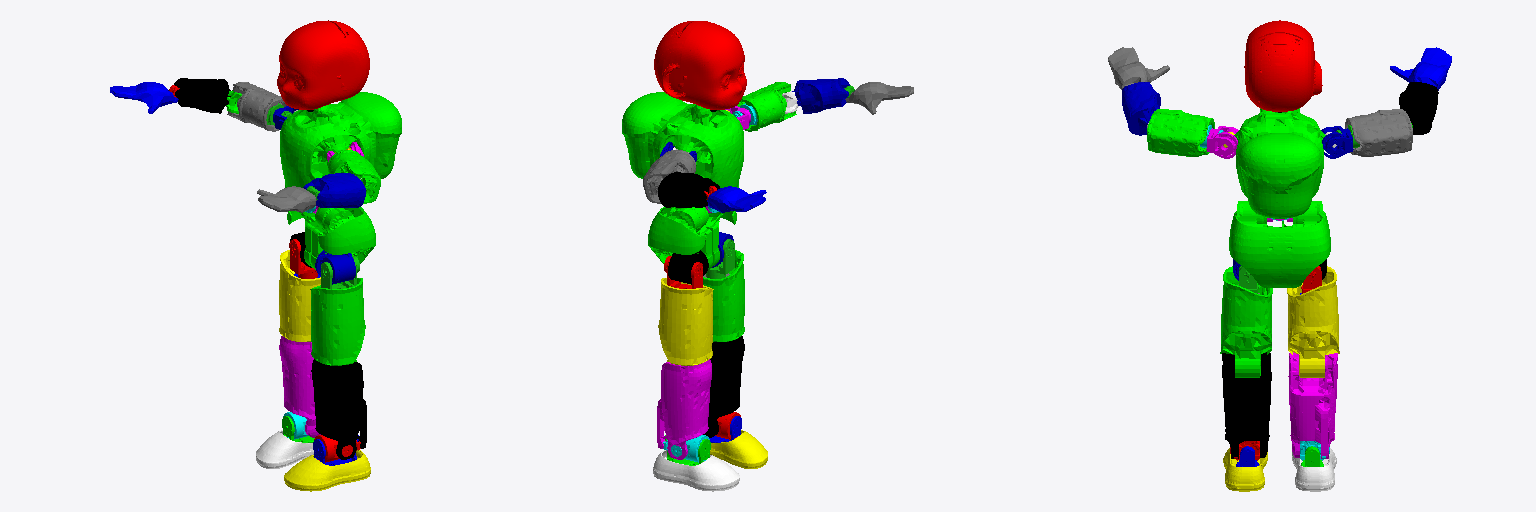
--- What the picture shows (computed from the rendered views, not written in the file) ---
The picture shows the robot from 3 angles, left to right: view 1: azimuth 30°, elevation 25°; view 2: azimuth 150°, elevation 25°; view 3: azimuth 270°, elevation 25°; orthographic projection.
Model iCub with 204 links and 203 joints (32 revolute, 171 fixed), rooted at base_link, posed joints at zero except 4 at the middle of their limits (r_shoulder_roll = 1.58, r_elbow = 1.06, l_shoulder_roll = 1.58, l_elbow = 1.06).
Links seen in each view (by area): view 1: chest, head, l_lower_leg, l_upper_leg, root_link, r_lower_leg, r_upper_leg, l_foot, l_forearm, r_forearm, r_upper_arm, r_foot (+5 smaller); view 2: chest, head, r_lower_leg, r_upper_leg, root_link, l_lower_leg, l_upper_leg, r_foot, r_forearm, l_forearm, l_upper_arm, l_foot (+5 smaller); view 3: chest, root_link, head, l_upper_leg, r_upper_leg, l_lower_leg, r_lower_leg, r_upper_arm, l_upper_arm, r_forearm, l_forearm, l_hand (+5 smaller).
Link boxes in pixels (left/top/right/bottom): chest: left=280, top=92, right=401, bottom=187; head: left=277, top=20, right=369, bottom=109; l_lower_leg: left=311, top=359, right=366, bottom=459; l_upper_leg: left=310, top=278, right=365, bottom=365; root_link: left=287, top=207, right=375, bottom=269; r_lower_leg: left=279, top=336, right=320, bottom=437; r_upper_leg: left=279, top=250, right=320, bottom=341; l_foot: left=284, top=450, right=370, bottom=491; l_forearm: left=303, top=173, right=365, bottom=207; r_forearm: left=174, top=78, right=230, bottom=113; r_upper_arm: left=227, top=82, right=286, bottom=131; r_foot: left=256, top=430, right=313, bottom=468; chest: left=622, top=92, right=743, bottom=187; head: left=654, top=21, right=746, bottom=109; r_lower_leg: left=657, top=359, right=711, bottom=459; r_upper_leg: left=658, top=278, right=713, bottom=365; root_link: left=648, top=207, right=736, bottom=269; l_lower_leg: left=703, top=336, right=744, bottom=437; l_upper_leg: left=703, top=250, right=744, bottom=341; r_foot: left=653, top=450, right=739, bottom=491; r_forearm: left=658, top=172, right=719, bottom=207; l_forearm: left=792, top=78, right=849, bottom=113; l_upper_arm: left=737, top=82, right=796, bottom=131; l_foot: left=710, top=430, right=767, bottom=468; chest: left=1234, top=108, right=1325, bottom=218; root_link: left=1229, top=201, right=1330, bottom=287; head: left=1244, top=20, right=1322, bottom=111; l_upper_leg: left=1220, top=266, right=1272, bottom=377; r_upper_leg: left=1287, top=266, right=1339, bottom=377; l_lower_leg: left=1222, top=352, right=1271, bottom=458; r_lower_leg: left=1288, top=352, right=1337, bottom=458; r_upper_arm: left=1345, top=109, right=1412, bottom=156; l_upper_arm: left=1147, top=109, right=1214, bottom=156; r_forearm: left=1399, top=82, right=1438, bottom=134; l_forearm: left=1122, top=82, right=1160, bottom=135; l_hand: left=1108, top=47, right=1169, bottom=89.
Size in the robot's own frame: 0.5414 by 0.749 by 1.08 metres.
Meshes: 39 distinct files referenced, 38 mesh visuals loaded (38 binary STL); not drawn: 1 (reference not matched to a file when rendering).

robot.urdf — iCub:
<robot name="iCub">
  <link name="root_link">
    <inertial>
      <origin xyz="0.0248821 0.000103947 -0.0440806" rpy="1.57079632679 0 -1.57079632679"/>
      <mass value="5.09143"/>
      <inertia ixx="0.0139679" ixy="-5.93488e-06" ixz="-1.55458e-05" iyy="0.0202112" iyz="-0.00170968" izz="0.0249124"/>
    </inertial>
    <visual>
      <origin xyz="-0.0364 0 0.032" rpy="1.57079632679 0 -1.57079632679"/>
      <geometry>
        <mesh filename="package://iCub/meshes/simmechanics/sim_sea_2-5_root_link_prt-binary.stl" scale="0.001 0.001 0.001"/>
      </geometry>
      <material name="green">
        <color rgba="0 1 0 1"/>
      </material>
    </visual>
    <collision>
      <origin xyz="-0.0364 0 0.032" rpy="1.57079632679 0 -1.57079632679"/>
      <geometry>
        <mesh filename="package://iCub/meshes/simmechanics/sim_sea_2-5_root_link_prt-binary.stl" scale="0.001 0.001 0.001"/>
      </geometry>
    </collision>
  </link>
  <link name="r_hip_1">
    <inertial>
      <origin xyz="-0.0005145 -0.0380753 -7.1e-05" rpy="1.57079632679 0 1.57079632679"/>
      <mass value="0.919978"/>
      <inertia ixx="0.000404268" ixy="-1.26852e-06" ixz="1.11055e-06" iyy="0.000574741" iyz="-7.69474e-07" izz="0.000580025"/>
    </inertial>
    <visual>
      <origin xyz="0.0428515000001 0.026 0.151913" rpy="1.57079632679 0 1.57079632679"/>
      <geometry>
        <mesh filename="package://iCub/meshes/simmechanics/sim_sea_2-5_r_hip_1_prt-binary.stl" scale="0.001 0.001 0.001"/>
      </geometry>
      <material name="black">
        <color rgba="0 0 0 1"/>
      </material>
    </visual>
    <collision>
      <origin xyz="0.0428515000001 0.026 0.151913" rpy="1.57079632679 0 1.57079632679"/>
      <geometry>
        <mesh filename="package://iCub/meshes/simmechanics/sim_sea_2-5_r_hip_1_prt-binary.stl" scale="0.001 0.001 0.001"/>
      </geometry>
    </collision>
  </link>
  <joint name="r_hip_pitch" type="revolute">
    <origin xyz="0.0064515 0.026 -0.119913" rpy="0 0 -3.14159265359"/>
    <axis xyz="-2.22044604925e-16 -1.0 0.0"/>
    <parent link="root_link"/>
    <child link="r_hip_1"/>
    <limit effort="55.5" lower="-0.785398163397" upper="2.33874119767" velocity="5.1"/>
    <dynamics damping="1.0" friction="0.0"/>
  </joint>
  <link name="r_hip_2">
    <inertial>
      <origin xyz="-0.0013754 3.49999999998e-06 -0.044282" rpy="1.57079632679 0 1.57079632679"/>
      <mass value="0.418361"/>
      <inertia ixx="0.000487866" ixy="-2.70231e-07" ixz="1.85338e-07" iyy="0.000286099" iyz="1.22793e-05" izz="0.000315174"/>
    </inertial>
    <visual>
      <origin xyz="0.0428514998094 0.0701 0.151913" rpy="1.57079632679 0 1.57079632679"/>
      <geometry>
        <mesh filename="package://iCub/meshes/simmechanics/sim_sea_2-5_r_hip_2_prt-binary.stl" scale="0.001 0.001 0.001"/>
      </geometry>
      <material name="red">
        <color rgba="1 0 0 1"/>
      </material>
    </visual>
    <collision>
      <origin xyz="0.0428514998094 0.0701 0.151913" rpy="1.57079632679 0 1.57079632679"/>
      <geometry>
        <mesh filename="package://iCub/meshes/simmechanics/sim_sea_2-5_r_hip_2_prt-binary.stl" scale="0.001 0.001 0.001"/>
      </geometry>
    </collision>
  </link>

  <joint name="r_hip_roll" type="revolute">
    <origin xyz="0 -0.0441 0" rpy="0 0 0"/>
    <axis xyz="-1.0 0.0 -2.22044604925e-16"/>
    <parent link="r_hip_1"/>
    <child link="r_hip_2"/>
    <!-- When using the real robot on pole, use the following value for lower limit: lower="0.261799000003794" -->
    <limit effort="37.0" lower="-0.349065850399" upper="2.09439510239" velocity="7.64"/>
    <dynamics damping="1.0" friction="0.0"/>
  </joint>
  <link name="r_hip_3">
    <inertial>
      <origin xyz="-0.000123 -0.0002823 0.008718" rpy="-1.57079632679 0 -1.57079632679"/>
      <mass value="0.126212"/>
      <inertia ixx="0.01" ixy="2.67901e-07" ixz="-4.41463e-09" iyy="0.01" iyz="3.32338e-08" izz="0.01"/>
    </inertial>
    <visual>
      <origin xyz="0.0437089998094 -0.0701 -0.226213" rpy="-1.57079632679 0 -1.57079632679"/>
      <geometry>
        <mesh filename="package://iCub/meshes/simmechanics/sim_sea_2-5_r_upper_thigh_prt-binary.stl" scale="0.001 0.001 0.001"/>
      </geometry>
      <material name="blue">
        <color rgba="0 0 1 1"/>
      </material>
    </visual>
    <collision>
      <origin xyz="0.0437089998094 -0.0701 -0.226213" rpy="-1.57079632679 0 -1.57079632679"/>
      <geometry>
        <mesh filename="package://iCub/meshes/simmechanics/sim_sea_2-5_r_upper_thigh_prt-binary.stl" scale="0.001 0.001 0.001"/>
      </geometry>
    </collision>
  </link>
  <joint name="r_leg_ft_sensor" type="fixed">
    <origin xyz="-0.0008575 0 -0.0743" rpy="3.14159265359 0 0"/>
    <parent link="r_hip_2"/>
    <child link="r_hip_3"/>
    <dynamics damping="0.1"/>
  </joint>
  <link name="r_upper_leg">
    <inertial>
      <origin xyz="0.0033999 -2.91e-05 -0.078954" rpy="1.57079632679 0 1.57079632679"/>
      <mass value="1.8035"/>
      <inertia ixx="0.00647751422999" ixy="0.000129579429588" ixz="5.48205094739e-06" iyy="0.0014593786411" iyz="-0.000136613086875" izz="0.00646720823813"/>
    </inertial>
    <visual>
      <origin xyz="0.0437089998094 0.0701 0.240813" rpy="1.57079632679 0 1.57079632679"/>
      <geometry>
        <mesh filename="package://iCub/meshes/simmechanics/sim_sea_2-5_r_thigh_prt-binary.stl" scale="0.001 0.001 0.001"/>
      </geometry>
      <material name="yellow">
        <color rgba="1 1 0 1"/>
      </material>
    </visual>
    <collision>
      <origin xyz="0.0437089998094 0.0701 0.240813" rpy="1.57079632679 0 1.57079632679"/>
      <geometry>
        <mesh filename="package://iCub/meshes/simmechanics/sim_sea_2-5_r_thigh_prt-binary.stl" scale="0.001 0.001 0.001"/>
      </geometry>
    </collision>
  </link>
  <joint name="r_hip_yaw" type="revolute">
    <origin xyz="0 0 0.0144" rpy="-3.14159265359 0 0"/>
    <axis xyz="0.0 -2.22044604925e-16 -1.0"/>
    <parent link="r_hip_3"/>
    <child link="r_upper_leg"/>
    <limit effort="37.0" lower="-1.3962634016" upper="1.3962634016" velocity="7.64"/>
    <dynamics damping="1.0" friction="0.0"/>
  </joint>
  <link name="r_upper_leg_back_contact"/>
  <joint name="r_upper_leg_back_contact_fixed_joint" type="fixed">
    <origin xyz="-0.0511999 0 0.0146" rpy="0 1.57079632679 0"/>
    <parent link="r_upper_leg"/>
    <child link="r_upper_leg_back_contact"/>
    <dynamics damping="0.1"/>
  </joint>
  <link name="r_upper_leg_dh_frame"/>
  <joint name="r_upper_leg_dh_frame_fixed_joint" type="fixed">
    <origin xyz="0 0 -0.145825" rpy="1.57079632679 0 0"/>
    <parent link="r_upper_leg"/>
    <child link="r_upper_leg_dh_frame"/>
    <dynamics damping="0.1"/>
  </joint>
  <link name="r_lower_leg">
    <inertial>
      <origin xyz="0.0012363 -0.0035131 -0.088794" rpy="1.57079632679 0 1.57079632679"/>
      <mass value="1.472"/>
      <inertia ixx="0.00423993167478" ixy="0.000228814548854" ixz="-5.55646459453e-05" iyy="0.00152095043447" iyz="-0.000264132979243" izz="0.00457358584206"/>
    </inertial>
    <visual>
      <origin xyz="0.0437089998094 0.0701000001907 0.386638" rpy="1.57079632679 0 1.57079632679"/>
      <geometry>
        <mesh filename="package://iCub/meshes/simmechanics/sim_sea_2-5_r_shank_prt-binary.stl" scale="0.001 0.001 0.001"/>
      </geometry>
      <material name="pink">
        <color rgba="1 0 1 1"/>
      </material>
    </visual>
    <collision>
      <origin xyz="0.0437089998094 0.0701000001907 0.386638" rpy="1.57079632679 0 1.57079632679"/>
      <geometry>
        <mesh filename="package://iCub/meshes/simmechanics/sim_sea_2-5_r_shank_prt-binary.stl" scale="0.001 0.001 0.001"/>
      </geometry>
    </collision>
  </link>
  <joint name="r_knee" type="revolute">
    <origin xyz="0 0 -0.145825" rpy="0 0 0"/>
    <axis xyz="-2.22044604925e-16 -1.0 0.0"/>
    <parent link="r_upper_leg"/>
    <child link="r_lower_leg"/>
    <limit effort="37.0" lower="-2.16420827247" upper="0.0698131700798" velocity="7.64"/>
    <dynamics damping="1.0" friction="0.0"/>
  </joint>
  <link name="r_lower_leg_skin_0"/>
  <joint name="r_lower_leg_skin_0_fixed_joint" type="fixed">
    <origin xyz="0.0544117 -0.031214 -0.002634" rpy="2.09173809157e-06 -1.41530676247 2.48648458622"/>
    <parent link="r_lower_leg"/>
    <child link="r_lower_leg_skin_0"/>
    <dynamics damping="0.1"/>
  </joint>
  <link name="r_lower_leg_skin_3"/>
  <joint name="r_lower_leg_skin_3_fixed_joint" type="fixed">
    <origin xyz="0.05157878 0.0304205 -0.002843" rpy="0 -1.42951054083 -2.30391484186"/>
    <parent link="r_lower_leg"/>
    <child link="r_lower_leg_skin_3"/>
    <dynamics damping="0.1"/>
  </joint>
  <link name="r_lower_leg_skin_4"/>
  <joint name="r_lower_leg_skin_4_fixed_joint" type="fixed">
    <origin xyz="0.0583103 0.0167836 0.007272" rpy="-2.98636361519e-07 -1.25636748876 -2.75892380087"/>
    <parent link="r_lower_leg"/>
    <child link="r_lower_leg_skin_4"/>
    <dynamics damping="0.1"/>
  </joint>
  <link name="r_lower_leg_skin_5"/>
  <joint name="r_lower_leg_skin_5_fixed_joint" type="fixed">
    <origin xyz="0.0636503 0.0003094 -0.001972" rpy="0 -1.38652215068 -3.14147169807"/>
    <parent link="r_lower_leg"/>
    <child link="r_lower_leg_skin_5"/>
    <dynamics damping="0.1"/>
  </joint>
  <link name="r_lower_leg_skin_6"/>
  <joint name="r_lower_leg_skin_6_fixed_joint" type="fixed">
    <origin xyz="0.05208552 0.0304434 -0.022149" rpy="-3.14158927953 -1.46785123411 0.837492889077"/>
    <parent link="r_lower_leg"/>
    <child link="r_lower_leg_skin_6"/>
    <dynamics damping="0.1"/>
  </joint>
  <link name="r_lower_leg_skin_9"/>
  <joint name="r_lower_leg_skin_9_fixed_joint" type="fixed">
    <origin xyz="0.0598214 0.0167973 -0.030962" rpy="-3.14159202356 -1.34224755325 0.379294477718"/>
    <parent link="r_lower_leg"/>
    <child link="r_lower_leg_skin_9"/>
    <dynamics damping="0.1"/>
  </joint>
  <link name="r_lower_leg_skin_10"/>
  <joint name="r_lower_leg_skin_10_fixed_joint" type="fixed">
    <origin xyz="0.0644607 0.0003424 -0.021205" rpy="3.14159265355 -1.47095803541 0.000430021675261"/>
    <parent link="r_lower_leg"/>
    <child link="r_lower_leg_skin_10"/>
    <dynamics damping="0.1"/>
  </joint>
  <link name="r_lower_leg_skin_11"/>
  <joint name="r_lower_leg_skin_11_fixed_joint" type="fixed">
    <origin xyz="0.0607108 -0.0160916 -0.030885" rpy="-3.14159218252 -1.3281180406 -0.27213836788"/>
    <parent link="r_lower_leg"/>
    <child link="r_lower_leg_skin_11"/>
    <dynamics damping="0.1"/>
  </joint>
  <link name="r_lower_leg_skin_14"/>
  <joint name="r_lower_leg_skin_14_fixed_joint" type="fixed">
    <origin xyz="0.0550477 -0.031176 -0.0219" rpy="-3.14159181885 -1.46502735635 -0.654033407167"/>
    <parent link="r_lower_leg"/>
    <child link="r_lower_leg_skin_14"/>
    <dynamics damping="0.1"/>
  </joint>
  <link name="r_lower_leg_skin_15"/>
  <joint name="r_lower_leg_skin_15_fixed_joint" type="fixed">
    <origin xyz="0.0591708 -0.0161788 0.007243" rpy="4.27484256729e-07 -1.25203633076 2.86798859471"/>
    <parent link="r_lower_leg"/>
    <child link="r_lower_leg_skin_15"/>
    <dynamics damping="0.1"/>
  </joint>
  <link name="r_lower_leg_skin_16"/>
  <joint name="r_lower_leg_skin_16_fixed_joint" type="fixed">
    <origin xyz="0.0272875 -0.050287 -0.004549" rpy="1.33075915123e-05 -1.53260853515 1.96280242835"/>
    <parent link="r_lower_leg"/>
    <child link="r_lower_leg_skin_16"/>
    <dynamics damping="0.1"/>
  </joint>
  <link name="r_lower_leg_skin_17"/>
  <joint name="r_lower_leg_skin_17_fixed_joint" type="fixed">
    <origin xyz="0.027875 -0.050312 -0.023882" rpy="-3.1415645262 -1.56366240237 -1.18022508756"/>
    <parent link="r_lower_leg"/>
    <child link="r_lower_leg_skin_17"/>
    <dynamics damping="0.1"/>
  </joint>
  <link name="r_lower_leg_skin_19"/>
  <joint name="r_lower_leg_skin_19_fixed_joint" type="fixed">
    <origin xyz="0.0357534 0.0410628 0.006065" rpy="-8.90877717426e-07 -1.43498696978 -2.15863618017"/>
    <parent link="r_lower_leg"/>
    <child link="r_lower_leg_skin_19"/>
    <dynamics damping="0.1"/>
  </joint>
  <link name="r_lower_leg_skin_20"/>
  <joint name="r_lower_leg_skin_20_fixed_joint" type="fixed">
    <origin xyz="0.0234419 0.0479908 -0.004952" rpy="-3.20556549428e-06 -1.50015513031 -1.86755092413"/>
    <parent link="r_lower_leg"/>
    <child link="r_lower_leg_skin_20"/>
    <dynamics damping="0.1"/>
  </joint>
  <link name="r_lower_leg_skin_21"/>
  <joint name="r_lower_leg_skin_21_fixed_joint" type="fixed">
    <origin xyz="0.0242704 0.0485378 -0.024277" rpy="2.29671149558e-05 -1.55545513881 -1.87411972316"/>
    <parent link="r_lower_leg"/>
    <child link="r_lower_leg_skin_21"/>
    <dynamics damping="0.1"/>
  </joint>
  <link name="r_lower_leg_skin_28"/>
  <joint name="r_lower_leg_skin_28_fixed_joint" type="fixed">
    <origin xyz="0.04087215 -0.04244 -0.032756" rpy="3.14158088865 -1.52252462169 -0.929681029763"/>
    <parent link="r_lower_leg"/>
    <child link="r_lower_leg_skin_28"/>
    <dynamics damping="0.1"/>
  </joint>
  <link name="r_lower_leg_skin_29"/>
  <joint name="r_lower_leg_skin_29_fixed_joint" type="fixed">
    <origin xyz="0.03846637 -0.043516 -0.05242" rpy="3.14158017044 -1.53429841563 -0.915436346631"/>
    <parent link="r_lower_leg"/>
    <child link="r_lower_leg_skin_29"/>
    <dynamics damping="0.1"/>
  </joint>
  <link name="r_lower_leg_skin_31"/>
  <joint name="r_lower_leg_skin_31_fixed_joint" type="fixed">
    <origin xyz="0.03914638 -0.042271 0.006327" rpy="-6.58381747139e-07 -1.4186494462 2.20853032986"/>
    <parent link="r_lower_leg"/>
    <child link="r_lower_leg_skin_31"/>
    <dynamics damping="0.1"/>
  </joint>
  <link name="r_lower_leg_skin_32"/>
  <joint name="r_lower_leg_skin_32_fixed_joint" type="fixed">
    <origin xyz="0.04598301 0.0325847 -0.080733" rpy="-3.14159014988 -1.52238289798 0.645940380887"/>
    <parent link="r_lower_leg"/>
    <child link="r_lower_leg_skin_32"/>
    <dynamics damping="0.1"/>
  </joint>
  <link name="r_lower_leg_skin_35"/>
  <joint name="r_lower_leg_skin_35_fixed_joint" type="fixed">
    <origin xyz="0.04774866 -0.031232 -0.080113" rpy="-3.14158668275 -1.51758467332 -0.541532486468"/>
    <parent link="r_lower_leg"/>
    <child link="r_lower_leg_skin_35"/>
    <dynamics damping="0.1"/>
  </joint>
  <link name="r_lower_leg_skin_36"/>
  <joint name="r_lower_leg_skin_36_fixed_joint" type="fixed">
    <origin xyz="0.05322409 -0.0156018 -0.088362" rpy="-3.14159034144 -1.51587265281 -0.20740733566"/>
    <parent link="r_lower_leg"/>
    <child link="r_lower_leg_skin_36"/>
    <dynamics damping="0.1"/>
  </joint>
  <link name="r_lower_leg_skin_37"/>
  <joint name="r_lower_leg_skin_37_fixed_joint" type="fixed">
    <origin xyz="0.0552572 0.0009644 -0.078318" rpy="-3.14158180452 -1.52318336898 0.00752450583063"/>
    <parent link="r_lower_leg"/>
    <child link="r_lower_leg_skin_37"/>
    <dynamics damping="0.1"/>
  </joint>
  <link name="r_lower_leg_skin_38"/>
  <joint name="r_lower_leg_skin_38_fixed_joint" type="fixed">
    <origin xyz="0.04880467 -0.031263 -0.060757" rpy="3.14158665199 -1.5157299554 -0.54215359959"/>
    <parent link="r_lower_leg"/>
    <child link="r_lower_leg_skin_38"/>
    <dynamics damping="0.1"/>
  </joint>
  <link name="r_lower_leg_skin_41"/>
  <joint name="r_lower_leg_skin_41_fixed_joint" type="fixed">
    <origin xyz="0.0566009 -0.0159129 -0.049854" rpy="-3.14159198825 -1.40681343597 -0.248233089413"/>
    <parent link="r_lower_leg"/>
    <child link="r_lower_leg_skin_41"/>
    <dynamics damping="0.1"/>
  </joint>
  <link name="r_lower_leg_skin_42"/>
  <joint name="r_lower_leg_skin_42_fixed_joint" type="fixed">
    <origin xyz="0.0570106 0.0007962 -0.05908" rpy="3.14158970239 -1.43524750416 0.00687943651504"/>
    <parent link="r_lower_leg"/>
    <child link="r_lower_leg_skin_42"/>
    <dynamics damping="0.1"/>
  </joint>
  <link name="r_lower_leg_skin_43"/>
  <joint name="r_lower_leg_skin_43_fixed_joint" type="fixed">
    <origin xyz="0.04712542 0.0323653 -0.061362" rpy="-3.14159136621 -1.53843038237 0.624217523667"/>
    <parent link="r_lower_leg"/>
    <child link="r_lower_leg_skin_43"/>
    <dynamics damping="0.1"/>
  </joint>
  <link name="r_lower_leg_skin_46"/>
  <joint name="r_lower_leg_skin_46_fixed_joint" type="fixed">
    <origin xyz="0.0558156 0.0172164 -0.05018" rpy="-3.14158987809 -1.42759881603 0.325607710876"/>
    <parent link="r_lower_leg"/>
    <child link="r_lower_leg_skin_46"/>
    <dynamics damping="0.1"/>
  </joint>
  <link name="r_lower_leg_skin_47"/>
  <joint name="r_lower_leg_skin_47_fixed_joint" type="fixed">
    <origin xyz="0.05264163 0.0176389 -0.08886" rpy="3.14158963519 -1.51690559406 0.262640425058"/>
    <parent link="r_lower_leg"/>
    <child link="r_lower_leg_skin_47"/>
    <dynamics damping="0.1"/>
  </joint>
  <link name="r_lower_leg_skin_49"/>
  <joint name="r_lower_leg_skin_49_fixed_joint" type="fixed">
    <origin xyz="0.04113137 0.0324385 -0.138859" rpy="-3.14158934751 -1.48996135695 0.729763592113"/>
    <parent link="r_lower_leg"/>
    <child link="r_lower_leg_skin_49"/>
    <dynamics damping="0.1"/>
  </joint>
  <link name="r_lower_leg_skin_50"/>
  <joint name="r_lower_leg_skin_50_fixed_joint" type="fixed">
    <origin xyz="0.043016947 0.0325273 -0.119469" rpy="3.14159069596 -1.49900732636 0.695784020081"/>
    <parent link="r_lower_leg"/>
    <child link="r_lower_leg_skin_50"/>
    <dynamics damping="0.1"/>
  </joint>
  <link name="r_lower_leg_skin_51"/>
  <joint name="r_lower_leg_skin_51_fixed_joint" type="fixed">
    <origin xyz="0.05141583 0.017759 -0.108206" rpy="-3.14158890179 -1.50628475717 0.272079935713"/>
    <parent link="r_lower_leg"/>
    <child link="r_lower_leg_skin_51"/>
    <dynamics damping="0.1"/>
  </joint>
  <link name="r_lower_leg_skin_52"/>
  <joint name="r_lower_leg_skin_52_fixed_joint" type="fixed">
    <origin xyz="0.05299832 0.0012664 -0.116895" rpy="-3.14159164042 -1.50318674421 0.0108717260994"/>
    <parent link="r_lower_leg"/>
    <child link="r_lower_leg_skin_52"/>
    <dynamics damping="0.1"/>
  </joint>
  <link name="r_lower_leg_skin_53"/>
  <joint name="r_lower_leg_skin_53_fixed_joint" type="fixed">
    <origin xyz="0.05207312 -0.0154339 -0.107654" rpy="3.14159063987 -1.50595307447 -0.211407322892"/>
    <parent link="r_lower_leg"/>
    <child link="r_lower_leg_skin_53"/>
    <dynamics damping="0.1"/>
  </joint>
  <link name="r_lower_leg_skin_54"/>
  <joint name="r_lower_leg_skin_54_fixed_joint" type="fixed">
    <origin xyz="0.04512708 -0.030749 -0.118787" rpy="3.14158825193 -1.49745145571 -0.575115374473"/>
    <parent link="r_lower_leg"/>
    <child link="r_lower_leg_skin_54"/>
    <dynamics damping="0.1"/>
  </joint>
  <link name="r_lower_leg_skin_55"/>
  <joint name="r_lower_leg_skin_55_fixed_joint" type="fixed">
    <origin xyz="0.043502663 -0.030489 -0.138143" rpy="3.14158906486 -1.48995787038 -0.597219943789"/>
    <parent link="r_lower_leg"/>
    <child link="r_lower_leg_skin_55"/>
    <dynamics damping="0.1"/>
  </joint>
  <link name="r_lower_leg_skin_56"/>
  <joint name="r_lower_leg_skin_56_fixed_joint" type="fixed">
    <origin xyz="0.04926839 -0.015121 -0.146218" rpy="-3.14158920404 -1.49124819828 -0.2234844764"/>
    <parent link="r_lower_leg"/>
    <child link="r_lower_leg_skin_56"/>
    <dynamics damping="0.1"/>
  </joint>
  <link name="r_lower_leg_skin_60"/>
  <joint name="r_lower_leg_skin_60_fixed_joint" type="fixed">
    <origin xyz="0.04836967 0.018056 -0.146938" rpy="-3.14159173337 -1.48985968527 0.302951871954"/>
    <parent link="r_lower_leg"/>
    <child link="r_lower_leg_skin_60"/>
    <dynamics damping="0.1"/>
  </joint>
  <link name="r_lower_leg_skin_61"/>
  <joint name="r_lower_leg_skin_61_fixed_joint" type="fixed">
    <origin xyz="0.05161952 0.0014266 -0.136169" rpy="-3.14159100925 -1.49602097086 0.0132014275205"/>
    <parent link="r_lower_leg"/>
    <child link="r_lower_leg_skin_61"/>
    <dynamics damping="0.1"/>
  </joint>
  <link name="r_ankle_1">
    <inertial>
      <origin xyz="0.0151436 -0.0008686 4.2e-05" rpy="1.57079632679 0 1.57079632679"/>
      <mass value="0.6803"/>
      <inertia ixx="0.000404618848932" ixy="7.49819286945e-07" ixz="-3.01349467691e-05" iyy="0.000448633654664" iyz="2.5726697409e-06" izz="0.000308235939139"/>
    </inertial>
    <visual>
      <origin xyz="0.0437089998094 0.0701000001907 0.587138" rpy="1.57079632679 0 1.57079632679"/>
      <geometry>
        <mesh filename="package://iCub/meshes/simmechanics/sim_sea_2-5_r_ankle_prt-binary.stl" scale="0.001 0.001 0.001"/>
      </geometry>
      <material name="cyan">
        <color rgba="0 1 1 1"/>
      </material>
    </visual>
    <collision>
      <origin xyz="0.0437089998094 0.0701000001907 0.587138" rpy="1.57079632679 0 1.57079632679"/>
      <geometry>
        <mesh filename="package://iCub/meshes/simmechanics/sim_sea_2-5_r_ankle_prt-binary.stl" scale="0.001 0.001 0.001"/>
      </geometry>
    </collision>
  </link>
  <joint name="r_ankle_pitch" type="revolute">
    <origin xyz="0 0 -0.2005" rpy="0 0 0"/>
    <axis xyz="2.22044604925e-16 1.0 0.0"/>
    <parent link="r_lower_leg"/>
    <child link="r_ankle_1"/>
    <limit effort="37.0" lower="-0.610865238198" upper="0.610865238198" velocity="7.64"/>
    <dynamics damping="1.0" friction="0.0"/>
  </joint>
  <link name="r_ankle_2">
    <inertial>
      <origin xyz="0.0007673 -8.20000000001e-06 -0.038202" rpy="1.57079632679 0 1.57079632679"/>
      <mass value="0.267485"/>
      <inertia ixx="0.01" ixy="-7.53335e-08" ixz="2.93681e-08" iyy="0.01" iyz="-4.26218e-07" izz="0.01"/>
    </inertial>
    <visual>
      <origin xyz="0.0437089996186 0.0701000001907 0.587138" rpy="1.57079632679 0 1.57079632679"/>
      <geometry>
        <mesh filename="package://iCub/meshes/simmechanics/sim_sea_2-5_r_foot_prt-binary.stl" scale="0.001 0.001 0.001"/>
      </geometry>
      <material name="green">
        <color rgba="0 1 0 1"/>
      </material>
    </visual>
    <collision>
      <origin xyz="0.0437089996186 0.0701000001907 0.587138" rpy="1.57079632679 0 1.57079632679"/>
      <geometry>
        <mesh filename="package://iCub/meshes/simmechanics/sim_sea_2-5_r_foot_prt-binary.stl" scale="0.001 0.001 0.001"/>
      </geometry>
    </collision>
  </link>
  <joint name="r_ankle_roll" type="revolute">
    <origin xyz="0 0 0" rpy="0 0 0"/>
    <axis xyz="-1.0 0.0 -2.22044604925e-16"/>
    <parent link="r_ankle_1"/>
    <child link="r_ankle_2"/>
    <limit effort="37.0" lower="-0.436332312999" upper="0.436332312999" velocity="7.64"/>
    <dynamics damping="1.0" friction="0.0"/>
  </joint>
  <link name="r_foot">
    <inertial>
      <origin xyz="0.0336001 0.0053719 -0.001147" rpy="-1.57079632679 0 -1.57079632679"/>
      <mass value="0.382866"/>
      <inertia ixx="0.00120946" ixy="3.74585e-07" ixz="-5.78759e-05" iyy="0.00141439" iyz="-7.80325e-06" izz="0.000273599"/>
    </inertial>
    <visual>
      <origin xyz="0.0472089996187 -0.0701000001907 -0.647438000286" rpy="-1.57079632679 0 -1.57079632679"/>
      <geometry>
        <mesh filename="package://iCub/meshes/simmechanics/sim_sea_2-5_r_sole_prt-binary.stl" scale="0.001 0.001 0.001"/>
      </geometry>
      <material name="white">
        <color rgba="1 1 1 1"/>
      </material>
    </visual>
    <collision>
      <origin xyz="0.03 0.005 0.014" rpy="0.0 0.0 0.0"/>
      <geometry>
        <box size="0.16 0.072 0.001"/>
      </geometry>
    </collision>
  </link>
  <joint name="r_foot_ft_sensor" type="fixed">
    <origin xyz="-0.0035 0 -0.0605" rpy="3.14159265359 0 0"/>
    <parent link="r_ankle_2"/>
    <child link="r_foot"/>
    <dynamics damping="0.1"/>
  </joint>
  <link name="r_sole"/>
  <joint name="r_sole_fixed_joint" type="fixed">
    <origin xyz="0.0035 0 0.004" rpy="-3.14159265359 0 0"/>
    <parent link="r_foot"/>
    <child link="r_sole"/>
    <dynamics damping="0.1"/>
  </joint>
  <link name="r_sole_skin_0"/>
  <joint name="r_sole_skin_0_fixed_joint" type="fixed">
    <origin xyz="0.0604767 -0.0254106 0.0075" rpy="0 0 0"/>
    <parent link="r_foot"/>
    <child link="r_sole_skin_0"/>
    <dynamics damping="0.1"/>
  </joint>
  <link name="r_sole_skin_1"/>
  <joint name="r_sole_skin_1_fixed_joint" type="fixed">
    <origin xyz="0.0788511 -0.0194404 0.0075" rpy="0 0 0"/>
    <parent link="r_foot"/>
    <child link="r_sole_skin_1"/>
    <dynamics damping="0.1"/>
  </joint>
  <link name="r_sole_skin_2"/>
  <joint name="r_sole_skin_2_fixed_joint" type="fixed">
    <origin xyz="0.0932087 -0.032368 0.0075" rpy="0 0 0"/>
    <parent link="r_foot"/>
    <child link="r_sole_skin_2"/>
    <dynamics damping="0.1"/>
  </joint>
  <link name="r_sole_skin_3"/>
  <joint name="r_sole_skin_3_fixed_joint" type="fixed">
    <origin xyz="0.1115831 -0.0263978 0.0075" rpy="0 0 0"/>
    <parent link="r_foot"/>
    <child link="r_sole_skin_3"/>
    <dynamics damping="0.1"/>
  </joint>
  <link name="r_sole_skin_4"/>
  <joint name="r_sole_skin_4_fixed_joint" type="fixed">
    <origin xyz="0.1156 -0.0075 0.0075" rpy="0 0 0"/>
    <parent link="r_foot"/>
    <child link="r_sole_skin_4"/>
    <dynamics damping="0.1"/>
  </joint>
  <link name="r_sole_skin_8"/>
  <joint name="r_sole_skin_8_fixed_joint" type="fixed">
    <origin xyz="0.1052593 0.0243254 0.0075" rpy="0 0 0"/>
    <parent link="r_foot"/>
    <child link="r_sole_skin_8"/>
    <dynamics damping="0.1"/>
  </joint>
  <link name="r_sole_skin_9"/>
  <joint name="r_sole_skin_9_fixed_joint" type="fixed">
    <origin xyz="0.0909017 0.037253 0.0075" rpy="0 0 0"/>
    <parent link="r_foot"/>
    <child link="r_sole_skin_9"/>
    <dynamics damping="0.1"/>
  </joint>
  <link name="r_sole_skin_10"/>
  <joint name="r_sole_skin_10_fixed_joint" type="fixed">
    <origin xyz="0.0725273 0.031283 0.0075" rpy="0 0 0"/>
    <parent link="r_foot"/>
    <child link="r_sole_skin_10"/>
    <dynamics damping="0.1"/>
  </joint>
  <link name="r_sole_skin_11"/>
  <joint name="r_sole_skin_11_fixed_joint" type="fixed">
    <origin xyz="0.0685104 0.012385 0.0075" rpy="0 0 0"/>
    <parent link="r_foot"/>
    <child link="r_sole_skin_11"/>
    <dynamics damping="0.1"/>
  </joint>
  <link name="r_sole_skin_12"/>
  <joint name="r_sole_skin_12_fixed_joint" type="fixed">
    <origin xyz="0.082868 -0.0005426 0.0075" rpy="0 0 0"/>
    <parent link="r_foot"/>
    <child link="r_sole_skin_12"/>
    <dynamics damping="0.1"/>
  </joint>
  <link name="r_sole_skin_13"/>
  <joint name="r_sole_skin_13_fixed_joint" type="fixed">
    <origin xyz="0.1012424 0.0054276 0.0075" rpy="0 0 0"/>
    <parent link="r_foot"/>
    <child link="r_sole_skin_13"/>
    <dynamics damping="0.1"/>
  </joint>
  <link name="r_sole_skin_14"/>
  <joint name="r_sole_skin_14_fixed_joint" type="fixed">
    <origin xyz="0.05013603 0.0064148 0.0075" rpy="0 0 0"/>
    <parent link="r_foot"/>
    <child link="r_sole_skin_14"/>
    <dynamics damping="0.1"/>
  </joint>
  <link name="r_sole_skin_15"/>
  <joint name="r_sole_skin_15_fixed_joint" type="fixed">
    <origin xyz="0.04611917 -0.012483 0.0075" rpy="0 0 0"/>
    <parent link="r_foot"/>
    <child link="r_sole_skin_15"/>
    <dynamics damping="0.1"/>
  </joint>
  <link name="r_sole_skin_17"/>
  <joint name="r_sole_skin_17_fixed_joint" type="fixed">
    <origin xyz="-0.0296855 0.033257 0.0075" rpy="0 0 0"/>
    <parent link="r_foot"/>
    <child link="r_sole_skin_17"/>
    <dynamics damping="0.1"/>
  </joint>
  <link name="r_sole_skin_18"/>
  <joint name="r_sole_skin_18_fixed_joint" type="fixed">
    <origin xyz="-0.0480599 0.027287 0.0075" rpy="0 0 0"/>
    <parent link="r_foot"/>
    <child link="r_sole_skin_18"/>
    <dynamics damping="0.1"/>
  </joint>
  <link name="r_sole_skin_19"/>
  <joint name="r_sole_skin_19_fixed_joint" type="fixed">
    <origin xyz="-0.0520767 0.0083892 0.0075" rpy="0 0 0"/>
    <parent link="r_foot"/>
    <child link="r_sole_skin_19"/>
    <dynamics damping="0.1"/>
  </joint>
  <link name="r_sole_skin_20"/>
  <joint name="r_sole_skin_20_fixed_joint" type="fixed">
    <origin xyz="-0.0377192 -0.0045384 0.0075" rpy="0 0 0"/>
    <parent link="r_foot"/>
    <child link="r_sole_skin_20"/>
    <dynamics damping="0.1"/>
  </joint>
  <link name="r_sole_skin_21"/>
  <joint name="r_sole_skin_21_fixed_joint" type="fixed">
    <origin xyz="0.0357785 0.0193424 0.0075" rpy="0 0 0"/>
    <parent link="r_foot"/>
    <child link="r_sole_skin_21"/>
    <dynamics damping="0.1"/>
  </joint>
  <link name="r_sole_skin_22"/>
  <joint name="r_sole_skin_22_fixed_joint" type="fixed">
    <origin xyz="0.0277448 -0.0184532 0.0075" rpy="0 0 0"/>
    <parent link="r_foot"/>
    <child link="r_sole_skin_22"/>
    <dynamics damping="0.1"/>
  </joint>
  <link name="r_sole_skin_24"/>
  <joint name="r_sole_skin_24_fixed_joint" type="fixed">
    <origin xyz="-0.0049872 -0.0114958 0.0075" rpy="0 0 0"/>
    <parent link="r_foot"/>
    <child link="r_sole_skin_24"/>
    <dynamics damping="0.1"/>
  </joint>
  <link name="r_sole_skin_25"/>
  <joint name="r_sole_skin_25_fixed_joint" type="fixed">
    <origin xyz="0.0133872 -0.0055256 0.0075" rpy="0 0 0"/>
    <parent link="r_foot"/>
    <child link="r_sole_skin_25"/>
    <dynamics damping="0.1"/>
  </joint>
  <link name="r_sole_skin_26"/>
  <joint name="r_sole_skin_26_fixed_joint" type="fixed">
    <origin xyz="0.0174041 0.0133722 0.0075" rpy="0 0 0"/>
    <parent link="r_foot"/>
    <child link="r_sole_skin_26"/>
    <dynamics damping="0.1"/>
  </joint>
  <link name="r_sole_skin_27"/>
  <joint name="r_sole_skin_27_fixed_joint" type="fixed">
    <origin xyz="0.0030465 0.0262998 0.0075" rpy="0 0 0"/>
    <parent link="r_foot"/>
    <child link="r_sole_skin_27"/>
    <dynamics damping="0.1"/>
  </joint>
  <link name="r_sole_skin_28"/>
  <joint name="r_sole_skin_28_fixed_joint" type="fixed">
    <origin xyz="-0.0153279 0.0203296 0.0075" rpy="0 0 0"/>
    <parent link="r_foot"/>
    <child link="r_sole_skin_28"/>
    <dynamics damping="0.1"/>
  </joint>
  <link name="r_sole_skin_29"/>
  <joint name="r_sole_skin_29_fixed_joint" type="fixed">
    <origin xyz="-0.0193448 0.0014318 0.0075" rpy="0 0 0"/>
    <parent link="r_foot"/>
    <child link="r_sole_skin_29"/>
    <dynamics damping="0.1"/>
  </joint>
  <link name="l_hip_1">
    <inertial>
      <origin xyz="-0.0005108 0.0380923 -8.3e-05" rpy="1.57079632679 0 1.57079632679"/>
      <mass value="0.919725"/>
      <inertia ixx="0.000404539" ixy="1.18502e-06" ixz="-9.64514e-07" iyy="0.000573315" iyz="-1.06028e-06" izz="0.000578982"/>
    </inertial>
    <visual>
      <origin xyz="0.0428515000001 -0.026 0.151913" rpy="1.57079632679 0 1.57079632679"/>
      <geometry>
        <mesh filename="package://iCub/meshes/simmechanics/sim_sea_2-5_l_hip_1_prt-binary.stl" scale="0.001 0.001 0.001"/>
      </geometry>
      <material name="dblue">
        <color rgba="0 0 0.8 1"/>
      </material>
    </visual>
    <collision>
      <origin xyz="0.0428515000001 -0.026 0.151913" rpy="1.57079632679 0 1.57079632679"/>
      <geometry>
        <mesh filename="package://iCub/meshes/simmechanics/sim_sea_2-5_l_hip_1_prt-binary.stl" scale="0.001 0.001 0.001"/>
      </geometry>
    </collision>
  </link>
  <joint name="l_hip_pitch" type="revolute">
    <origin xyz="0.0064515 -0.026 -0.119913" rpy="0 0 -3.14159265359"/>
    <axis xyz="-2.22044604925e-16 -1.0 0.0"/>
    <parent link="root_link"/>
    <child link="l_hip_1"/>
    <limit effort="55.5" lower="-0.785398163397" upper="2.33874119767" velocity="5.1"/>
    <dynamics damping="1.0" friction="0.0"/>
  </joint>
  <link name="l_hip_2">
    <inertial>
      <origin xyz="-0.0015762 -1.94e-05 -0.044053" rpy="1.57079632679 0 1.57079632679"/>
      <mass value="0.421106"/>
      <inertia ixx="0.000494284" ixy="1.5483e-07" ixz="-1.86308e-07" iyy="0.000288736" iyz="1.52962e-05" izz="0.000319008"/>
    </inertial>
    <visual>
      <origin xyz="0.0428514998093 -0.0701 0.151913" rpy="1.57079632679 0 1.57079632679"/>
      <geometry>
        <mesh filename="package://iCub/meshes/simmechanics/sim_sea_2-5_l_hip_2_prt-binary.stl" scale="0.001 0.001 0.001"/>
      </geometry>
      <material name="dgreen">
        <color rgba="0.1 0.8 0.1 1"/>
      </material>
    </visual>
    <collision>
      <origin xyz="0.0428514998093 -0.0701 0.151913" rpy="1.57079632679 0 1.57079632679"/>
      <geometry>
        <mesh filename="package://iCub/meshes/simmechanics/sim_sea_2-5_l_hip_2_prt-binary.stl" scale="0.001 0.001 0.001"/>
      </geometry>
    </collision>
  </link>
  <joint name="l_hip_roll" type="revolute">
    <origin xyz="0 0.0441 0" rpy="0 0 0"/>
    <axis xyz="1.0 0.0 2.22044604925e-16"/>
    <parent link="l_hip_1"/>
    <child link="l_hip_2"/>
    <!-- When using the real robot on pole, use the following value for lower limit: lower="0.261799000003794" -->
    <limit effort="37.0" lower="-0.349065850399" upper="2.09439510239" velocity="7.64"/>
    <dynamics damping="1.0" friction="0.0"/>
  </joint>
  <link name="l_hip_3">
    <inertial>
      <origin xyz="-0.000123 -0.0002823 0.008718" rpy="-1.57079632679 0 -1.57079632679"/>
      <mass value="0.126212"/>
      <inertia ixx="0.01" ixy="2.67901e-07" ixz="-4.41463e-09" iyy="0.01" iyz="3.32338e-08" izz="0.01"/>
    </inertial>
    <visual>
      <origin xyz="0.0437089998093 0.0701 -0.226213" rpy="-1.57079632679 0 -1.57079632679"/>
      <geometry>
        <mesh filename="package://iCub/meshes/simmechanics/sim_sea_2-5_l_upper_thigh_prt-binary.stl" scale="0.001 0.001 0.001"/>
      </geometry>
      <material name="gray">
        <color rgba="0.5 0.5 0.5 1"/>
      </material>
    </visual>
    <collision>
      <origin xyz="0.0437089998093 0.0701 -0.226213" rpy="-1.57079632679 0 -1.57079632679"/>
      <geometry>
        <mesh filename="package://iCub/meshes/simmechanics/sim_sea_2-5_l_upper_thigh_prt-binary.stl" scale="0.001 0.001 0.001"/>
      </geometry>
    </collision>
  </link>
  <joint name="l_leg_ft_sensor" type="fixed">
    <origin xyz="-0.0008575 0 -0.0743" rpy="3.14159265359 0 0"/>
    <parent link="l_hip_2"/>
    <child link="l_hip_3"/>
    <dynamics damping="0.1"/>
  </joint>
  <link name="l_upper_leg">
    <inertial>
      <origin xyz="0.0033868 0.0001018 -0.078916" rpy="1.57079632679 0 1.57079632679"/>
      <mass value="1.8084"/>
      <inertia ixx="0.00648512673084" ixy="-0.00012421121424" ixz="-3.97399421479e-06" iyy="0.00146250529833" iyz="-0.00013681806888" izz="0.00647619242046"/>
    </inertial>
    <visual>
      <origin xyz="0.0437089998093 -0.0701 0.240813" rpy="1.57079632679 0 1.57079632679"/>
      <geometry>
        <mesh filename="package://iCub/meshes/simmechanics/sim_sea_2-5_l_thigh_prt-binary.stl" scale="0.001 0.001 0.001"/>
      </geometry>
      <material name="green">
        <color rgba="0 1 0 1"/>
      </material>
    </visual>
    <collision>
      <origin xyz="0.0437089998093 -0.0701 0.240813" rpy="1.57079632679 0 1.57079632679"/>
      <geometry>
        <mesh filename="package://iCub/meshes/simmechanics/sim_sea_2-5_l_thigh_prt-binary.stl" scale="0.001 0.001 0.001"/>
      </geometry>
    </collision>
  </link>
  <joint name="l_hip_yaw" type="revolute">
    <origin xyz="0 0 0.0144" rpy="-3.14159265359 0 0"/>
    <axis xyz="0.0 2.22044604925e-16 1.0"/>
    <parent link="l_hip_3"/>
    <child link="l_upper_leg"/>
    <limit effort="37.0" lower="-1.3962634016" upper="1.3962634016" velocity="7.64"/>
    <dynamics damping="1.0" friction="0.0"/>
  </joint>
  <link name="l_upper_leg_back_contact"/>
  <joint name="l_upper_leg_back_contact_fixed_joint" type="fixed">
    <origin xyz="-0.0512567 0 0.0146" rpy="0 1.57079632679 0"/>
    <parent link="l_upper_leg"/>
    <child link="l_upper_leg_back_contact"/>
    <dynamics damping="0.1"/>
  </joint>
  <link name="l_upper_leg_dh_frame"/>
  <joint name="l_upper_leg_dh_frame_fixed_joint" type="fixed">
    <origin xyz="0 0 -0.145825" rpy="1.57079632679 0 0"/>
    <parent link="l_upper_leg"/>
    <child link="l_upper_leg_dh_frame"/>
    <dynamics damping="0.1"/>
  </joint>
  <link name="l_lower_leg">
    <inertial>
      <origin xyz="0.0009997 0.0034969 -0.088567" rpy="1.57079632679 0 1.57079632679"/>
      <mass value="1.4724"/>
      <inertia ixx="0.00423698606499" ixy="-0.000239615181423" ixz="6.76166218238e-05" iyy="0.00152221313636" iyz="-0.00023314283575" izz="0.00457007183207"/>
    </inertial>
    <visual>
      <origin xyz="0.0437089998093 -0.0701000001908 0.386638" rpy="1.57079632679 0 1.57079632679"/>
      <geometry>
        <mesh filename="package://iCub/meshes/simmechanics/sim_sea_2-5_l_shank_prt-binary.stl" scale="0.001 0.001 0.001"/>
      </geometry>
      <material name="black">
        <color rgba="0 0 0 1"/>
      </material>
    </visual>
    <collision>
      <origin xyz="0.0437089998093 -0.0701000001908 0.386638" rpy="1.57079632679 0 1.57079632679"/>
      <geometry>
        <mesh filename="package://iCub/meshes/simmechanics/sim_sea_2-5_l_shank_prt-binary.stl" scale="0.001 0.001 0.001"/>
      </geometry>
    </collision>
  </link>
  <joint name="l_knee" type="revolute">
    <origin xyz="0 0 -0.145825" rpy="0 0 0"/>
    <axis xyz="-2.22044604925e-16 -1.0 0.0"/>
    <parent link="l_upper_leg"/>
    <child link="l_lower_leg"/>
    <limit effort="37.0" lower="-2.16420827247" upper="0.0698131700798" velocity="7.64"/>
    <dynamics damping="1.0" friction="0.0"/>
  </joint>
  <link name="l_ankle_1">
    <inertial>
      <origin xyz="0.015153 0.0009021 4.2e-05" rpy="1.57079632679 0 1.57079632679"/>
      <mass value="0.6798"/>
      <inertia ixx="0.000404474297345" ixy="-1.13226038781e-06" ixz="3.04665105776e-05" iyy="0.00044788735407" iyz="2.57265834141e-06" izz="0.000307603045377"/>
    </inertial>
    <visual>
      <origin xyz="0.0437089998093 -0.0701000001908 0.587138" rpy="1.57079632679 0 1.57079632679"/>
      <geometry>
        <mesh filename="package://iCub/meshes/simmechanics/sim_sea_2-5_l_ankle_prt-binary.stl" scale="0.001 0.001 0.001"/>
      </geometry>
      <material name="red">
        <color rgba="1 0 0 1"/>
      </material>
    </visual>
    <collision>
      <origin xyz="0.0437089998093 -0.0701000001908 0.587138" rpy="1.57079632679 0 1.57079632679"/>
      <geometry>
        <mesh filename="package://iCub/meshes/simmechanics/sim_sea_2-5_l_ankle_prt-binary.stl" scale="0.001 0.001 0.001"/>
      </geometry>
    </collision>
  </link>
  <joint name="l_ankle_pitch" type="revolute">
    <origin xyz="0 0 -0.2005" rpy="0 0 0"/>
    <axis xyz="2.22044604925e-16 1.0 0.0"/>
    <parent link="l_lower_leg"/>
    <child link="l_ankle_1"/>
    <limit effort="37.0" lower="-0.610865238198" upper="0.610865238198" velocity="7.64"/>
    <dynamics damping="1.0" friction="0.0"/>
  </joint>
  <link name="l_ankle_2">
    <inertial>
      <origin xyz="0.0007673 -8.2e-06 -0.038202" rpy="1.57079632679 0 1.57079632679"/>
      <mass value="0.267485"/>
      <inertia ixx="0.01" ixy="-7.53335e-08" ixz="2.93681e-08" iyy="0.01" iyz="-4.26218e-07" izz="0.01"/>
    </inertial>
    <visual>
      <origin xyz="0.0437089996186 -0.0701000001908 0.587138" rpy="1.57079632679 0 1.57079632679"/>
      <geometry>
        <mesh filename="package://iCub/meshes/simmechanics/sim_sea_2-5_l_foot_prt-binary.stl" scale="0.001 0.001 0.001"/>
      </geometry>
      <material name="blue">
        <color rgba="0 0 1 1"/>
      </material>
    </visual>
    <collision>
      <origin xyz="0.0437089996186 -0.0701000001908 0.587138" rpy="1.57079632679 0 1.57079632679"/>
      <geometry>
        <mesh filename="package://iCub/meshes/simmechanics/sim_sea_2-5_l_foot_prt-binary.stl" scale="0.001 0.001 0.001"/>
      </geometry>
    </collision>
  </link>
  <joint name="l_ankle_roll" type="revolute">
    <origin xyz="0 0 0" rpy="0 0 0"/>
    <axis xyz="1.0 0.0 2.22044604925e-16"/>
    <parent link="l_ankle_1"/>
    <child link="l_ankle_2"/>
    <limit effort="37.0" lower="-0.436332312999" upper="0.436332312999" velocity="7.64"/>
    <dynamics damping="1.0" friction="0.0"/>
  </joint>
  <link name="l_foot">
    <inertial>
      <origin xyz="0.0336668 -0.0053736 -0.001164" rpy="-1.57079632679 0 -1.57079632679"/>
      <mass value="0.382968"/>
      <inertia ixx="0.00121242" ixy="-3.69533e-07" ixz="5.79273e-05" iyy="0.00141712" iyz="-7.64972e-06" izz="0.000273846"/>
    </inertial>
    <visual>
      <origin xyz="0.0472089996186 0.0701000001908 -0.647438000286" rpy="-1.57079632679 0 -1.57079632679"/>
      <geometry>
        <mesh filename="package://iCub/meshes/simmechanics/sim_sea_2-5_l_sole_prt-binary.stl" scale="0.001 0.001 0.001"/>
      </geometry>
      <material name="yellow">
        <color rgba="1 1 0 1"/>
      </material>
    </visual>
    <collision>
      <origin xyz="0.03 -0.005 0.014" rpy="0.0 0.0 0.0"/>
      <geometry>
        <box size="0.16 0.072 0.001"/>
      </geometry>
    </collision>
  </link>
  <joint name="l_foot_ft_sensor" type="fixed">
    <origin xyz="-0.0035 0 -0.0605" rpy="3.14159265359 0 0"/>
    <parent link="l_ankle_2"/>
    <child link="l_foot"/>
    <dynamics damping="0.1"/>
  </joint>
  <link name="l_sole"/>
  <joint name="l_sole_fixed_joint" type="fixed">
    <origin xyz="0.0035 0 0.004" rpy="-3.14159265359 0 0"/>
    <parent link="l_foot"/>
    <child link="l_sole"/>
    <dynamics damping="0.1"/>
  </joint>
  <link name="l_sole_skin_0"/>
  <joint name="l_sole_skin_0_fixed_joint" type="fixed">
    <origin xyz="0.0932087 0.032368 0.0075" rpy="0 0 0"/>
    <parent link="l_foot"/>
    <child link="l_sole_skin_0"/>
    <dynamics damping="0.1"/>
  </joint>
  <link name="l_sole_skin_1"/>
  <joint name="l_sole_skin_1_fixed_joint" type="fixed">
    <origin xyz="0.0788511 0.0194399 0.0075" rpy="0 0 0"/>
    <parent link="l_foot"/>
    <child link="l_sole_skin_1"/>
    <dynamics damping="0.1"/>
  </joint>
  <link name="l_sole_skin_2"/>
  <joint name="l_sole_skin_2_fixed_joint" type="fixed">
    <origin xyz="0.0604767 0.0254106 0.0075" rpy="0 0 0"/>
    <parent link="l_foot"/>
    <child link="l_sole_skin_2"/>
    <dynamics damping="0.1"/>
  </joint>
  <link name="l_sole_skin_3"/>
  <joint name="l_sole_skin_3_fixed_joint" type="fixed">
    <origin xyz="0.04611917 0.0124825 0.0075" rpy="0 0 0"/>
    <parent link="l_foot"/>
    <child link="l_sole_skin_3"/>
    <dynamics damping="0.1"/>
  </joint>
  <link name="l_sole_skin_4"/>
  <joint name="l_sole_skin_4_fixed_joint" type="fixed">
    <origin xyz="0.05013603 -0.0064148 0.0075" rpy="0 0 0"/>
    <parent link="l_foot"/>
    <child link="l_sole_skin_4"/>
    <dynamics damping="0.1"/>
  </joint>
  <link name="l_sole_skin_8"/>
  <joint name="l_sole_skin_8_fixed_joint" type="fixed">
    <origin xyz="0.0725273 -0.031283 0.0075" rpy="0 0 0"/>
    <parent link="l_foot"/>
    <child link="l_sole_skin_8"/>
    <dynamics damping="0.1"/>
  </joint>
  <link name="l_sole_skin_9"/>
  <joint name="l_sole_skin_9_fixed_joint" type="fixed">
    <origin xyz="0.0909017 -0.037254 0.0075" rpy="0 0 0"/>
    <parent link="l_foot"/>
    <child link="l_sole_skin_9"/>
    <dynamics damping="0.1"/>
  </joint>
  <link name="l_sole_skin_10"/>
  <joint name="l_sole_skin_10_fixed_joint" type="fixed">
    <origin xyz="0.1052593 -0.0243254 0.0075" rpy="0 0 0"/>
    <parent link="l_foot"/>
    <child link="l_sole_skin_10"/>
    <dynamics damping="0.1"/>
  </joint>
  <link name="l_sole_skin_11"/>
  <joint name="l_sole_skin_11_fixed_joint" type="fixed">
    <origin xyz="0.1012424 -0.0054281 0.0075" rpy="0 0 0"/>
    <parent link="l_foot"/>
    <child link="l_sole_skin_11"/>
    <dynamics damping="0.1"/>
  </joint>
  <link name="l_sole_skin_12"/>
  <joint name="l_sole_skin_12_fixed_joint" type="fixed">
    <origin xyz="0.082868 0.0005426 0.0075" rpy="0 0 0"/>
    <parent link="l_foot"/>
    <child link="l_sole_skin_12"/>
    <dynamics damping="0.1"/>
  </joint>
  <link name="l_sole_skin_13"/>
  <joint name="l_sole_skin_13_fixed_joint" type="fixed">
    <origin xyz="0.0685104 -0.0123855 0.0075" rpy="0 0 0"/>
    <parent link="l_foot"/>
    <child link="l_sole_skin_13"/>
    <dynamics damping="0.1"/>
  </joint>
  <link name="l_sole_skin_14"/>
  <joint name="l_sole_skin_14_fixed_joint" type="fixed">
    <origin xyz="0.1156 0.0074995 0.0075" rpy="0 0 0"/>
    <parent link="l_foot"/>
    <child link="l_sole_skin_14"/>
    <dynamics damping="0.1"/>
  </joint>
  <link name="l_sole_skin_15"/>
  <joint name="l_sole_skin_15_fixed_joint" type="fixed">
    <origin xyz="0.1115831 0.0263973 0.0075" rpy="0 0 0"/>
    <parent link="l_foot"/>
    <child link="l_sole_skin_15"/>
    <dynamics damping="0.1"/>
  </joint>
  <link name="l_sole_skin_17"/>
  <joint name="l_sole_skin_17_fixed_joint" type="fixed">
    <origin xyz="-0.0377192 0.0045384 0.0075" rpy="0 0 0"/>
    <parent link="l_foot"/>
    <child link="l_sole_skin_17"/>
    <dynamics damping="0.1"/>
  </joint>
  <link name="l_sole_skin_18"/>
  <joint name="l_sole_skin_18_fixed_joint" type="fixed">
    <origin xyz="-0.0520767 -0.0083897 0.0075" rpy="0 0 0"/>
    <parent link="l_foot"/>
    <child link="l_sole_skin_18"/>
    <dynamics damping="0.1"/>
  </joint>
  <link name="l_sole_skin_19"/>
  <joint name="l_sole_skin_19_fixed_joint" type="fixed">
    <origin xyz="-0.0480599 -0.027287 0.0075" rpy="0 0 0"/>
    <parent link="l_foot"/>
    <child link="l_sole_skin_19"/>
    <dynamics damping="0.1"/>
  </joint>
  <link name="l_sole_skin_20"/>
  <joint name="l_sole_skin_20_fixed_joint" type="fixed">
    <origin xyz="-0.0296855 -0.033258 0.0075" rpy="0 0 0"/>
    <parent link="l_foot"/>
    <child link="l_sole_skin_20"/>
    <dynamics damping="0.1"/>
  </joint>
  <link name="l_sole_skin_21"/>
  <joint name="l_sole_skin_21_fixed_joint" type="fixed">
    <origin xyz="0.0277448 0.0184532 0.0075" rpy="0 0 0"/>
    <parent link="l_foot"/>
    <child link="l_sole_skin_21"/>
    <dynamics damping="0.1"/>
  </joint>
  <link name="l_sole_skin_22"/>
  <joint name="l_sole_skin_22_fixed_joint" type="fixed">
    <origin xyz="0.0357785 -0.0193429 0.0075" rpy="0 0 0"/>
    <parent link="l_foot"/>
    <child link="l_sole_skin_22"/>
    <dynamics damping="0.1"/>
  </joint>
  <link name="l_sole_skin_24"/>
  <joint name="l_sole_skin_24_fixed_joint" type="fixed">
    <origin xyz="0.0030465 -0.0263003 0.0075" rpy="0 0 0"/>
    <parent link="l_foot"/>
    <child link="l_sole_skin_24"/>
    <dynamics damping="0.1"/>
  </joint>
  <link name="l_sole_skin_25"/>
  <joint name="l_sole_skin_25_fixed_joint" type="fixed">
    <origin xyz="0.0174041 -0.0133722 0.0075" rpy="0 0 0"/>
    <parent link="l_foot"/>
    <child link="l_sole_skin_25"/>
    <dynamics damping="0.1"/>
  </joint>
  <link name="l_sole_skin_26"/>
  <joint name="l_sole_skin_26_fixed_joint" type="fixed">
    <origin xyz="0.0133872 0.0055251 0.0075" rpy="0 0 0"/>
    <parent link="l_foot"/>
    <child link="l_sole_skin_26"/>
    <dynamics damping="0.1"/>
  </joint>
  <link name="l_sole_skin_27"/>
  <joint name="l_sole_skin_27_fixed_joint" type="fixed">
    <origin xyz="-0.0049872 0.0114958 0.0075" rpy="0 0 0"/>
    <parent link="l_foot"/>
    <child link="l_sole_skin_27"/>
    <dynamics damping="0.1"/>
  </joint>
  <link name="l_sole_skin_28"/>
  <joint name="l_sole_skin_28_fixed_joint" type="fixed">
    <origin xyz="-0.0193448 -0.0014323 0.0075" rpy="0 0 0"/>
    <parent link="l_foot"/>
    <child link="l_sole_skin_28"/>
    <dynamics damping="0.1"/>
  </joint>
  <link name="l_sole_skin_29"/>
  <joint name="l_sole_skin_29_fixed_joint" type="fixed">
    <origin xyz="-0.0153279 -0.0203296 0.0075" rpy="0 0 0"/>
    <parent link="l_foot"/>
    <child link="l_sole_skin_29"/>
    <dynamics damping="0.1"/>
  </joint>
  <link name="torso_1">
    <inertial>
      <origin xyz="0.0270921359 0.02914798 -0.0004398" rpy="0 0 0"/>
      <mass value="0.67144"/>
      <inertia ixx="0.00040911" ixy="-1.04522e-06" ixz="-1.02516e-06" iyy="0.000384141" iyz="6.50708e-06" izz="0.000299445"/>
    </inertial>
    <visual>
      <origin xyz="0.0270462998093 0.032 0.0364" rpy="0 0 0"/>
      <geometry>
        <mesh filename="package://iCub/meshes/simmechanics/sim_sea_2-5_lap_belt_1_prt-binary.stl" scale="0.001 0.001 0.001"/>
      </geometry>
      <material name="pink">
        <color rgba="1 0 1 1"/>
      </material>
    </visual>
    <collision>
      <origin xyz="0.0270462998093 0.032 0.0364" rpy="0 0 0"/>
      <geometry>
        <mesh filename="package://iCub/meshes/simmechanics/sim_sea_2-5_lap_belt_1_prt-binary.stl" scale="0.001 0.001 0.001"/>
      </geometry>
    </collision>
  </link>
  <joint name="torso_pitch" type="revolute">
    <origin xyz="0 0.0270463 0" rpy="1.57079632679 0 -1.57079632679"/>
    <axis xyz="1.0 0.0 0.0"/>
    <parent link="root_link"/>
    <child link="torso_1"/>
    <limit effort="50000" lower="-0.349065850399" upper="1.2217304764" velocity="50000"/>
    <dynamics damping="1.0" friction="0.0"/>
  </joint>
  <link name="torso_2">
    <inertial>
      <origin xyz="-0.000113507809265 0.0361525 0.0570963" rpy="0 0 0"/>
      <mass value="0.425685"/>
      <inertia ixx="0.000829234" ixy="2.37006e-08" ixz="9.25231e-08" iyy="0.000436517" iyz="-1.74814e-07" izz="0.000604802"/>
    </inertial>
    <visual>
      <origin xyz="0 0.1433 0.0386531" rpy="0 0 0"/>
      <geometry>
        <mesh filename="package://iCub/meshes/simmechanics/sim_sea_2-5_lap_belt_2_prt-binary.stl" scale="0.001 0.001 0.001"/>
      </geometry>
      <material name="cyan">
        <color rgba="0 1 1 1"/>
      </material>
    </visual>
    <collision>
      <origin xyz="0 0.1433 0.0386531" rpy="0 0 0"/>
      <geometry>
        <mesh filename="package://iCub/meshes/simmechanics/sim_sea_2-5_lap_belt_2_prt-binary.stl" scale="0.001 0.001 0.001"/>
      </geometry>
    </collision>
  </link>
  <joint name="torso_roll" type="revolute">
    <origin xyz="0.0270462998093 0.032 -0.0573446" rpy="0 0 0"/>
    <axis xyz="0.0 0.0 -1.0"/>
    <parent link="torso_1"/>
    <child link="torso_2"/>
    <limit effort="50000" lower="-0.523598775598" upper="0.523598775598" velocity="50000"/>
    <dynamics damping="1.0" friction="0.0"/>
  </joint>
  <link name="chest">
    <inertial>
      <origin xyz="0.000188619190735 0.073091 -0.0472381" rpy="0 0 0"/>
      <mass value="7.638"/>
      <inertia ixx="0.0430324878618" ixy="2.91075388804e-05" ixz="0.000181985229949" iyy="0.0440835725548" iyz="-0.000429106409108" izz="0.0260563249911"/>
    </inertial>
    <visual>
      <origin xyz="0 0.0928 -0.024189" rpy="0 0 0"/>
      <geometry>
        <mesh filename="package://iCub/meshes/simmechanics/sim_sea_2-5_chest_bb_prt-binary.stl" scale="0.001 0.001 0.001"/>
      </geometry>
      <material name="green">
        <color rgba="0 1 0 1"/>
      </material>
    </visual>
    <collision>
      <origin xyz="0 0.0928 -0.024189" rpy="0 0 0"/>
      <geometry>
        <mesh filename="package://iCub/meshes/simmechanics/sim_sea_2-5_chest_bb_prt-binary.stl" scale="0.001 0.001 0.001"/>
      </geometry>
    </collision>
  </link>
  <joint name="torso_yaw" type="revolute">
    <origin xyz="0 0.05 0.0628421" rpy="0 0 0"/>
    <axis xyz="0.0 -1.0 0.0"/>
    <parent link="torso_2"/>
    <child link="chest"/>
    <limit effort="50000" lower="-0.872664625997" upper="0.872664625997" velocity="50000"/>
    <dynamics damping="1.0" friction="0.0"/>
  </joint>
  <link name="r_shoulder_1">
    <inertial>
      <origin xyz="-0.0122656014133 3.2e-05 -0.00321064290449" rpy="0 0 0"/>
      <mass value="0.114862"/>
      <inertia ixx="0.01" ixy="-1.65173e-08" ixz="-3.55626e-06" iyy="0.01" iyz="-6.13337e-08" izz="0.01"/>
    </inertial>
    <visual>
      <origin xyz="0.0990079253076 0 -0.0265292487558" rpy="0 0 0"/>
      <geometry>
        <mesh filename="package://iCub/meshes/simmechanics/sim_sea_2-5_r_shoulder_1_prt-binary.stl" scale="0.001 0.001 0.001"/>
      </geometry>
      <material name="white">
        <color rgba="1 1 1 1"/>
      </material>
    </visual>
    <collision>
      <origin xyz="0.0990079253076 0 -0.0265292487558" rpy="0 0 0"/>
      <geometry>
        <mesh filename="package://iCub/meshes/simmechanics/sim_sea_2-5_r_shoulder_1_prt-binary.stl" scale="0.001 0.001 0.001"/>
      </geometry>
    </collision>
  </link>
  <joint name="r_shoulder_pitch" type="revolute">
    <origin xyz="-0.120015999809 0.0928 0.0079693" rpy="0 -0.523598883792 3.14159265359"/>
    <axis xyz="-0.965925926173 0.0 0.258819275525"/>
    <parent link="chest"/>
    <child link="r_shoulder_1"/>
    <limit effort="50000" lower="-1.66678943565" upper="0.174532925199" velocity="50000"/>
    <dynamics damping="1.0" friction="0.0"/>
  </joint>
  <link name="r_shoulder_2">
    <inertial>
      <origin xyz="-0.0214141709438 0.000271725272551 -0.0194402344535" rpy="0 0 0"/>
      <mass value="0.238162"/>
      <inertia ixx="0.01" ixy="-1.12091e-07" ixz="1.02574e-05" iyy="0.01" iyz="1.19785e-06" izz="0.01"/>
    </inertial>
    <visual>
      <origin xyz="0.106587808568 2.31914715418e-07 -0.0407392121175" rpy="0 0 0"/>
      <geometry>
        <mesh filename="package://iCub/meshes/simmechanics/sim_sea_2-5_r_shoulder_2_prt-binary.stl" scale="0.001 0.001 0.001"/>
      </geometry>
      <material name="dblue">
        <color rgba="0 0 0.8 1"/>
      </material>
    </visual>
    <collision>
      <origin xyz="0.106587808568 2.31914715418e-07 -0.0407392121175" rpy="0 0 0"/>
      <geometry>
        <mesh filename="package://iCub/meshes/simmechanics/sim_sea_2-5_r_shoulder_2_prt-binary.stl" scale="0.001 0.001 0.001"/>
      </geometry>
    </collision>
  </link>
  <joint name="r_shoulder_roll" type="revolute">
    <origin xyz="-0.00758046573227 0 0.0142102463639" rpy="-0.270597611583 -0.252680154648 -1.50155680035"/>
    <axis xyz="-0.258819 -2.77555756156e-17 -0.965926"/>
    <parent link="r_shoulder_1"/>
    <child link="r_shoulder_2"/>
    <limit effort="50000" lower="0.35" upper="2.80648943721" velocity="50000"/>
    <dynamics damping="1.0" friction="0.0"/>
  </joint>
  <link name="r_shoulder_3">
    <inertial>
      <origin xyz="-0.0267620766871 -6.99999999998e-06 0.0146999207713" rpy="0 0 0"/>
      <mass value="0.35913"/>
      <inertia ixx="0.01" ixy="3.60361e-07" ixz="4.94445e-05" iyy="0.01" iyz="2.65919e-07" izz="0.01"/>
    </inertial>
    <visual>
      <origin xyz="0.131933879164 0 -0.0353515667647" rpy="0 0 0"/>
      <geometry>
        <mesh filename="package://iCub/meshes/simmechanics/sim_sea_2-5_r_upper_arm_prt-binary.stl" scale="0.001 0.001 0.001"/>
      </geometry>
      <material name="dgreen">
        <color rgba="0.1 0.8 0.1 1"/>
      </material>
    </visual>
    <collision>
      <origin xyz="0.131933879164 0 -0.0353515667647" rpy="0 0 0"/>
      <geometry>
        <mesh filename="package://iCub/meshes/simmechanics/sim_sea_2-5_r_upper_arm_prt-binary.stl" scale="0.001 0.001 0.001"/>
      </geometry>
    </collision>
  </link>
  <joint name="r_shoulder_yaw" type="revolute">
    <origin xyz="-0.0253460713232 2.32750427306e-07 -0.00538764806457" rpy="-0.252689546175 0.0085186183214 0.067039889142"/>
    <axis xyz="0.965925843882 -2.22044604925e-16 -0.258818979447"/>
    <parent link="r_shoulder_2"/>
    <child link="r_shoulder_3"/>
    <limit effort="50000" lower="-0.645771823238" upper="1.3962634016" velocity="50000"/>
    <dynamics damping="1.0" friction="0.0"/>
  </joint>
  <link name="r_upper_arm">
    <inertial>
      <origin xyz="-0.006087 0.000126 0.0293121" rpy="0 1.30899700697 0"/>
      <mass value="0.745104"/>
      <inertia ixx="0.000509527" ixy="1.19292e-06" ixz="-1.17426e-05" iyy="0.000668487" iyz="1.13363e-06" izz="0.000599254"/>
    </inertial>
    <visual>
      <origin xyz="-0.015 0 -0.1933" rpy="0 1.30899700697 0"/>
      <geometry>
        <mesh filename="package://iCub/meshes/simmechanics/sim_sea_2-5_r_elbow_prt-binary.stl" scale="0.001 0.001 0.001"/>
      </geometry>
      <material name="gray">
        <color rgba="0.5 0.5 0.5 1"/>
      </material>
    </visual>
    <collision>
      <origin xyz="-0.015 0 -0.1933" rpy="0 1.30899700697 0"/>
      <geometry>
        <mesh filename="package://iCub/meshes/simmechanics/sim_sea_2-5_r_elbow_prt-binary.stl" scale="0.001 0.001 0.001"/>
      </geometry>
    </collision>
  </link>
  <joint name="r_arm_ft_sensor" type="fixed">
    <origin xyz="-0.0508973017665 0 0.0291670296206" rpy="0 -1.30899700697 0"/>
    <parent link="r_shoulder_3"/>
    <child link="r_upper_arm"/>
    <dynamics damping="0.1"/>
  </joint>
  <link name="r_elbow_1">
    <inertial>
      <origin xyz="-0.00673912932843 0.0188019 -0.00465769236154" rpy="0 0 0"/>
      <mass value="0.267903"/>
      <inertia ixx="0.01" ixy="7.36974e-06" ixz="-1.04536e-05" iyy="0.01" iyz="3.92498e-06" izz="0.01"/>
    </inertial>
    <visual>
      <origin xyz="0.259390463317 0.0224999 -0.0850325886962" rpy="0 0 0"/>
      <geometry>
        <mesh filename="package://iCub/meshes/simmechanics/sim_sea_2-5_r_elbow_prosup_prt-binary.stl" scale="0.001 0.001 0.001"/>
      </geometry>
      <material name="green">
        <color rgba="0 1 0 1"/>
      </material>
    </visual>
    <collision>
      <origin xyz="0.259390463317 0.0224999 -0.0850325886962" rpy="0 0 0"/>
      <geometry>
        <mesh filename="package://iCub/meshes/simmechanics/sim_sea_2-5_r_elbow_prosup_prt-binary.stl" scale="0.001 0.001 0.001"/>
      </geometry>
    </collision>
  </link>
  <joint name="r_elbow" type="revolute">
    <origin xyz="0 -0.0224999 0.07926" rpy="0 1.30899700697 0"/>
    <axis xyz="2.22044604925e-16 1.0 0.0"/>
    <parent link="r_upper_arm"/>
    <child link="r_elbow_1"/>
    <limit effort="50000" lower="0.261799387799" upper="1.85004900711" velocity="50000"/>
    <dynamics damping="1.0" friction="0.0"/>
  </joint>
  <link name="r_forearm">
    <inertial>
      <origin xyz="-0.0404391133886 -0.000328 0.00532733448387" rpy="0 0 0"/>
      <mass value="0.6347"/>
      <inertia ixx="0.000370044" ixy="-1.65419e-06" ixz="0.00010538" iyy="0.000672279" iyz="1.1456e-06" izz="0.000553637"/>
    </inertial>
    <visual>
      <origin xyz="0.296886967375 0 -0.0795506015227" rpy="0 0 0"/>
      <geometry>
        <mesh filename="package://iCub/meshes/simmechanics/sim_sea_2-5_r_forearm_prt-binary.stl" scale="0.001 0.001 0.001"/>
      </geometry>
      <material name="black">
        <color rgba="0 0 0 1"/>
      </material>
    </visual>
    <collision>
      <origin xyz="0.296886967375 0 -0.0795506015227" rpy="0 0 0"/>
      <geometry>
        <mesh filename="package://iCub/meshes/simmechanics/sim_sea_2-5_r_forearm_prt-binary.stl" scale="0.001 0.001 0.001"/>
      </geometry>
    </collision>
  </link>
  <joint name="r_wrist_prosup" type="revolute">
    <origin xyz="-0.0384624299027 0.0224999 -0.00522316819403" rpy="0 0 0"/>
    <axis xyz="0.965925843882 -2.22044604925e-16 -0.258818979447"/>
    <parent link="r_elbow_1"/>
    <child link="r_forearm"/>
    <limit effort="50000" lower="-1.0471975512" upper="1.0471975512" velocity="50000"/>
    <dynamics damping="1.0" friction="0.0"/>
  </joint>
  <link name="r_forearm_skin_0"/>
  <joint name="r_forearm_skin_0_fixed_joint" type="fixed">
    <origin xyz="-0.0454493286618 0.030077 -0.00628656037901" rpy="1.69181522292 -0.271026744341 -3.06880438227"/>
    <parent link="r_forearm"/>
    <child link="r_forearm_skin_0"/>
    <dynamics damping="0.1"/>
  </joint>
  <link name="r_forearm_skin_1"/>
  <joint name="r_forearm_skin_1_fixed_joint" type="fixed">
    <origin xyz="-0.0333728935826 0.028826 -0.0198456867711" rpy="1.86694023278 -0.274442533764 -3.09946977984"/>
    <parent link="r_forearm"/>
    <child link="r_forearm_skin_1"/>
    <dynamics damping="0.1"/>
  </joint>
  <link name="r_forearm_skin_2"/>
  <joint name="r_forearm_skin_2_fixed_joint" type="fixed">
    <origin xyz="-0.0146988929852 0.031279 -0.0160117338371" rpy="1.72847287019 -0.264015219116 -3.12733260687"/>
    <parent link="r_forearm"/>
    <child link="r_forearm_skin_2"/>
    <dynamics damping="0.1"/>
  </joint>
  <link name="r_forearm_skin_3"/>
  <joint name="r_forearm_skin_3_fixed_joint" type="fixed">
    <origin xyz="-0.045567293622 -0.030891 -0.00633000929351" rpy="-1.69487280859 -0.269757727104 3.07959743574"/>
    <parent link="r_forearm"/>
    <child link="r_forearm_skin_3"/>
    <dynamics damping="0.1"/>
  </joint>
  <link name="r_forearm_skin_4"/>
  <joint name="r_forearm_skin_4_fixed_joint" type="fixed">
    <origin xyz="-0.0635326332996 -0.0281163 -0.00899784258066" rpy="-1.80734960194 -0.0393131796327 2.97997643632"/>
    <parent link="r_forearm"/>
    <child link="r_forearm_skin_4"/>
    <dynamics damping="0.1"/>
  </joint>
  <link name="r_forearm_skin_5"/>
  <joint name="r_forearm_skin_5_fixed_joint" type="fixed">
    <origin xyz="-0.0688211941968 -0.0179483 -0.0231133361791" rpy="-2.5410475806 -0.385627260642 3.05486989667"/>
    <parent link="r_forearm"/>
    <child link="r_forearm_skin_5"/>
    <dynamics damping="0.1"/>
  </joint>
  <link name="r_forearm_skin_6"/>
  <joint name="r_forearm_skin_6_fixed_joint" type="fixed">
    <origin xyz="-0.0333948436255 -0.0295479 -0.0198325583433" rpy="-1.86628164653 -0.272886336181 3.10448585021"/>
    <parent link="r_forearm"/>
    <child link="r_forearm_skin_6"/>
    <dynamics damping="0.1"/>
  </joint>
  <link name="r_forearm_skin_7"/>
  <joint name="r_forearm_skin_7_fixed_joint" type="fixed">
    <origin xyz="-0.0147224260074 -0.0319422 -0.0159326482703" rpy="-1.72564640857 -0.263992900722 3.12721254266"/>
    <parent link="r_forearm"/>
    <child link="r_forearm_skin_7"/>
    <dynamics damping="0.1"/>
  </joint>
  <link name="r_forearm_skin_8"/>
  <joint name="r_forearm_skin_8_fixed_joint" type="fixed">
    <origin xyz="-0.0228528628554 -0.0097862 -0.041885146375" rpy="-2.94801979137 -0.270605090512 3.13980557285"/>
    <parent link="r_forearm"/>
    <child link="r_forearm_skin_8"/>
    <dynamics damping="0.1"/>
  </joint>
  <link name="r_forearm_skin_9"/>
  <joint name="r_forearm_skin_9_fixed_joint" type="fixed">
    <origin xyz="-0.0376032734683 -0.018955 -0.0340163371186" rpy="-2.58406517708 -0.2933217196 3.12128407396"/>
    <parent link="r_forearm"/>
    <child link="r_forearm_skin_9"/>
    <dynamics damping="0.1"/>
  </joint>
  <link name="r_forearm_skin_10"/>
  <joint name="r_forearm_skin_10_fixed_joint" type="fixed">
    <origin xyz="-0.0542285210888 -0.0097861 -0.0321469082866" rpy="-2.94123313406 -0.328304471922 3.1276263754"/>
    <parent link="r_forearm"/>
    <child link="r_forearm_skin_10"/>
    <dynamics damping="0.1"/>
  </joint>
  <link name="r_forearm_skin_11"/>
  <joint name="r_forearm_skin_11_fixed_joint" type="fixed">
    <origin xyz="-0.0542240912024 0.009043 -0.0321431259452" rpy="2.93929835957 -0.329101389745 -3.12731916446"/>
    <parent link="r_forearm"/>
    <child link="r_forearm_skin_11"/>
    <dynamics damping="0.1"/>
  </joint>
  <link name="r_forearm_skin_12"/>
  <joint name="r_forearm_skin_12_fixed_joint" type="fixed">
    <origin xyz="-0.0375994633868 0.018216 -0.0340191179961" rpy="2.58303505964 -0.29483050207 -3.12026580314"/>
    <parent link="r_forearm"/>
    <child link="r_forearm_skin_12"/>
    <dynamics damping="0.1"/>
  </joint>
  <link name="r_forearm_skin_13"/>
  <joint name="r_forearm_skin_13_fixed_joint" type="fixed">
    <origin xyz="-0.0228550868405 0.009048 -0.0418919009209" rpy="2.94896679198 -0.270583947189 -3.13981880352"/>
    <parent link="r_forearm"/>
    <child link="r_forearm_skin_13"/>
    <dynamics damping="0.1"/>
  </joint>
  <link name="r_forearm_skin_14"/>
  <joint name="r_forearm_skin_14_fixed_joint" type="fixed">
    <origin xyz="-0.0687703276364 0.01716 -0.0230239558511" rpy="2.48044991868 -0.295542566281 -2.91877349139"/>
    <parent link="r_forearm"/>
    <child link="r_forearm_skin_14"/>
    <dynamics damping="0.1"/>
  </joint>
  <link name="r_forearm_skin_15"/>
  <joint name="r_forearm_skin_15_fixed_joint" type="fixed">
    <origin xyz="-0.0633786419662 0.027145 -0.00879405455544" rpy="1.80492769741 -0.289783281916 -3.02765891428"/>
    <parent link="r_forearm"/>
    <child link="r_forearm_skin_15"/>
    <dynamics damping="0.1"/>
  </joint>
  <link name="r_forearm_skin_16"/>
  <joint name="r_forearm_skin_16_fixed_joint" type="fixed">
    <origin xyz="-0.03792482187 0.030487 0.0206369503605" rpy="1.41280007026 -0.25082462139 -3.06572742343"/>
    <parent link="r_forearm"/>
    <child link="r_forearm_skin_16"/>
    <dynamics damping="0.1"/>
  </joint>
  <link name="r_forearm_skin_17"/>
  <joint name="r_forearm_skin_17_fixed_joint" type="fixed">
    <origin xyz="-0.0543170548821 0.027725 0.0303291240179" rpy="1.27223716205 -0.23059304703 -3.03195542837"/>
    <parent link="r_forearm"/>
    <child link="r_forearm_skin_17"/>
    <dynamics damping="0.1"/>
  </joint>
  <link name="r_forearm_skin_19"/>
  <joint name="r_forearm_skin_19_fixed_joint" type="fixed">
    <origin xyz="-0.0381266107138 -0.0312941 0.020690605393" rpy="-1.41560888703 -0.252569290226 3.07715217889"/>
    <parent link="r_forearm"/>
    <child link="r_forearm_skin_19"/>
    <dynamics damping="0.1"/>
  </joint>
  <link name="r_forearm_skin_22"/>
  <joint name="r_forearm_skin_22_fixed_joint" type="fixed">
    <origin xyz="-0.0544173950421 -0.0287223 0.0306037516609" rpy="-1.2658242728 -0.234328151379 3.04788317971"/>
    <parent link="r_forearm"/>
    <child link="r_forearm_skin_22"/>
    <dynamics damping="0.1"/>
  </joint>
  <link name="r_forearm_skin_24"/>
  <joint name="r_forearm_skin_24_fixed_joint" type="fixed">
    <origin xyz="-0.0700345319564 -0.0097164 0.050069108714" rpy="-0.23489327644 -0.0388172993982 3.08676345459"/>
    <parent link="r_forearm"/>
    <child link="r_forearm_skin_24"/>
    <dynamics damping="0.1"/>
  </joint>
  <link name="r_forearm_skin_25"/>
  <joint name="r_forearm_skin_25_fixed_joint" type="fixed">
    <origin xyz="-0.0535999216295 -0.0182238 0.0454698125045" rpy="-0.564295527715 -0.136980272197 3.05963182792"/>
    <parent link="r_forearm"/>
    <child link="r_forearm_skin_25"/>
    <dynamics damping="0.1"/>
  </joint>
  <link name="r_forearm_skin_28"/>
  <joint name="r_forearm_skin_28_fixed_joint" type="fixed">
    <origin xyz="-0.0535859272148 0.017412 0.045352037397" rpy="0.59077064408 -0.0531607226063 3.10597081167"/>
    <parent link="r_forearm"/>
    <child link="r_forearm_skin_28"/>
    <dynamics damping="0.1"/>
  </joint>
  <link name="r_forearm_skin_29"/>
  <joint name="r_forearm_skin_29_fixed_joint" type="fixed">
    <origin xyz="-0.0700355805031 0.008954 0.0500111036233" rpy="0.248630982209 -0.0383136556786 -3.08328999116"/>
    <parent link="r_forearm"/>
    <child link="r_forearm_skin_29"/>
    <dynamics damping="0.1"/>
  </joint>
  <link name="r_forearm_dh_frame"/>
  <joint name="r_forearm_dh_frame_fixed_joint" type="fixed">
    <origin xyz="-0.102871102373 7.00000000002e-06 0.0275642213111" rpy="-0.261799319827 0 -1.57079632679"/>
    <parent link="r_forearm"/>
    <child link="r_forearm_dh_frame"/>
    <dynamics damping="0.1"/>
  </joint>
  <link name="r_wrist_1">
    <inertial>
      <origin xyz="0.000986101955547 -0.001176 0.00410132736724" rpy="0 0 0"/>
      <mass value="0.0362615"/>
      <inertia ixx="0.01" ixy="-3.10462e-08" ixz="-9.44554e-07" iyy="0.01" iyz="-1.59685e-07" izz="0.01"/>
    </inertial>
    <visual>
      <origin xyz="0.400392176248 -7.00000000009e-06 -0.104748304516" rpy="0 0 0"/>
      <geometry>
        <mesh filename="package://iCub/meshes/simmechanics/sim_sea_2-5_r_wrist_pitch_prt-binary.stl" scale="0.001 0.001 0.001"/>
      </geometry>
      <material name="red">
        <color rgba="1 0 0 1"/>
      </material>
    </visual>
    <collision>
      <origin xyz="0.400392176248 -7.00000000009e-06 -0.104748304516" rpy="0 0 0"/>
      <geometry>
        <mesh filename="package://iCub/meshes/simmechanics/sim_sea_2-5_r_wrist_pitch_prt-binary.stl" scale="0.001 0.001 0.001"/>
      </geometry>
    </collision>
  </link>
  <joint name="r_wrist_pitch" type="revolute">
    <origin xyz="-0.103505208873 7.00000000002e-06 0.0251977029936" rpy="0 0 0"/>
    <axis xyz="0.258818979447 0.0 0.965925843882"/>
    <parent link="r_forearm"/>
    <child link="r_wrist_1"/>
    <limit effort="50000" lower="-1.3962634016" upper="0.436332312999" velocity="50000"/>
    <dynamics damping="1.0" friction="0.0"/>
  </joint>
  <link name="r_hand">
    <inertial>
      <origin xyz="-0.064668163717 0.0056002 0.0226812940918" rpy="0 0 0"/>
      <mass value="0.248289"/>
      <inertia ixx="0.01" ixy="-2.3536e-06" ixz="3.61526e-05" iyy="0.01" iyz="2.07146e-05" izz="0.01"/>
    </inertial>
    <visual>
      <origin xyz="0.399758069749 0.0194929 -0.107114822834" rpy="0 0 0"/>
      <geometry>
        <mesh filename="package://iCub/meshes/simmechanics/sim_sea_2-5_r_hand_prt-binary.stl" scale="0.001 0.001 0.001"/>
      </geometry>
      <material name="blue">
        <color rgba="0 0 1 1"/>
      </material>
    </visual>
    <collision>
      <origin xyz="0.399758069749 0.0194929 -0.107114822834" rpy="0 0 0"/>
      <geometry>
        <mesh filename="package://iCub/meshes/simmechanics/sim_sea_2-5_r_hand_prt-binary.stl" scale="0.001 0.001 0.001"/>
      </geometry>
    </collision>
  </link>
  <joint name="r_wrist_yaw" type="revolute">
    <origin xyz="0.000634106499644 -0.0194999 0.00236651831751" rpy="0 0 0"/>
    <axis xyz="2.22044604925e-16 1.0 0.0"/>
    <parent link="r_wrist_1"/>
    <child link="r_hand"/>
    <limit effort="50000" lower="-0.349065850399" upper="0.436332312999" velocity="50000"/>
    <dynamics damping="1.0" friction="0.0"/>
  </joint>
  <link name="r_hand_dh_frame"/>
  <joint name="r_hand_dh_frame_fixed_joint" type="fixed">
    <origin xyz="-0.0576542978428 -0.0055568 0.0136938323083" rpy="-1.57079632679 -0.261799319827 3.14159265359"/>
    <parent link="r_hand"/>
    <child link="r_hand_dh_frame"/>
    <dynamics damping="0.1"/>
  </joint>
  <link name="l_shoulder_1">
    <inertial>
      <origin xyz="-0.008985 -3.3e-05 -0.0088998" rpy="0 0 0"/>
      <mass value="0.114882"/>
      <inertia ixx="0.01" ixy="-1.77064e-08" ixz="3.55951e-06" iyy="0.01" iyz="6.57597e-08" izz="0.01"/>
    </inertial>
    <visual>
      <origin xyz="-0.120257482 0 -0.032223" rpy="0 0 0"/>
      <geometry>
        <mesh filename="package://iCub/meshes/simmechanics/sim_sea_2-5_l_shoulder_1_prt-binary.stl" scale="0.001 0.001 0.001"/>
      </geometry>
      <material name="yellow">
        <color rgba="1 1 0 1"/>
      </material>
    </visual>
    <collision>
      <origin xyz="-0.120257482 0 -0.032223" rpy="0 0 0"/>
      <geometry>
        <mesh filename="package://iCub/meshes/simmechanics/sim_sea_2-5_l_shoulder_1_prt-binary.stl" scale="0.001 0.001 0.001"/>
      </geometry>
    </collision>
  </link>
  <joint name="l_shoulder_pitch" type="revolute">
    <origin xyz="0.120016000191 0.0928 0.0079693" rpy="0 0 0"/>
    <axis xyz="0.965926 0.0 0.258819"/>
    <parent link="chest"/>
    <child link="l_shoulder_1"/>
    <limit effort="50000" lower="-1.66678943565" upper="0.174532925199" velocity="50000"/>
    <dynamics damping="1.0" friction="0.0"/>
  </joint>
  <link name="l_shoulder_2">
    <inertial>
      <origin xyz="0.0214745951272 0.000268957899687 -0.0194107361535" rpy="0 0 0"/>
      <mass value="0.238162"/>
      <inertia ixx="0.01" ixy="1.19701e-07" ixz="-1.29687e-05" iyy="0.01" iyz="1.20112e-06" izz="0.01"/>
    </inertial>
    <visual>
      <origin xyz="-0.106586691581 1.10800934344e-07 -0.040743380771" rpy="0 0 0"/>
      <geometry>
        <mesh filename="package://iCub/meshes/simmechanics/sim_sea_2-5_l_shoulder_2_prt-binary.stl" scale="0.001 0.001 0.001"/>
      </geometry>
      <material name="pink">
        <color rgba="1 0 1 1"/>
      </material>
    </visual>
    <collision>
      <origin xyz="-0.106586691581 1.10800934344e-07 -0.040743380771" rpy="0 0 0"/>
      <geometry>
        <mesh filename="package://iCub/meshes/simmechanics/sim_sea_2-5_l_shoulder_2_prt-binary.stl" scale="0.001 0.001 0.001"/>
      </geometry>
    </collision>
  </link>
  <joint name="l_shoulder_roll" type="revolute">
    <origin xyz="-0.013671 0 0.0085204" rpy="0.270597317916 0.252680177542 -1.50155688559"/>
    <axis xyz="-0.258819 2.77555756156e-17 0.965926"/>
    <parent link="l_shoulder_1"/>
    <child link="l_shoulder_2"/>
    <limit effort="50000" lower="0.35" upper="2.80648943721" velocity="50000"/>
    <dynamics damping="1.0" friction="0.0"/>
  </joint>
  <link name="l_shoulder_3">
    <inertial>
      <origin xyz="0.026798412222 -1.6e-05 0.0146956806177" rpy="0 0 0"/>
      <mass value="0.35913"/>
      <inertia ixx="0.01" ixy="-2.22441e-07" ixz="-4.95846e-05" iyy="0.01" iyz="1.07538e-07" izz="0.01"/>
    </inertial>
    <visual>
      <origin xyz="-0.131901037685 0 -0.0353427669194" rpy="0 0 0"/>
      <geometry>
        <mesh filename="package://iCub/meshes/simmechanics/sim_sea_2-5_l_upper_arm_prt-binary.stl" scale="0.001 0.001 0.001"/>
      </geometry>
      <material name="cyan">
        <color rgba="0 1 1 1"/>
      </material>
    </visual>
    <collision>
      <origin xyz="-0.131901037685 0 -0.0353427669194" rpy="0 0 0"/>
      <geometry>
        <mesh filename="package://iCub/meshes/simmechanics/sim_sea_2-5_l_upper_arm_prt-binary.stl" scale="0.001 0.001 0.001"/>
      </geometry>
    </collision>
  </link>
  <joint name="l_shoulder_yaw" type="revolute">
    <origin xyz="0.0253143468312 1.11636438205e-07 -0.00540061656265" rpy="-0.252689546175 -0.0085186183214 -0.067039889142"/>
    <axis xyz="0.965925843882 2.22044604925e-16 0.258818979447"/>
    <parent link="l_shoulder_2"/>
    <child link="l_shoulder_3"/>
    <limit effort="50000" lower="-0.645771823238" upper="1.3962634016" velocity="50000"/>
    <dynamics damping="1.0" friction="0.0"/>
  </joint>
  <link name="l_upper_arm">
    <inertial>
      <origin xyz="-0.006121 -0.000189 0.0293684" rpy="0 -1.30899700697 -3.14159265359"/>
      <mass value="0.746799"/>
      <inertia ixx="0.000509731" ixy="-6.90767e-07" ixz="1.20048e-05" iyy="0.00067086" iyz="3.11833e-06" izz="0.000601202"/>
    </inertial>
    <visual>
      <origin xyz="-0.015 0 -0.1933" rpy="0 -1.30899700697 -3.14159265359"/>
      <geometry>
        <mesh filename="package://iCub/meshes/simmechanics/sim_sea_2-5_l_elbow_prt-binary.stl" scale="0.001 0.001 0.001"/>
      </geometry>
      <material name="green">
        <color rgba="0 1 0 1"/>
      </material>
    </visual>
    <collision>
      <origin xyz="-0.015 0 -0.1933" rpy="0 -1.30899700697 -3.14159265359"/>
      <geometry>
        <mesh filename="package://iCub/meshes/simmechanics/sim_sea_2-5_l_elbow_prt-binary.stl" scale="0.001 0.001 0.001"/>
      </geometry>
    </collision>
  </link>
  <joint name="l_arm_ft_sensor" type="fixed">
    <origin xyz="0.0509301432452 0 0.0291758294659" rpy="0 -1.30899700697 3.14159265359"/>
    <parent link="l_shoulder_3"/>
    <child link="l_upper_arm"/>
    <dynamics damping="0.1"/>
  </joint>
  <link name="l_elbow_1">
    <inertial>
      <origin xyz="0.00673912932843 0.0303019 -0.00465769236154" rpy="0 0 0"/>
      <mass value="0.267903"/>
      <inertia ixx="0.01" ixy="-7.37159e-06" ixz="1.04505e-05" iyy="0.01" iyz="3.9319e-06" izz="0.01"/>
    </inertial>
    <visual>
      <origin xyz="-0.259390463317 0.0339999 -0.0850325886962" rpy="0 0 0"/>
      <geometry>
        <mesh filename="package://iCub/meshes/simmechanics/sim_sea_2-5_l_elbow_prosup_prt-binary.stl" scale="0.001 0.001 0.001"/>
      </geometry>
      <material name="white">
        <color rgba="1 1 1 1"/>
      </material>
    </visual>
    <collision>
      <origin xyz="-0.259390463317 0.0339999 -0.0850325886962" rpy="0 0 0"/>
      <geometry>
        <mesh filename="package://iCub/meshes/simmechanics/sim_sea_2-5_l_elbow_prosup_prt-binary.stl" scale="0.001 0.001 0.001"/>
      </geometry>
    </collision>
  </link>
  <joint name="l_elbow" type="revolute">
    <origin xyz="0 0.0339999 0.07926" rpy="0 -1.30899700697 -3.14159265359"/>
    <axis xyz="2.22044604925e-16 -1.0 0.0"/>
    <parent link="l_upper_arm"/>
    <child link="l_elbow_1"/>
    <limit effort="50000" lower="0.261799387799" upper="1.85004900711" velocity="50000"/>
    <dynamics damping="1.0" friction="0.0"/>
  </joint>
  <link name="l_forearm">
    <inertial>
      <origin xyz="0.0404511828823 -0.000686 0.00532363214379" rpy="0 0 0"/>
      <mass value="0.636185"/>
      <inertia ixx="0.000371447" ixy="4.34562e-06" ixz="-0.000105871" iyy="0.000674229" iyz="4.05222e-06" izz="0.000557115"/>
    </inertial>
    <visual>
      <origin xyz="-0.296886967375 0 -0.0795506015227" rpy="0 0 0"/>
      <geometry>
        <mesh filename="package://iCub/meshes/simmechanics/sim_sea_2-5_l_forearm_prt-binary.stl" scale="0.001 0.001 0.001"/>
      </geometry>
      <material name="dblue">
        <color rgba="0 0 0.8 1"/>
      </material>
    </visual>
    <collision>
      <origin xyz="-0.296886967375 0 -0.0795506015227" rpy="0 0 0"/>
      <geometry>
        <mesh filename="package://iCub/meshes/simmechanics/sim_sea_2-5_l_forearm_prt-binary.stl" scale="0.001 0.001 0.001"/>
      </geometry>
    </collision>
  </link>
  <joint name="l_wrist_prosup" type="revolute">
    <origin xyz="0.0384624299027 0.0339999 -0.00522316819403" rpy="0 0 0"/>
    <axis xyz="0.965925843882 2.22044604925e-16 0.258818979447"/>
    <parent link="l_elbow_1"/>
    <child link="l_forearm"/>
    <limit effort="50000" lower="-1.0471975512" upper="1.0471975512" velocity="50000"/>
    <dynamics damping="1.0" friction="0.0"/>
  </joint>
  <link name="l_forearm_skin_0"/>
  <joint name="l_forearm_skin_0_fixed_joint" type="fixed">
    <origin xyz="0.0454493286618 -0.0323169 -0.00628656037901" rpy="1.69181522292 -0.271026744341 0.0727882713185"/>
    <parent link="l_forearm"/>
    <child link="l_forearm_skin_0"/>
    <dynamics damping="0.1"/>
  </joint>
  <link name="l_forearm_skin_1"/>
  <joint name="l_forearm_skin_1_fixed_joint" type="fixed">
    <origin xyz="0.0333728935826 -0.0310662 -0.0198456867711" rpy="1.86694023278 -0.274442533764 0.0421228737473"/>
    <parent link="l_forearm"/>
    <child link="l_forearm_skin_1"/>
    <dynamics damping="0.1"/>
  </joint>
  <link name="l_forearm_skin_2"/>
  <joint name="l_forearm_skin_2_fixed_joint" type="fixed">
    <origin xyz="0.0146988929852 -0.0335184 -0.0160117338371" rpy="1.72847287019 -0.264015219116 0.0142600467197"/>
    <parent link="l_forearm"/>
    <child link="l_forearm_skin_2"/>
    <dynamics damping="0.1"/>
  </joint>
  <link name="l_forearm_skin_3"/>
  <joint name="l_forearm_skin_3_fixed_joint" type="fixed">
    <origin xyz="0.045567293622 0.028651 -0.00633000929351" rpy="-1.69487280859 -0.269757727104 -0.061995217851"/>
    <parent link="l_forearm"/>
    <child link="l_forearm_skin_3"/>
    <dynamics damping="0.1"/>
  </joint>
  <link name="l_forearm_skin_4"/>
  <joint name="l_forearm_skin_4_fixed_joint" type="fixed">
    <origin xyz="0.0635326332996 0.025877 -0.00899784258066" rpy="-1.81747870108 -0.287406884885 -0.0998316152826"/>
    <parent link="l_forearm"/>
    <child link="l_forearm_skin_4"/>
    <dynamics damping="0.1"/>
  </joint>
  <link name="l_forearm_skin_5"/>
  <joint name="l_forearm_skin_5_fixed_joint" type="fixed">
    <origin xyz="0.0688211941968 0.015709 -0.0231133361791" rpy="-2.5410475806 -0.385627260642 -0.0867227569203"/>
    <parent link="l_forearm"/>
    <child link="l_forearm_skin_5"/>
    <dynamics damping="0.1"/>
  </joint>
  <link name="l_forearm_skin_6"/>
  <joint name="l_forearm_skin_6_fixed_joint" type="fixed">
    <origin xyz="0.0333948436255 0.027308 -0.0198325583433" rpy="-1.86628164653 -0.272886336181 -0.0371068033783"/>
    <parent link="l_forearm"/>
    <child link="l_forearm_skin_6"/>
    <dynamics damping="0.1"/>
  </joint>
  <link name="l_forearm_skin_7"/>
  <joint name="l_forearm_skin_7_fixed_joint" type="fixed">
    <origin xyz="0.0147224260074 0.029702 -0.0159326482703" rpy="-1.72564640857 -0.263992900722 -0.0143801109253"/>
    <parent link="l_forearm"/>
    <child link="l_forearm_skin_7"/>
    <dynamics damping="0.1"/>
  </joint>
  <link name="l_forearm_skin_8"/>
  <joint name="l_forearm_skin_8_fixed_joint" type="fixed">
    <origin xyz="0.0228528628554 0.007546 -0.041885146375" rpy="-2.94801979137 -0.270605090512 -0.00178708074348"/>
    <parent link="l_forearm"/>
    <child link="l_forearm_skin_8"/>
    <dynamics damping="0.1"/>
  </joint>
  <link name="l_forearm_skin_9"/>
  <joint name="l_forearm_skin_9_fixed_joint" type="fixed">
    <origin xyz="0.0376032734683 0.016715 -0.0340163371186" rpy="-2.58406517708 -0.2933217196 -0.0203085796276"/>
    <parent link="l_forearm"/>
    <child link="l_forearm_skin_9"/>
    <dynamics damping="0.1"/>
  </joint>
  <link name="l_forearm_skin_10"/>
  <joint name="l_forearm_skin_10_fixed_joint" type="fixed">
    <origin xyz="0.0542285210888 0.007546 -0.0321469082866" rpy="-2.94123313406 -0.328304471922 -0.0139662781936"/>
    <parent link="l_forearm"/>
    <child link="l_forearm_skin_10"/>
    <dynamics damping="0.1"/>
  </joint>
  <link name="l_forearm_skin_11"/>
  <joint name="l_forearm_skin_11_fixed_joint" type="fixed">
    <origin xyz="0.0542240912024 -0.0112832 -0.0321431259452" rpy="2.93929835957 -0.329101389745 0.0142734891292"/>
    <parent link="l_forearm"/>
    <child link="l_forearm_skin_11"/>
    <dynamics damping="0.1"/>
  </joint>
  <link name="l_forearm_skin_12"/>
  <joint name="l_forearm_skin_12_fixed_joint" type="fixed">
    <origin xyz="0.0375994633868 -0.0204556 -0.0340191179961" rpy="2.58303505964 -0.29483050207 0.021326850448"/>
    <parent link="l_forearm"/>
    <child link="l_forearm_skin_12"/>
    <dynamics damping="0.1"/>
  </joint>
  <link name="l_forearm_skin_13"/>
  <joint name="l_forearm_skin_13_fixed_joint" type="fixed">
    <origin xyz="0.0228550868405 -0.0112878 -0.0418919009209" rpy="2.94896679198 -0.270583947189 0.00177385006765"/>
    <parent link="l_forearm"/>
    <child link="l_forearm_skin_13"/>
    <dynamics damping="0.1"/>
  </joint>
  <link name="l_forearm_skin_14"/>
  <joint name="l_forearm_skin_14_fixed_joint" type="fixed">
    <origin xyz="0.0687703276364 -0.0193999 -0.0230239558511" rpy="2.52462250363 -0.387794511771 0.0912924111683"/>
    <parent link="l_forearm"/>
    <child link="l_forearm_skin_14"/>
    <dynamics damping="0.1"/>
  </joint>
  <link name="l_forearm_skin_15"/>
  <joint name="l_forearm_skin_15_fixed_joint" type="fixed">
    <origin xyz="0.0633786419662 -0.0293843 -0.00879405455544" rpy="1.80492769741 -0.289783281916 0.113933739306"/>
    <parent link="l_forearm"/>
    <child link="l_forearm_skin_15"/>
    <dynamics damping="0.1"/>
  </joint>
  <link name="l_forearm_skin_16"/>
  <joint name="l_forearm_skin_16_fixed_joint" type="fixed">
    <origin xyz="0.03792482187 -0.0327268 0.0206369503605" rpy="1.41280007026 -0.25082462139 0.0758652301584"/>
    <parent link="l_forearm"/>
    <child link="l_forearm_skin_16"/>
    <dynamics damping="0.1"/>
  </joint>
  <link name="l_forearm_skin_17"/>
  <joint name="l_forearm_skin_17_fixed_joint" type="fixed">
    <origin xyz="0.0543170548821 -0.0299646 0.0303291240179" rpy="1.27223716205 -0.23059304703 0.109637225219"/>
    <parent link="l_forearm"/>
    <child link="l_forearm_skin_17"/>
    <dynamics damping="0.1"/>
  </joint>
  <link name="l_forearm_skin_19"/>
  <joint name="l_forearm_skin_19_fixed_joint" type="fixed">
    <origin xyz="0.0381266107138 0.029054 0.020690605393" rpy="-1.41560888703 -0.252569290226 -0.0644404747027"/>
    <parent link="l_forearm"/>
    <child link="l_forearm_skin_19"/>
    <dynamics damping="0.1"/>
  </joint>
  <link name="l_forearm_skin_22"/>
  <joint name="l_forearm_skin_22_fixed_joint" type="fixed">
    <origin xyz="0.0544173950421 0.026483 0.0306037516609" rpy="-1.2658242728 -0.234328151379 -0.0937094738802"/>
    <parent link="l_forearm"/>
    <child link="l_forearm_skin_22"/>
    <dynamics damping="0.1"/>
  </joint>
  <link name="l_forearm_skin_24"/>
  <joint name="l_forearm_skin_24_fixed_joint" type="fixed">
    <origin xyz="0.0700345319564 0.007477 0.050069108714" rpy="-0.23489327644 -0.0388172993982 -0.0548291989999"/>
    <parent link="l_forearm"/>
    <child link="l_forearm_skin_24"/>
    <dynamics damping="0.1"/>
  </joint>
  <link name="l_forearm_skin_25"/>
  <joint name="l_forearm_skin_25_fixed_joint" type="fixed">
    <origin xyz="0.0535999216295 0.015984 0.0454698125045" rpy="-0.564295527715 -0.136980272197 -0.0819608256656"/>
    <parent link="l_forearm"/>
    <child link="l_forearm_skin_25"/>
    <dynamics damping="0.1"/>
  </joint>
  <link name="l_forearm_skin_28"/>
  <joint name="l_forearm_skin_28_fixed_joint" type="fixed">
    <origin xyz="0.0535859272148 -0.0196522 0.045352037397" rpy="0.579311106949 -0.133994306778 0.0867597858312"/>
    <parent link="l_forearm"/>
    <child link="l_forearm_skin_28"/>
    <dynamics damping="0.1"/>
  </joint>
  <link name="l_forearm_skin_29"/>
  <joint name="l_forearm_skin_29_fixed_joint" type="fixed">
    <origin xyz="0.0700355805031 -0.0111936 0.0500111036233" rpy="0.248630982209 -0.0383136556786 0.0583026624266"/>
    <parent link="l_forearm"/>
    <child link="l_forearm_skin_29"/>
    <dynamics damping="0.1"/>
  </joint>
  <link name="l_forearm_dh_frame"/>
  <joint name="l_forearm_dh_frame_fixed_joint" type="fixed">
    <origin xyz="0.102871102373 7.00000000002e-06 0.0275642213111" rpy="2.87979333376 0 1.57079632679"/>
    <parent link="l_forearm"/>
    <child link="l_forearm_dh_frame"/>
    <dynamics damping="0.1"/>
  </joint>
  <link name="l_wrist_1">
    <inertial>
      <origin xyz="-0.000981313804428 -0.001178 0.00408345773913" rpy="0 0 0"/>
      <mass value="0.0362152"/>
      <inertia ixx="0.01" ixy="3.08362e-08" ixz="9.42153e-07" iyy="0.01" iyz="-1.58924e-07" izz="0.01"/>
    </inertial>
    <visual>
      <origin xyz="-0.400314530555 -7.00000000009e-06 -0.105038082269" rpy="0 0 0"/>
      <geometry>
        <mesh filename="package://iCub/meshes/simmechanics/sim_sea_2-5_l_wrist_pitch_prt-binary.stl" scale="0.001 0.001 0.001"/>
      </geometry>
      <material name="dgreen">
        <color rgba="0.1 0.8 0.1 1"/>
      </material>
    </visual>
    <collision>
      <origin xyz="-0.400314530555 -7.00000000009e-06 -0.105038082269" rpy="0 0 0"/>
      <geometry>
        <mesh filename="package://iCub/meshes/simmechanics/sim_sea_2-5_l_wrist_pitch_prt-binary.stl" scale="0.001 0.001 0.001"/>
      </geometry>
    </collision>
  </link>
  <joint name="l_wrist_pitch" type="revolute">
    <origin xyz="0.103427563179 7.00000000002e-06 0.0254874807467" rpy="0 0 0"/>
    <axis xyz="0.258818979447 0.0 -0.965925843882"/>
    <parent link="l_forearm"/>
    <child link="l_wrist_1"/>
    <limit effort="50000" lower="-1.3962634016" upper="0.436332312999" velocity="50000"/>
    <dynamics damping="1.0" friction="0.0"/>
  </joint>
  <link name="l_hand">
    <inertial>
      <origin xyz="0.0647680204057 0.0056304 0.0226602208449" rpy="0 0 0"/>
      <mass value="0.247806"/>
      <inertia ixx="0.01" ixy="2.96453e-06" ixz="-3.68906e-05" iyy="0.01" iyz="2.06885e-05" izz="0.01"/>
    </inertial>
    <visual>
      <origin xyz="-0.399680424055 0.0194929 -0.107404600587" rpy="0 0 0"/>
      <geometry>
        <mesh filename="package://iCub/meshes/simmechanics/sim_sea_2-5_l_hand_prt-binary.stl" scale="0.001 0.001 0.001"/>
      </geometry>
      <material name="gray">
        <color rgba="0.5 0.5 0.5 1"/>
      </material>
    </visual>
    <collision>
      <origin xyz="-0.399680424055 0.0194929 -0.107404600587" rpy="0 0 0"/>
      <geometry>
        <mesh filename="package://iCub/meshes/simmechanics/sim_sea_2-5_l_hand_prt-binary.stl" scale="0.001 0.001 0.001"/>
      </geometry>
    </collision>
  </link>
  <joint name="l_wrist_yaw" type="revolute">
    <origin xyz="-0.000634106499644 -0.0194999 0.00236651831751" rpy="0 0 0"/>
    <axis xyz="-2.22044604925e-16 1.0 0.0"/>
    <parent link="l_wrist_1"/>
    <child link="l_hand"/>
    <limit effort="50000" lower="-0.349065850399" upper="0.436332312999" velocity="50000"/>
    <dynamics damping="1.0" friction="0.0"/>
  </joint>
  <link name="l_hand_dh_frame"/>
  <joint name="l_hand_dh_frame_fixed_joint" type="fixed">
    <origin xyz="0.0576542978428 -0.0055568 0.0136938323083" rpy="-1.57079632679 -0.261799319827 0"/>
    <parent link="l_hand"/>
    <child link="l_hand_dh_frame"/>
    <dynamics damping="0.1"/>
  </joint>
  <link name="neck_1">
    <inertial>
      <origin xyz="0.0143705608 0.006567 -0.0063842" rpy="0 0 0"/>
      <mass value="0.125793"/>
      <inertia ixx="0.01" ixy="8.09156e-08" ixz="-3.74998e-08" iyy="0.01" iyz="9.39717e-06" izz="0.01"/>
    </inertial>
    <visual>
      <origin xyz="0.0142999998093 -0.079997 -0.0295008" rpy="0 0 0"/>
      <geometry>
        <mesh filename="package://iCub/meshes/simmechanics/sim_sea_2-5_neck_1_prt-binary.stl" scale="0.001 0.001 0.001"/>
      </geometry>
      <material name="green">
        <color rgba="0 1 0 1"/>
      </material>
    </visual>
    <collision>
      <origin xyz="0.0142999998093 -0.079997 -0.0295008" rpy="0 0 0"/>
      <geometry>
        <mesh filename="package://iCub/meshes/simmechanics/sim_sea_2-5_neck_1_prt-binary.stl" scale="0.001 0.001 0.001"/>
      </geometry>
    </collision>
  </link>
  <joint name="neck_pitch" type="revolute">
    <origin xyz="-0.0142999998093 0.172797 0.0053118" rpy="0 0 0"/>
    <axis xyz="-1.0 0.0 0.0"/>
    <parent link="chest"/>
    <child link="neck_1"/>
    <limit effort="50000" lower="-0.698131700798" upper="0.383972435439" velocity="50000"/>
    <dynamics damping="1.0" friction="0.0"/>
  </joint>
  <link name="neck_2">
    <inertial>
      <origin xyz="-8.8573009265e-05 0.035225 -0.01954527" rpy="0 0 0"/>
      <mass value="0.177087"/>
      <inertia ixx="0.01" ixy="-5.25591e-07" ixz="4.68307e-07" iyy="0.01" iyz="9.81476e-06" izz="0.01"/>
    </inertial>
    <visual>
      <origin xyz="0 -0.089497 -0.05030077" rpy="0 0 0"/>
      <geometry>
        <mesh filename="package://iCub/meshes/simmechanics/sim_sea_2-5_neck_2_prt-binary.stl" scale="0.001 0.001 0.001"/>
      </geometry>
      <material name="black">
        <color rgba="0 0 0 1"/>
      </material>
    </visual>
    <collision>
      <origin xyz="0 -0.089497 -0.05030077" rpy="0 0 0"/>
      <geometry>
        <mesh filename="package://iCub/meshes/simmechanics/sim_sea_2-5_neck_2_prt-binary.stl" scale="0.001 0.001 0.001"/>
      </geometry>
    </collision>
  </link>
  <joint name="neck_roll" type="revolute">
    <origin xyz="0.0142999998093 0.0095 0.02079997" rpy="0 0 0"/>
    <axis xyz="0.0 0.0 1.0"/>
    <parent link="neck_1"/>
    <child link="neck_2"/>
    <limit effort="50000" lower="-0.349065850399" upper="0.349065850399" velocity="50000"/>
    <dynamics damping="1.0" friction="0.0"/>
  </joint>
  <link name="head">
    <inertial>
      <origin xyz="-0.000574157809265 0.113511 -0.0075392" rpy="0 0 0"/>
      <mass value="1.50691"/>
      <inertia ixx="0.00680478" ixy="-1.60267e-05" ixz="7.28166e-05" iyy="0.00634736" iyz="0.000292091" izz="0.00478116"/>
    </inertial>
    <visual>
      <origin xyz="0 -0.067153 -0.0295008" rpy="0 0 0"/>
      <geometry>
        <mesh filename="package://iCub/meshes/simmechanics/sim_sea_2-5_head_prt-binary.stl" scale="0.001 0.001 0.001"/>
      </geometry>
      <material name="red">
        <color rgba="1 0 0 1"/>
      </material>
    </visual>
    <collision>
      <origin xyz="0 -0.067153 -0.0295008" rpy="0 0 0"/>
      <geometry>
        <mesh filename="package://iCub/meshes/simmechanics/sim_sea_2-5_head_prt-binary.stl" scale="0.001 0.001 0.001"/>
      </geometry>
    </collision>
  </link>
  <joint name="neck_yaw" type="revolute">
    <origin xyz="0 -0.022344 -0.02079997" rpy="0 0 0"/>
    <axis xyz="0.0 1.0 0.0"/>
    <parent link="neck_2"/>
    <child link="head"/>
    <limit effort="50000" lower="-0.872664625997" upper="0.872664625997" velocity="50000"/>
    <dynamics damping="1.0" friction="0.0"/>
  </joint>
  <link name="imu_frame"/>
  <joint name="imu_frame_fixed_joint" type="fixed">
    <origin xyz="0.00950000019074 0.133444 0.0093" rpy="-1.57079632679 1.57079632679 0"/>
    <parent link="head"/>
    <child link="imu_frame"/>
    <dynamics damping="0.1"/>
  </joint>
<link name="base_link"/>
 <!--  <link name="base_link">
   <inertial>
     <origin xyz="0.00001 0.00001 0.00001" rpy="0 0 0"/>
     <mass value="0.00001"/>
     <inertia ixx="0.00001" ixy="0.00001" ixz="0.00001" iyy="0.00001" iyz="0" izz="0"/>
   </inertial>
   <visual>
     <origin xyz="0.00001 0.00001 0.00001" rpy="0 0 0"/>
     <geometry>
       <box size="0.2 0.1 0.05" />
     </geometry>
     <material name="blue">
       <color rgba="0 0 1 1"/>
     </material>
   </visual>
  <visual>
    <origin xyz="0.13 0.00001 0.00001" rpy="0 0 0"/>
    <geometry>
      <box size="0.04 0.04 0.04" />
    </geometry>
    <material name="red">
      <color rgba="1 0 0 1"/>
    </material>
     </visual>

    <collision>
     <origin xyz="0.00001 0.00001 0.00001" rpy="0 0 0"/>
     <geometry>
       <box size="0.2 0.1 0.05" />
     </geometry>
   </collision>
 </link>
 -->
  <joint name="base_fixed_joint" type="fixed">
  <origin xyz="0 0 0" rpy="0 0 0"/>
  <axis xyz="0 0 0"/>
  <parent link="base_link"/>
  <child link="root_link"/>
</joint>
  <link name="l_foot_dh_frame"/>
  <joint name="l_foot_dh_frame_fixed_joint" type="fixed">
  <origin xyz="0.0 0 0.004" rpy="0 1.5708 0"/>
  <axis xyz="0 0 0"/>
  <parent link="l_foot"/>
  <child link="l_foot_dh_frame"/>
</joint>
  <link name="r_foot_dh_frame"/>
  <joint name="r_foot_dh_frame_fixed_joint" type="fixed">
  <origin xyz="0.0 0 0.004" rpy="0 1.5708 0"/>
  <axis xyz="0 0 0"/>
  <parent link="r_foot"/>
  <child link="r_foot_dh_frame"/>
</joint>
  <gazebo reference="r_arm_ft_sensor">
  <disableFixedJointLumping>true</disableFixedJointLumping>
</gazebo>
  <gazebo reference="l_arm_ft_sensor">
  <disableFixedJointLumping>true</disableFixedJointLumping>
</gazebo>
  <gazebo reference="r_leg_ft_sensor">
  <disableFixedJointLumping>true</disableFixedJointLumping>
</gazebo>
  <gazebo reference="l_leg_ft_sensor">
  <disableFixedJointLumping>true</disableFixedJointLumping>
</gazebo>
  <gazebo reference="r_foot_ft_sensor">
  <disableFixedJointLumping>true</disableFixedJointLumping>
</gazebo>
  <gazebo reference="l_foot_ft_sensor">
  <disableFixedJointLumping>true</disableFixedJointLumping>
</gazebo>
  <gazebo reference="l_foot">
  <collision> <surface> <bounce>
    <restitution_coefficient>0</restitution_coefficient>
    <threshold>100000</threshold>
  </bounce> </surface> </collision>
  <maxContacts>4</maxContacts>
  <kp>18000000</kp>
  <kd>100</kd>
  <maxVel>100</maxVel>
  <minDepth>0.0001</minDepth>
  <mu1>1</mu1>
  <mu2>1</mu2>
  <fdir1>0 0 0</fdir1>
</gazebo>
  <gazebo reference="r_foot">
  <collision> <surface> <bounce>
    <restitution_coefficient>0</restitution_coefficient>
    <threshold>100000</threshold>
  </bounce> </surface> </collision>
  <maxContacts>4</maxContacts>
  <kp>18000000</kp>
  <kd>100</kd>
  <maxVel>100</maxVel>
  <minDepth>0.0001</minDepth>
  <mu1>1</mu1>
  <mu2>1</mu2>
  <fdir1>0 0 0</fdir1>
</gazebo>
  <gazebo>
<plugin name="iCub_yarp_gazebo_plugin_ACCpart" filename="libgazebo_yarp_distributedinertials.so">
  <yarpConfigurationFile>model://iCub/conf/MTB/gazebo_icub_left_leg_mtb.ini</yarpConfigurationFile>
</plugin>
<plugin name="iCub_yarp_gazebo_plugin_ACCpart" filename="libgazebo_yarp_distributedinertials.so">
  <yarpConfigurationFile>model://iCub/conf/MTB/gazebo_icub_right_leg_mtb.ini</yarpConfigurationFile>
</plugin>
<plugin name="iCub_yarp_gazebo_plugin_ACCpart" filename="libgazebo_yarp_distributedinertials.so">
  <yarpConfigurationFile>model://iCub/conf/MTB/gazebo_icub_left_arm_mtb.ini</yarpConfigurationFile>
</plugin>
<plugin name="iCub_yarp_gazebo_plugin_ACCpart" filename="libgazebo_yarp_distributedinertials.so">
  <yarpConfigurationFile>model://iCub/conf/MTB/gazebo_icub_right_arm_mtb.ini</yarpConfigurationFile>
</plugin>
<plugin name="iCub_yarp_gazebo_plugin_ACCpart" filename="libgazebo_yarp_distributedinertials.so">
  <yarpConfigurationFile>model://iCub/conf/MTB/gazebo_icub_torso_mtb.ini</yarpConfigurationFile>
</plugin>
<plugin name="controlboard_torso" filename="libgazebo_yarp_controlboard.so">
  <yarpConfigurationFile>model://iCub/conf/gazebo_icub_torso.ini</yarpConfigurationFile>
</plugin>
<plugin name="controlboard_head_without_eyes" filename="libgazebo_yarp_controlboard.so">
  <yarpConfigurationFile>model://iCub/conf/gazebo_icub_head_without_eyes.ini</yarpConfigurationFile>
</plugin>
<plugin name="controlboard_left_arm_no_hand" filename="libgazebo_yarp_controlboard.so">
  <yarpConfigurationFile>model://iCub/conf/gazebo_icub_left_arm_no_hand_for_no_hand_model.ini</yarpConfigurationFile>
  <initialConfiguration>-0.52 0.52 0 0.785 0 0 0.0</initialConfiguration>
</plugin>
<plugin name="controlboard_right_arm_no_hand" filename="libgazebo_yarp_controlboard.so">
  <yarpConfigurationFile>model://iCub/conf/gazebo_icub_right_arm_no_hand_for_no_hand_model.ini</yarpConfigurationFile>
  <initialConfiguration>-0.52 0.52 0 0.785 0 0 0.0</initialConfiguration>
</plugin>
<plugin name="controlboard_right_leg" filename="libgazebo_yarp_controlboard.so">
  <yarpConfigurationFile>model://iCub/conf/gazebo_icub_right_leg.ini</yarpConfigurationFile>
</plugin>
<plugin name="controlboard_left_leg" filename="libgazebo_yarp_controlboard.so">
  <yarpConfigurationFile>model://iCub/conf/gazebo_icub_left_leg.ini</yarpConfigurationFile>
</plugin>
<plugin name="apply_external_wrench" filename="libgazebo_yarp_externalwrench.so">
  <robotNamefromConfigFile>model://iCub/conf/gazebo_icub_robotname.ini</robotNamefromConfigFile>
</plugin>
</gazebo>
  <gazebo reference="r_hip_pitch">
   <implicitSpringDamper>1</implicitSpringDamper>
</gazebo>
  <gazebo reference="r_hip_roll">
   <implicitSpringDamper>1</implicitSpringDamper>
</gazebo>
  <gazebo reference="r_hip_yaw">
   <implicitSpringDamper>1</implicitSpringDamper>
</gazebo>
  <gazebo reference="r_knee">
   <implicitSpringDamper>1</implicitSpringDamper>
</gazebo>
  <gazebo reference="r_ankle_pitch">
   <implicitSpringDamper>1</implicitSpringDamper>
</gazebo>
  <gazebo reference="r_ankle_roll">
   <implicitSpringDamper>1</implicitSpringDamper>
</gazebo>
  <gazebo reference="l_hip_pitch">
   <implicitSpringDamper>1</implicitSpringDamper>
</gazebo>
  <gazebo reference="l_hip_roll">
   <implicitSpringDamper>1</implicitSpringDamper>
</gazebo>
  <gazebo reference="l_hip_yaw">
   <implicitSpringDamper>1</implicitSpringDamper>
</gazebo>
  <gazebo reference="l_knee">
   <implicitSpringDamper>1</implicitSpringDamper>
</gazebo>
  <gazebo reference="l_ankle_pitch">
   <implicitSpringDamper>1</implicitSpringDamper>
</gazebo>
  <gazebo reference="l_ankle_roll">
   <implicitSpringDamper>1</implicitSpringDamper>
</gazebo>
  <gazebo reference="torso_pitch">
   <implicitSpringDamper>1</implicitSpringDamper>
</gazebo>
  <gazebo reference="torso_roll">
   <implicitSpringDamper>1</implicitSpringDamper>
</gazebo>
  <gazebo reference="torso_yaw">
   <implicitSpringDamper>1</implicitSpringDamper>
</gazebo>
  <gazebo reference="r_shoulder_pitch">
   <implicitSpringDamper>1</implicitSpringDamper>
</gazebo>
  <gazebo reference="r_shoulder_roll">
   <implicitSpringDamper>1</implicitSpringDamper>
</gazebo>
  <gazebo reference="r_shoulder_yaw">
   <implicitSpringDamper>1</implicitSpringDamper>
</gazebo>
  <gazebo reference="r_elbow">
   <implicitSpringDamper>1</implicitSpringDamper>
</gazebo>
  <gazebo reference="r_wrist_prosup">
   <implicitSpringDamper>1</implicitSpringDamper>
</gazebo>
  <gazebo reference="r_wrist_pitch">
   <implicitSpringDamper>1</implicitSpringDamper>
</gazebo>
  <gazebo reference="r_wrist_yaw">
   <implicitSpringDamper>1</implicitSpringDamper>
</gazebo>
  <gazebo reference="l_shoulder_pitch">
   <implicitSpringDamper>1</implicitSpringDamper>
</gazebo>
  <gazebo reference="l_shoulder_roll">
   <implicitSpringDamper>1</implicitSpringDamper>
</gazebo>
  <gazebo reference="l_shoulder_yaw">
   <implicitSpringDamper>1</implicitSpringDamper>
</gazebo>
  <gazebo reference="l_elbow">
   <implicitSpringDamper>1</implicitSpringDamper>
</gazebo>
  <gazebo reference="l_wrist_prosup">
   <implicitSpringDamper>1</implicitSpringDamper>
</gazebo>
  <gazebo reference="l_wrist_pitch">
   <implicitSpringDamper>1</implicitSpringDamper>
</gazebo>
  <gazebo reference="l_wrist_yaw">
   <implicitSpringDamper>1</implicitSpringDamper>
</gazebo>
  <gazebo reference="neck_pitch">
   <implicitSpringDamper>1</implicitSpringDamper>
</gazebo>
  <gazebo reference="neck_roll">
   <implicitSpringDamper>1</implicitSpringDamper>
</gazebo>
  <gazebo reference="neck_yaw">
   <implicitSpringDamper>1</implicitSpringDamper>
</gazebo>
  <gazebo reference="l_leg_ft_sensor">
    <sensor name="l_leg_ft_sensor" type="force_torque">
      <always_on>1</always_on>
      <update_rate>100</update_rate>
      <force_torque>
        <frame>child</frame>
        <measure_direction>child_to_parent</measure_direction>
      </force_torque>
      <plugin name="left_leg_ft_plugin" filename="libgazebo_yarp_forcetorque.so">
  <yarpConfigurationFile>model://iCub/conf/FT/gazebo_icub_left_leg_ft.ini</yarpConfigurationFile>
</plugin>
    </sensor>
  </gazebo>
  <sensor name="l_leg_ft_sensor" type="force_torque">
    <parent joint="l_leg_ft_sensor"/>
    <force_torque>
      <frame>child</frame>
      <measure_direction>child_to_parent</measure_direction>
    </force_torque>
  </sensor>
  <gazebo reference="r_leg_ft_sensor">
    <sensor name="r_leg_ft_sensor" type="force_torque">
      <always_on>1</always_on>
      <update_rate>100</update_rate>
      <force_torque>
        <frame>child</frame>
        <measure_direction>child_to_parent</measure_direction>
      </force_torque>
      <plugin name="right_leg_ft_plugin" filename="libgazebo_yarp_forcetorque.so">
  <yarpConfigurationFile>model://iCub/conf/FT/gazebo_icub_right_leg_ft.ini</yarpConfigurationFile>
</plugin>
    </sensor>
  </gazebo>
  <sensor name="r_leg_ft_sensor" type="force_torque">
    <parent joint="r_leg_ft_sensor"/>
    <force_torque>
      <frame>child</frame>
      <measure_direction>child_to_parent</measure_direction>
    </force_torque>
  </sensor>
  <gazebo reference="l_foot_ft_sensor">
    <sensor name="l_foot_ft_sensor" type="force_torque">
      <always_on>1</always_on>
      <update_rate>100</update_rate>
      <force_torque>
        <frame>child</frame>
        <measure_direction>child_to_parent</measure_direction>
      </force_torque>
      <plugin name="left_foot_ft_plugin" filename="libgazebo_yarp_forcetorque.so">
  <yarpConfigurationFile>model://iCub/conf/FT/gazebo_icub_left_foot_ft.ini</yarpConfigurationFile>
</plugin>
    </sensor>
  </gazebo>
  <sensor name="l_foot_ft_sensor" type="force_torque">
    <parent joint="l_foot_ft_sensor"/>
    <force_torque>
      <frame>child</frame>
      <measure_direction>child_to_parent</measure_direction>
    </force_torque>
  </sensor>
  <gazebo reference="r_foot_ft_sensor">
    <sensor name="r_foot_ft_sensor" type="force_torque">
      <always_on>1</always_on>
      <update_rate>100</update_rate>
      <force_torque>
        <frame>child</frame>
        <measure_direction>child_to_parent</measure_direction>
      </force_torque>
      <plugin name="right_foot_ft_plugin" filename="libgazebo_yarp_forcetorque.so">
  <yarpConfigurationFile>model://iCub/conf/FT/gazebo_icub_right_foot_ft.ini</yarpConfigurationFile>
</plugin>
    </sensor>
  </gazebo>
  <sensor name="r_foot_ft_sensor" type="force_torque">
    <parent joint="r_foot_ft_sensor"/>
    <force_torque>
      <frame>child</frame>
      <measure_direction>child_to_parent</measure_direction>
    </force_torque>
  </sensor>
  <gazebo reference="l_arm_ft_sensor">
    <sensor name="l_arm_ft_sensor" type="force_torque">
      <always_on>1</always_on>
      <update_rate>100</update_rate>
      <force_torque>
        <frame>child</frame>
        <measure_direction>child_to_parent</measure_direction>
      </force_torque>
      <plugin name="left_arm_ft_plugin" filename="libgazebo_yarp_forcetorque.so">
  <yarpConfigurationFile>model://iCub/conf/FT/gazebo_icub_left_arm_ft.ini</yarpConfigurationFile>
</plugin>
    </sensor>
  </gazebo>
  <sensor name="l_arm_ft_sensor" type="force_torque">
    <parent joint="l_arm_ft_sensor"/>
    <force_torque>
      <frame>child</frame>
      <measure_direction>child_to_parent</measure_direction>
    </force_torque>
  </sensor>
  <gazebo reference="r_arm_ft_sensor">
    <sensor name="r_arm_ft_sensor" type="force_torque">
      <always_on>1</always_on>
      <update_rate>100</update_rate>
      <force_torque>
        <frame>child</frame>
        <measure_direction>child_to_parent</measure_direction>
      </force_torque>
      <plugin name="right_arm_ft_plugin" filename="libgazebo_yarp_forcetorque.so">
  <yarpConfigurationFile>model://iCub/conf/FT/gazebo_icub_right_arm_ft.ini</yarpConfigurationFile>
</plugin>
    </sensor>
  </gazebo>
  <sensor name="r_arm_ft_sensor" type="force_torque">
    <parent joint="r_arm_ft_sensor"/>
    <force_torque>
      <frame>child</frame>
      <measure_direction>child_to_parent</measure_direction>
    </force_torque>
  </sensor>
  <gazebo reference="head">
    <sensor name="head_imu_acc_1x1" type="imu">
      <always_on>1</always_on>
      <update_rate>100</update_rate>
      <pose>0.00950000019074 0.133444 0.0093 -1.57079632679 1.57079632679 0.0</pose>
      <plugin name="iCub_yarp_gazebo_plugin_IMU" filename="libgazebo_yarp_imu.so">
    <yarpConfigurationFile>model://iCub/conf/gazebo_icub_inertial.ini</yarpConfigurationFile>
</plugin>
    </sensor>
  </gazebo>
  <sensor name="head_imu_acc_1x1" type="accelerometer">
    <parent link="head"/>
    <origin rpy="-1.57079632679 1.57079632679 0.0" xyz="0.00950000019074 0.133444 0.0093"/>
  </sensor>
  <gazebo reference="root_link">
    <sensor name="root_link_ems_acc_eb5" type="imu">
      <always_on>1</always_on>
      <update_rate>100</update_rate>
      <pose>0.0493308 -0.0125771 -0.115691 -3.14159265359 1.29154404503 3.14159265359</pose>
      <plugin name="iCub_yarp_gazebo_plugin_ACC" filename="libgazebo_yarp_inertial.so"/>
    </sensor>
  </gazebo>
  <sensor name="root_link_ems_acc_eb5" type="accelerometer">
    <parent link="root_link"/>
    <origin rpy="-3.14159265359 1.29154404503 3.14159265359" xyz="0.0493308 -0.0125771 -0.115691"/>
  </sensor>
  <gazebo reference="root_link">
    <sensor name="root_link_ems_gyro_eb5" type="imu">
      <always_on>1</always_on>
      <update_rate>100</update_rate>
      <pose>0.0493308 -0.0125771 -0.115691 -3.14159265359 1.29154404503 3.14159265359</pose>
    </sensor>
  </gazebo>
  <sensor name="root_link_ems_gyro_eb5" type="gyroscope">
    <parent link="root_link"/>
    <origin rpy="-3.14159265359 1.29154404503 3.14159265359" xyz="0.0493308 -0.0125771 -0.115691"/>
  </sensor>
  <gazebo reference="chest">
    <sensor name="chest_ems_acc_eb1" type="imu">
      <always_on>1</always_on>
      <update_rate>100</update_rate>
      <pose>0.0647855001907 0.064043 -0.0647091 3.1415169123 -0.261799309122 0.000292641880255</pose>
      <plugin name="iCub_yarp_gazebo_plugin_ACC" filename="libgazebo_yarp_inertial.so"/>
    </sensor>
  </gazebo>
  <sensor name="chest_ems_acc_eb1" type="accelerometer">
    <parent link="chest"/>
    <origin rpy="3.1415169123 -0.261799309122 0.000292641880255" xyz="0.0647855001907 0.064043 -0.0647091"/>
  </sensor>
  <gazebo reference="chest">
    <sensor name="chest_ems_gyro_eb1" type="imu">
      <always_on>1</always_on>
      <update_rate>100</update_rate>
      <pose>0.0692016001907 0.064548 -0.0635258 3.1415169123 -0.261799309122 0.000292641880255</pose>
    </sensor>
  </gazebo>
  <sensor name="chest_ems_gyro_eb1" type="gyroscope">
    <parent link="chest"/>
    <origin rpy="3.1415169123 -0.261799309122 0.000292641880255" xyz="0.0692016001907 0.064548 -0.0635258"/>
  </sensor>
  <gazebo reference="chest">
    <sensor name="chest_ems_acc_eb2" type="imu">
      <always_on>1</always_on>
      <update_rate>100</update_rate>
      <pose>0.0204533001907 0.088063 -0.0641645 3.14159050104 0.261799319819 3.14158433678</pose>
      <plugin name="iCub_yarp_gazebo_plugin_ACC" filename="libgazebo_yarp_inertial.so"/>
    </sensor>
  </gazebo>
  <sensor name="chest_ems_acc_eb2" type="accelerometer">
    <parent link="chest"/>
    <origin rpy="3.14159050104 0.261799319819 3.14158433678" xyz="0.0204533001907 0.088063 -0.0641645"/>
  </sensor>
  <gazebo reference="chest">
    <sensor name="chest_ems_gyro_eb2" type="imu">
      <always_on>1</always_on>
      <update_rate>100</update_rate>
      <pose>0.0160371001907 0.087559 -0.0653479 3.14159050104 0.261799319819 3.14158433678</pose>
    </sensor>
  </gazebo>
  <sensor name="chest_ems_gyro_eb2" type="gyroscope">
    <parent link="chest"/>
    <origin rpy="3.14159050104 0.261799319819 3.14158433678" xyz="0.0160371001907 0.087559 -0.0653479"/>
  </sensor>
  <gazebo reference="chest">
    <sensor name="chest_ems_acc_eb3" type="imu">
      <always_on>1</always_on>
      <update_rate>100</update_rate>
      <pose>-0.0230587998093 0.064019 -0.0758985 3.14110916203 0.261100516471 -0.000309071462555</pose>
      <plugin name="iCub_yarp_gazebo_plugin_ACC" filename="libgazebo_yarp_inertial.so"/>
    </sensor>
  </gazebo>
  <sensor name="chest_ems_acc_eb3" type="accelerometer">
    <parent link="chest"/>
    <origin rpy="3.14110916203 0.261100516471 -0.000309071462555" xyz="-0.0230587998093 0.064019 -0.0758985"/>
  </sensor>
  <gazebo reference="chest">
    <sensor name="chest_ems_gyro_eb3" type="imu">
      <always_on>1</always_on>
      <update_rate>100</update_rate>
      <pose>-0.0186416998093 0.064521 -0.0770785 3.14110916203 0.261100516471 -0.000309071462555</pose>
    </sensor>
  </gazebo>
  <sensor name="chest_ems_gyro_eb3" type="gyroscope">
    <parent link="chest"/>
    <origin rpy="3.14110916203 0.261100516471 -0.000309071462555" xyz="-0.0186416998093 0.064521 -0.0770785"/>
  </sensor>
  <gazebo reference="chest">
    <sensor name="chest_ems_acc_eb4" type="imu">
      <always_on>1</always_on>
      <update_rate>100</update_rate>
      <pose>-0.0621620998093 0.088063 -0.0529887 -3.14159050476 -0.261799319819 3.14158433987</pose>
      <plugin name="iCub_yarp_gazebo_plugin_ACC" filename="libgazebo_yarp_inertial.so"/>
    </sensor>
  </gazebo>
  <sensor name="chest_ems_acc_eb4" type="accelerometer">
    <parent link="chest"/>
    <origin rpy="-3.14159050476 -0.261799319819 3.14158433987" xyz="-0.0621620998093 0.088063 -0.0529887"/>
  </sensor>
  <gazebo reference="chest">
    <sensor name="chest_ems_gyro_eb4" type="imu">
      <always_on>1</always_on>
      <update_rate>100</update_rate>
      <pose>-0.0665783998093 0.087559 -0.0518054 -3.14159050476 -0.261799319819 3.14158433987</pose>
    </sensor>
  </gazebo>
  <sensor name="chest_ems_gyro_eb4" type="gyroscope">
    <parent link="chest"/>
    <origin rpy="-3.14159050476 -0.261799319819 3.14158433987" xyz="-0.0665783998093 0.087559 -0.0518054"/>
  </sensor>
  <gazebo reference="chest">
    <sensor name="chest_mtb_acc_0b7" type="imu">
      <always_on>1</always_on>
      <update_rate>100</update_rate>
      <pose>-0.0607539998093 -0.0017836 0.0442341 0.875167771492 0.116363734392 -1.48597350247</pose>
      <plugin name="iCub_yarp_gazebo_plugin_ACC" filename="libgazebo_yarp_inertial.so"/>
    </sensor>
  </gazebo>
  <sensor name="chest_mtb_acc_0b7" type="accelerometer">
    <parent link="chest"/>
    <origin rpy="0.875167771492 0.116363734392 -1.48597350247" xyz="-0.0607539998093 -0.0017836 0.0442341"/>
  </sensor>
  <gazebo reference="chest">
    <sensor name="chest_mtb_acc_0b8" type="imu">
      <always_on>1</always_on>
      <update_rate>100</update_rate>
      <pose>-0.0457046998093 -0.001846 0.0567427 0.500960084689 0.107313688983 -1.4778325291</pose>
      <plugin name="iCub_yarp_gazebo_plugin_ACC" filename="libgazebo_yarp_inertial.so"/>
    </sensor>
  </gazebo>
  <sensor name="chest_mtb_acc_0b8" type="accelerometer">
    <parent link="chest"/>
    <origin rpy="0.500960084689 0.107313688983 -1.4778325291" xyz="-0.0457046998093 -0.001846 0.0567427"/>
  </sensor>
  <gazebo reference="chest">
    <sensor name="chest_mtb_acc_0b9" type="imu">
      <always_on>1</always_on>
      <update_rate>100</update_rate>
      <pose>0.0439036001907 -0.0017841 0.0577221 -0.500959928973 0.107315404248 -1.66376017469</pose>
      <plugin name="iCub_yarp_gazebo_plugin_ACC" filename="libgazebo_yarp_inertial.so"/>
    </sensor>
  </gazebo>
  <sensor name="chest_mtb_acc_0b9" type="accelerometer">
    <parent link="chest"/>
    <origin rpy="-0.500959928973 0.107315404248 -1.66376017469" xyz="0.0439036001907 -0.0017841 0.0577221"/>
  </sensor>
  <gazebo reference="chest">
    <sensor name="chest_mtb_acc_0b10" type="imu">
      <always_on>1</always_on>
      <update_rate>100</update_rate>
      <pose>0.0594286001907 -0.0018543 0.0457981 -0.875168153475 0.116362025479 -1.65561807505</pose>
      <plugin name="iCub_yarp_gazebo_plugin_ACC" filename="libgazebo_yarp_inertial.so"/>
    </sensor>
  </gazebo>
  <sensor name="chest_mtb_acc_0b10" type="accelerometer">
    <parent link="chest"/>
    <origin rpy="-0.875168153475 0.116362025479 -1.65561807505" xyz="0.0594286001907 -0.0018543 0.0457981"/>
  </sensor>
  <gazebo reference="r_upper_arm">
    <sensor name="r_upper_arm_mtb_acc_2b10" type="imu">
      <always_on>1</always_on>
      <update_rate>100</update_rate>
      <pose>-0.0412194 0.029588 0.0295279 1.57079546365 1.57078381225 -2.68257161165</pose>
      <plugin name="iCub_yarp_gazebo_plugin_ACC" filename="libgazebo_yarp_inertial.so"/>
    </sensor>
  </gazebo>
  <sensor name="r_upper_arm_mtb_acc_2b10" type="accelerometer">
    <parent link="r_upper_arm"/>
    <origin rpy="1.57079546365 1.57078381225 -2.68257161165" xyz="-0.0412194 0.029588 0.0295279"/>
  </sensor>
  <gazebo reference="r_upper_arm">
    <sensor name="r_upper_arm_mtb_acc_2b11" type="imu">
      <always_on>1</always_on>
      <update_rate>100</update_rate>
      <pose>-0.0430568 0.02868 0.0760604 -1.57079614695 -1.57050350741 0.459021725219</pose>
      <plugin name="iCub_yarp_gazebo_plugin_ACC" filename="libgazebo_yarp_inertial.so"/>
    </sensor>
  </gazebo>
  <sensor name="r_upper_arm_mtb_acc_2b11" type="accelerometer">
    <parent link="r_upper_arm"/>
    <origin rpy="-1.57079614695 -1.57050350741 0.459021725219" xyz="-0.0430568 0.02868 0.0760604"/>
  </sensor>
  <gazebo reference="r_upper_arm">
    <sensor name="r_upper_arm_mtb_acc_2b12" type="imu">
      <always_on>1</always_on>
      <update_rate>100</update_rate>
      <pose>-0.0430554 0.028681 0.0049922 -1.11177442168 -1.57079632679 0.0</pose>
      <plugin name="iCub_yarp_gazebo_plugin_ACC" filename="libgazebo_yarp_inertial.so"/>
    </sensor>
  </gazebo>
  <sensor name="r_upper_arm_mtb_acc_2b12" type="accelerometer">
    <parent link="r_upper_arm"/>
    <origin rpy="-1.11177442168 -1.57079632679 0.0" xyz="-0.0430554 0.028681 0.0049922"/>
  </sensor>
  <gazebo reference="r_upper_arm">
    <sensor name="r_upper_arm_mtb_acc_2b13" type="imu">
      <always_on>1</always_on>
      <update_rate>100</update_rate>
      <pose>0.010593237 0.02835 -0.010738 1.57079632702 -0.000214520362041 2.47803674451</pose>
      <plugin name="iCub_yarp_gazebo_plugin_ACC" filename="libgazebo_yarp_inertial.so"/>
    </sensor>
  </gazebo>
  <sensor name="r_upper_arm_mtb_acc_2b13" type="accelerometer">
    <parent link="r_upper_arm"/>
    <origin rpy="1.57079632702 -0.000214520362041 2.47803674451" xyz="0.010593237 0.02835 -0.010738"/>
  </sensor>
  <gazebo reference="r_forearm">
    <sensor name="r_forearm_mtb_acc_2b7" type="imu">
      <always_on>1</always_on>
      <update_rate>100</update_rate>
      <pose>-0.0768727847342 0.005497 -0.0110479126068 0.26179949998 0.000370413042328 1.57125816863</pose>
      <plugin name="iCub_yarp_gazebo_plugin_ACC" filename="libgazebo_yarp_inertial.so"/>
    </sensor>
  </gazebo>
  <sensor name="r_forearm_mtb_acc_2b7" type="accelerometer">
    <parent link="r_forearm"/>
    <origin rpy="0.26179949998 0.000370413042328 1.57125816863" xyz="-0.0768727847342 0.005497 -0.0110479126068"/>
  </sensor>
  <gazebo reference="r_forearm">
    <sensor name="r_forearm_mtb_acc_2b8" type="imu">
      <always_on>1</always_on>
      <update_rate>100</update_rate>
      <pose>-0.0514186150796 0.015786 0.0407521537277 -0.661143946092 0.147825248461 0.092070114703</pose>
      <plugin name="iCub_yarp_gazebo_plugin_ACC" filename="libgazebo_yarp_inertial.so"/>
    </sensor>
  </gazebo>
  <sensor name="r_forearm_mtb_acc_2b8" type="accelerometer">
    <parent link="r_forearm"/>
    <origin rpy="-0.661143946092 0.147825248461 0.092070114703" xyz="-0.0514186150796 0.015786 0.0407521537277"/>
  </sensor>
  <gazebo reference="r_forearm">
    <sensor name="r_forearm_mtb_acc_2b9" type="imu">
      <always_on>1</always_on>
      <update_rate>100</update_rate>
      <pose>-0.0216379956759 0.027924 -0.0132490254018 -1.76682626732 0.261191225646 0.054048344372</pose>
      <plugin name="iCub_yarp_gazebo_plugin_ACC" filename="libgazebo_yarp_inertial.so"/>
    </sensor>
  </gazebo>
  <sensor name="r_forearm_mtb_acc_2b9" type="accelerometer">
    <parent link="r_forearm"/>
    <origin rpy="-1.76682626732 0.261191225646 0.054048344372" xyz="-0.0216379956759 0.027924 -0.0132490254018"/>
  </sensor>
  <gazebo reference="l_upper_arm">
    <sensor name="l_upper_arm_mtb_acc_1b10" type="imu">
      <always_on>1</always_on>
      <update_rate>100</update_rate>
      <pose>-0.0430554 -0.028681 0.0295279 -1.57079650664 -1.57050350741 2.68257092837</pose>
      <plugin name="iCub_yarp_gazebo_plugin_ACC" filename="libgazebo_yarp_inertial.so"/>
    </sensor>
  </gazebo>
  <sensor name="l_upper_arm_mtb_acc_1b10" type="accelerometer">
    <parent link="l_upper_arm"/>
    <origin rpy="-1.57079650664 -1.57050350741 2.68257092837" xyz="-0.0430554 -0.028681 0.0295279"/>
  </sensor>
  <gazebo reference="l_upper_arm">
    <sensor name="l_upper_arm_mtb_acc_1b11" type="imu">
      <always_on>1</always_on>
      <update_rate>100</update_rate>
      <pose>-0.0412181 -0.029589 0.0760604 -1.57079650664 -1.57050350741 2.68257092837</pose>
      <plugin name="iCub_yarp_gazebo_plugin_ACC" filename="libgazebo_yarp_inertial.so"/>
    </sensor>
  </gazebo>
  <sensor name="l_upper_arm_mtb_acc_1b11" type="accelerometer">
    <parent link="l_upper_arm"/>
    <origin rpy="-1.57079650664 -1.57050350741 2.68257092837" xyz="-0.0412181 -0.029589 0.0760604"/>
  </sensor>
  <gazebo reference="l_upper_arm">
    <sensor name="l_upper_arm_mtb_acc_1b12" type="imu">
      <always_on>1</always_on>
      <update_rate>100</update_rate>
      <pose>-0.0412194 -0.029588 0.0049921 -1.5707971899 -1.57078381225 2.68257161159</pose>
      <plugin name="iCub_yarp_gazebo_plugin_ACC" filename="libgazebo_yarp_inertial.so"/>
    </sensor>
  </gazebo>
  <sensor name="l_upper_arm_mtb_acc_1b12" type="accelerometer">
    <parent link="l_upper_arm"/>
    <origin rpy="-1.5707971899 -1.57078381225 2.68257161159" xyz="-0.0412194 -0.029588 0.0049921"/>
  </sensor>
  <gazebo reference="l_upper_arm">
    <sensor name="l_upper_arm_mtb_acc_1b13" type="imu">
      <always_on>1</always_on>
      <update_rate>100</update_rate>
      <pose>0.010592709 -0.028351 -0.0086914 -1.57079632657 0.000214520362042 -2.47803674451</pose>
      <plugin name="iCub_yarp_gazebo_plugin_ACC" filename="libgazebo_yarp_inertial.so"/>
    </sensor>
  </gazebo>
  <sensor name="l_upper_arm_mtb_acc_1b13" type="accelerometer">
    <parent link="l_upper_arm"/>
    <origin rpy="-1.57079632657 0.000214520362042 -2.47803674451" xyz="0.010592709 -0.028351 -0.0086914"/>
  </sensor>
  <gazebo reference="l_forearm">
    <sensor name="l_forearm_mtb_acc_1b7" type="imu">
      <always_on>1</always_on>
      <update_rate>100</update_rate>
      <pose>0.0768727847342 -0.005483 -0.0110479126068 0.26179949998 0.000370413042328 -1.57033448496</pose>
      <plugin name="iCub_yarp_gazebo_plugin_ACC" filename="libgazebo_yarp_inertial.so"/>
    </sensor>
  </gazebo>
  <sensor name="l_forearm_mtb_acc_1b7" type="accelerometer">
    <parent link="l_forearm"/>
    <origin rpy="0.26179949998 0.000370413042328 -1.57033448496" xyz="0.0768727847342 -0.005483 -0.0110479126068"/>
  </sensor>
  <gazebo reference="l_forearm">
    <sensor name="l_forearm_mtb_acc_1b8" type="imu">
      <always_on>1</always_on>
      <update_rate>100</update_rate>
      <pose>0.0514241740607 -0.0180279 0.0407507258436 -0.661143946092 0.147825248461 -3.04952253889</pose>
      <plugin name="iCub_yarp_gazebo_plugin_ACC" filename="libgazebo_yarp_inertial.so"/>
    </sensor>
  </gazebo>
  <sensor name="l_forearm_mtb_acc_1b8" type="accelerometer">
    <parent link="l_forearm"/>
    <origin rpy="-0.661143946092 0.147825248461 -3.04952253889" xyz="0.0514241740607 -0.0180279 0.0407507258436"/>
  </sensor>
  <gazebo reference="l_forearm">
    <sensor name="l_forearm_mtb_acc_1b9" type="imu">
      <always_on>1</always_on>
      <update_rate>100</update_rate>
      <pose>0.0220991874996 0.025657 -0.0151174243212 1.76682134218 0.261099829847 3.08752548202</pose>
      <plugin name="iCub_yarp_gazebo_plugin_ACC" filename="libgazebo_yarp_inertial.so"/>
    </sensor>
  </gazebo>
  <sensor name="l_forearm_mtb_acc_1b9" type="accelerometer">
    <parent link="l_forearm"/>
    <origin rpy="1.76682134218 0.261099829847 3.08752548202" xyz="0.0220991874996 0.025657 -0.0151174243212"/>
  </sensor>
  <gazebo reference="r_upper_leg">
    <sensor name="r_upper_leg_ems_acc_eb8" type="imu">
      <always_on>1</always_on>
      <update_rate>100</update_rate>
      <pose>-0.0125751 0.0404072 -0.040227 1.57079632679 1.57079632679 0.0</pose>
      <plugin name="iCub_yarp_gazebo_plugin_ACC" filename="libgazebo_yarp_inertial.so"/>
    </sensor>
  </gazebo>
  <sensor name="r_upper_leg_ems_acc_eb8" type="accelerometer">
    <parent link="r_upper_leg"/>
    <origin rpy="1.57079632679 1.57079632679 0.0" xyz="-0.0125751 0.0404072 -0.040227"/>
  </sensor>
  <gazebo reference="r_upper_leg">
    <sensor name="r_upper_leg_ems_acc_eb11" type="imu">
      <always_on>1</always_on>
      <update_rate>100</update_rate>
      <pose>-0.0125771 -0.040407 -0.083407 1.57079632679 1.57079632679 0.0</pose>
      <plugin name="iCub_yarp_gazebo_plugin_ACC" filename="libgazebo_yarp_inertial.so"/>
    </sensor>
  </gazebo>
  <sensor name="r_upper_leg_ems_acc_eb11" type="accelerometer">
    <parent link="r_upper_leg"/>
    <origin rpy="1.57079632679 1.57079632679 0.0" xyz="-0.0125771 -0.040407 -0.083407"/>
  </sensor>
  <gazebo reference="r_upper_leg">
    <sensor name="r_upper_leg_ems_gyro_eb8" type="imu">
      <always_on>1</always_on>
      <update_rate>100</update_rate>
      <pose>-0.013079 0.0404072 -0.035655 1.57079632679 1.57079632679 0.0</pose>
    </sensor>
  </gazebo>
  <sensor name="r_upper_leg_ems_gyro_eb8" type="gyroscope">
    <parent link="r_upper_leg"/>
    <origin rpy="1.57079632679 1.57079632679 0.0" xyz="-0.013079 0.0404072 -0.035655"/>
  </sensor>
  <gazebo reference="r_upper_leg">
    <sensor name="r_upper_leg_ems_gyro_eb11" type="imu">
      <always_on>1</always_on>
      <update_rate>100</update_rate>
      <pose>-0.013081 -0.040407 -0.087979 1.57079632679 1.57079632679 0.0</pose>
    </sensor>
  </gazebo>
  <sensor name="r_upper_leg_ems_gyro_eb11" type="gyroscope">
    <parent link="r_upper_leg"/>
    <origin rpy="1.57079632679 1.57079632679 0.0" xyz="-0.013081 -0.040407 -0.087979"/>
  </sensor>
  <gazebo reference="r_upper_leg">
    <sensor name="r_upper_leg_mtb_acc_11b1" type="imu">
      <always_on>1</always_on>
      <update_rate>100</update_rate>
      <pose>0.043588612 -0.030195 0.04894 2.52670843803 -1.57044484253 -0.22287382498</pose>
      <plugin name="iCub_yarp_gazebo_plugin_ACC" filename="libgazebo_yarp_inertial.so"/>
    </sensor>
  </gazebo>
  <sensor name="r_upper_leg_mtb_acc_11b1" type="accelerometer">
    <parent link="r_upper_leg"/>
    <origin rpy="2.52670843803 -1.57044484253 -0.22287382498" xyz="0.043588612 -0.030195 0.04894"/>
  </sensor>
  <gazebo reference="r_upper_leg">
    <sensor name="r_upper_leg_mtb_acc_11b2" type="imu">
      <always_on>1</always_on>
      <update_rate>100</update_rate>
      <pose>0.0539467 -0.0064065 0.039056 -3.12940212057 -1.57038181496 -0.273989852569</pose>
      <plugin name="iCub_yarp_gazebo_plugin_ACC" filename="libgazebo_yarp_inertial.so"/>
    </sensor>
  </gazebo>
  <sensor name="r_upper_leg_mtb_acc_11b2" type="accelerometer">
    <parent link="r_upper_leg"/>
    <origin rpy="-3.12940212057 -1.57038181496 -0.273989852569" xyz="0.0539467 -0.0064065 0.039056"/>
  </sensor>
  <gazebo reference="r_upper_leg">
    <sensor name="r_upper_leg_mtb_acc_11b3" type="imu">
      <always_on>1</always_on>
      <update_rate>100</update_rate>
      <pose>0.0538313 -0.0130214 0.003986 -2.87731085451 -1.5703518031 -0.264281823992</pose>
      <plugin name="iCub_yarp_gazebo_plugin_ACC" filename="libgazebo_yarp_inertial.so"/>
    </sensor>
  </gazebo>
  <sensor name="r_upper_leg_mtb_acc_11b3" type="accelerometer">
    <parent link="r_upper_leg"/>
    <origin rpy="-2.87731085451 -1.5703518031 -0.264281823992" xyz="0.0538313 -0.0130214 0.003986"/>
  </sensor>
  <gazebo reference="r_upper_leg">
    <sensor name="r_upper_leg_mtb_acc_11b4" type="imu">
      <always_on>1</always_on>
      <update_rate>100</update_rate>
      <pose>0.0322719 0.0422675 -0.005045 -1.87390998809 -1.57025771326 -0.0808589029571</pose>
      <plugin name="iCub_yarp_gazebo_plugin_ACC" filename="libgazebo_yarp_inertial.so"/>
    </sensor>
  </gazebo>
  <sensor name="r_upper_leg_mtb_acc_11b4" type="accelerometer">
    <parent link="r_upper_leg"/>
    <origin rpy="-1.87390998809 -1.57025771326 -0.0808589029571" xyz="0.0322719 0.0422675 -0.005045"/>
  </sensor>
  <gazebo reference="r_upper_leg">
    <sensor name="r_upper_leg_mtb_acc_11b5" type="imu">
      <always_on>1</always_on>
      <update_rate>100</update_rate>
      <pose>0.0538313 0.0164786 0.003986 -2.87731085451 -1.5703518031 -0.264281823992</pose>
      <plugin name="iCub_yarp_gazebo_plugin_ACC" filename="libgazebo_yarp_inertial.so"/>
    </sensor>
  </gazebo>
  <sensor name="r_upper_leg_mtb_acc_11b5" type="accelerometer">
    <parent link="r_upper_leg"/>
    <origin rpy="-2.87731085451 -1.5703518031 -0.264281823992" xyz="0.0538313 0.0164786 0.003986"/>
  </sensor>
  <gazebo reference="r_upper_leg">
    <sensor name="r_upper_leg_mtb_acc_11b6" type="imu">
      <always_on>1</always_on>
      <update_rate>100</update_rate>
      <pose>-0.0437518 -0.0157594 -0.026565 1.95410275534e-17 1.5703672368 -3.14159265359</pose>
      <plugin name="iCub_yarp_gazebo_plugin_ACC" filename="libgazebo_yarp_inertial.so"/>
    </sensor>
  </gazebo>
  <sensor name="r_upper_leg_mtb_acc_11b6" type="accelerometer">
    <parent link="r_upper_leg"/>
    <origin rpy="1.95410275534e-17 1.5703672368 -3.14159265359" xyz="-0.0437518 -0.0157594 -0.026565"/>
  </sensor>
  <gazebo reference="r_upper_leg">
    <sensor name="r_upper_leg_mtb_acc_11b7" type="imu">
      <always_on>1</always_on>
      <update_rate>100</update_rate>
      <pose>-0.0437518 0.0162386 -0.026566 0.264252523901 1.57035180662 -2.87734010478</pose>
      <plugin name="iCub_yarp_gazebo_plugin_ACC" filename="libgazebo_yarp_inertial.so"/>
    </sensor>
  </gazebo>
  <sensor name="r_upper_leg_mtb_acc_11b7" type="accelerometer">
    <parent link="r_upper_leg"/>
    <origin rpy="0.264252523901 1.57035180662 -2.87734010478" xyz="-0.0437518 0.0162386 -0.026566"/>
  </sensor>
  <gazebo reference="r_lower_leg">
    <sensor name="r_lower_leg_ems_acc_eb9" type="imu">
      <always_on>1</always_on>
      <update_rate>100</update_rate>
      <pose>0.04351373 0.0138396 -0.092765 -3.14159265359 -1.35262978345 -8.47684971046e-16</pose>
      <plugin name="iCub_yarp_gazebo_plugin_ACC" filename="libgazebo_yarp_inertial.so"/>
    </sensor>
  </gazebo>
  <sensor name="r_lower_leg_ems_acc_eb9" type="accelerometer">
    <parent link="r_lower_leg"/>
    <origin rpy="-3.14159265359 -1.35262978345 -8.47684971046e-16" xyz="0.04351373 0.0138396 -0.092765"/>
  </sensor>
  <gazebo reference="r_lower_leg">
    <sensor name="r_lower_leg_ems_gyro_eb9" type="imu">
      <always_on>1</always_on>
      <update_rate>100</update_rate>
      <pose>0.044503292 0.0143435 -0.088301 -3.14159265359 -1.35262978345 -8.47684971046e-16</pose>
    </sensor>
  </gazebo>
  <sensor name="r_lower_leg_ems_gyro_eb9" type="gyroscope">
    <parent link="r_lower_leg"/>
    <origin rpy="-3.14159265359 -1.35262978345 -8.47684971046e-16" xyz="0.044503292 0.0143435 -0.088301"/>
  </sensor>
  <gazebo reference="r_lower_leg">
    <sensor name="r_lower_leg_mtb_acc_11b8" type="imu">
      <always_on>1</always_on>
      <update_rate>100</update_rate>
      <pose>0.05362922 -0.0151958 -0.004318 -1.57079699431 -1.5706802101 -1.81514182543</pose>
      <plugin name="iCub_yarp_gazebo_plugin_ACC" filename="libgazebo_yarp_inertial.so"/>
    </sensor>
  </gazebo>
  <sensor name="r_lower_leg_mtb_acc_11b8" type="accelerometer">
    <parent link="r_lower_leg"/>
    <origin rpy="-1.57079699431 -1.5706802101 -1.81514182543" xyz="0.05362922 -0.0151958 -0.004318"/>
  </sensor>
  <gazebo reference="r_lower_leg">
    <sensor name="r_lower_leg_mtb_acc_11b9" type="imu">
      <always_on>1</always_on>
      <update_rate>100</update_rate>
      <pose>0.0537517 0.0157229 -0.004318 -1.57079629188 -1.57068021044 -1.2217307215</pose>
      <plugin name="iCub_yarp_gazebo_plugin_ACC" filename="libgazebo_yarp_inertial.so"/>
    </sensor>
  </gazebo>
  <sensor name="r_lower_leg_mtb_acc_11b9" type="accelerometer">
    <parent link="r_lower_leg"/>
    <origin rpy="-1.57079629188 -1.57068021044 -1.2217307215" xyz="0.0537517 0.0157229 -0.004318"/>
  </sensor>
  <gazebo reference="r_lower_leg">
    <sensor name="r_lower_leg_mtb_acc_11b10" type="imu">
      <always_on>1</always_on>
      <update_rate>100</update_rate>
      <pose>0.0278945 -0.042214 -0.043468 1.83259550627 -1.57079632679 0.0</pose>
      <plugin name="iCub_yarp_gazebo_plugin_ACC" filename="libgazebo_yarp_inertial.so"/>
    </sensor>
  </gazebo>
  <sensor name="r_lower_leg_mtb_acc_11b10" type="accelerometer">
    <parent link="r_lower_leg"/>
    <origin rpy="1.83259550627 -1.57079632679 0.0" xyz="0.0278945 -0.042214 -0.043468"/>
  </sensor>
  <gazebo reference="r_lower_leg">
    <sensor name="r_lower_leg_mtb_acc_11b11" type="imu">
      <always_on>1</always_on>
      <update_rate>100</update_rate>
      <pose>0.0164801 0.042249 -0.092958 -1.57079369547 -1.57068021035 -0.261801810497</pose>
      <plugin name="iCub_yarp_gazebo_plugin_ACC" filename="libgazebo_yarp_inertial.so"/>
    </sensor>
  </gazebo>
  <sensor name="r_lower_leg_mtb_acc_11b11" type="accelerometer">
    <parent link="r_lower_leg"/>
    <origin rpy="-1.57079369547 -1.57068021035 -0.261801810497" xyz="0.0164801 0.042249 -0.092958"/>
  </sensor>
  <gazebo reference="r_foot">
    <sensor name="r_foot_mtb_acc_11b12" type="imu">
      <always_on>1</always_on>
      <update_rate>100</update_rate>
      <pose>0.1034794 -0.0008122 -0.001215 1.46487522971e-16 2.22044521133e-16 -1.57079604303</pose>
      <plugin name="iCub_yarp_gazebo_plugin_ACC" filename="libgazebo_yarp_inertial.so"/>
    </sensor>
  </gazebo>
  <sensor name="r_foot_mtb_acc_11b12" type="accelerometer">
    <parent link="r_foot"/>
    <origin rpy="1.46487522971e-16 2.22044521133e-16 -1.57079604303" xyz="0.1034794 -0.0008122 -0.001215"/>
  </sensor>
  <gazebo reference="r_foot">
    <sensor name="r_foot_mtb_acc_11b13" type="imu">
      <always_on>1</always_on>
      <update_rate>100</update_rate>
      <pose>0.0784794 -0.0118122 -0.001215 2.22044604925e-16 2.22044604925e-16 -1.57079632679</pose>
      <plugin name="iCub_yarp_gazebo_plugin_ACC" filename="libgazebo_yarp_inertial.so"/>
    </sensor>
  </gazebo>
  <sensor name="r_foot_mtb_acc_11b13" type="accelerometer">
    <parent link="r_foot"/>
    <origin rpy="2.22044604925e-16 2.22044604925e-16 -1.57079632679" xyz="0.0784794 -0.0118122 -0.001215"/>
  </sensor>
  <gazebo reference="l_upper_leg">
    <sensor name="l_upper_leg_ems_acc_eb6" type="imu">
      <always_on>1</always_on>
      <update_rate>100</update_rate>
      <pose>-0.0125771 -0.0404072 -0.083407 1.57079632679 1.57079632679 0.0</pose>
      <plugin name="iCub_yarp_gazebo_plugin_ACC" filename="libgazebo_yarp_inertial.so"/>
    </sensor>
  </gazebo>
  <sensor name="l_upper_leg_ems_acc_eb6" type="accelerometer">
    <parent link="l_upper_leg"/>
    <origin rpy="1.57079632679 1.57079632679 0.0" xyz="-0.0125771 -0.0404072 -0.083407"/>
  </sensor>
  <gazebo reference="l_upper_leg">
    <sensor name="l_upper_leg_ems_acc_eb10" type="imu">
      <always_on>1</always_on>
      <update_rate>100</update_rate>
      <pose>-0.0125751 0.040407 -0.040227 -1.57079632679 -1.57079632679 0.0</pose>
      <plugin name="iCub_yarp_gazebo_plugin_ACC" filename="libgazebo_yarp_inertial.so"/>
    </sensor>
  </gazebo>
  <sensor name="l_upper_leg_ems_acc_eb10" type="accelerometer">
    <parent link="l_upper_leg"/>
    <origin rpy="-1.57079632679 -1.57079632679 0.0" xyz="-0.0125751 0.040407 -0.040227"/>
  </sensor>
  <gazebo reference="l_upper_leg">
    <sensor name="l_upper_leg_ems_gyro_eb6" type="imu">
      <always_on>1</always_on>
      <update_rate>100</update_rate>
      <pose>-0.013081 -0.0404072 -0.087979 1.57079632679 1.57079632679 0.0</pose>
    </sensor>
  </gazebo>
  <sensor name="l_upper_leg_ems_gyro_eb6" type="gyroscope">
    <parent link="l_upper_leg"/>
    <origin rpy="1.57079632679 1.57079632679 0.0" xyz="-0.013081 -0.0404072 -0.087979"/>
  </sensor>
  <gazebo reference="l_upper_leg">
    <sensor name="l_upper_leg_ems_gyro_eb10" type="imu">
      <always_on>1</always_on>
      <update_rate>100</update_rate>
      <pose>-0.013079 0.040407 -0.035655 -1.57079632679 -1.57079632679 0.0</pose>
    </sensor>
  </gazebo>
  <sensor name="l_upper_leg_ems_gyro_eb10" type="gyroscope">
    <parent link="l_upper_leg"/>
    <origin rpy="-1.57079632679 -1.57079632679 0.0" xyz="-0.013079 0.040407 -0.035655"/>
  </sensor>
  <gazebo reference="l_upper_leg">
    <sensor name="l_upper_leg_mtb_acc_10b1" type="imu">
      <always_on>1</always_on>
      <update_rate>100</update_rate>
      <pose>0.04200163 0.031565 0.049132 -1.57079551857 -1.57068021034 -0.733039094713</pose>
      <plugin name="iCub_yarp_gazebo_plugin_ACC" filename="libgazebo_yarp_inertial.so"/>
    </sensor>
  </gazebo>
  <sensor name="l_upper_leg_mtb_acc_10b1" type="accelerometer">
    <parent link="l_upper_leg"/>
    <origin rpy="-1.57079551857 -1.57068021034 -0.733039094713" xyz="0.04200163 0.031565 0.049132"/>
  </sensor>
  <gazebo reference="l_upper_leg">
    <sensor name="l_upper_leg_mtb_acc_10b2" type="imu">
      <always_on>1</always_on>
      <update_rate>100</update_rate>
      <pose>0.05352109 0.0077657 0.039252 -1.57079638638 -1.57068021039 -1.3089969474</pose>
      <plugin name="iCub_yarp_gazebo_plugin_ACC" filename="libgazebo_yarp_inertial.so"/>
    </sensor>
  </gazebo>
  <sensor name="l_upper_leg_mtb_acc_10b2" type="accelerometer">
    <parent link="l_upper_leg"/>
    <origin rpy="-1.57079638638 -1.57068021039 -1.3089969474" xyz="0.05352109 0.0077657 0.039252"/>
  </sensor>
  <gazebo reference="l_upper_leg">
    <sensor name="l_upper_leg_mtb_acc_10b3" type="imu">
      <always_on>1</always_on>
      <update_rate>100</update_rate>
      <pose>0.053785 0.0150706 0.004182 3.14159265359 -1.57079632679 0.0</pose>
      <plugin name="iCub_yarp_gazebo_plugin_ACC" filename="libgazebo_yarp_inertial.so"/>
    </sensor>
  </gazebo>
  <sensor name="l_upper_leg_mtb_acc_10b3" type="accelerometer">
    <parent link="l_upper_leg"/>
    <origin rpy="3.14159265359 -1.57079632679 0.0" xyz="0.053785 0.0150706 0.004182"/>
  </sensor>
  <gazebo reference="l_upper_leg">
    <sensor name="l_upper_leg_mtb_acc_10b4" type="imu">
      <always_on>1</always_on>
      <update_rate>100</update_rate>
      <pose>0.053785 -0.0144294 0.004182 3.14159265359 -1.57079632679 0.0</pose>
      <plugin name="iCub_yarp_gazebo_plugin_ACC" filename="libgazebo_yarp_inertial.so"/>
    </sensor>
  </gazebo>
  <sensor name="l_upper_leg_mtb_acc_10b4" type="accelerometer">
    <parent link="l_upper_leg"/>
    <origin rpy="3.14159265359 -1.57079632679 0.0" xyz="0.053785 -0.0144294 0.004182"/>
  </sensor>
  <gazebo reference="l_upper_leg">
    <sensor name="l_upper_leg_mtb_acc_10b5" type="imu">
      <always_on>1</always_on>
      <update_rate>100</update_rate>
      <pose>0.03412949 -0.0414999 -0.004858 1.95476889104 -1.57079632679 0.0</pose>
      <plugin name="iCub_yarp_gazebo_plugin_ACC" filename="libgazebo_yarp_inertial.so"/>
    </sensor>
  </gazebo>
  <sensor name="l_upper_leg_mtb_acc_10b5" type="accelerometer">
    <parent link="l_upper_leg"/>
    <origin rpy="1.95476889104 -1.57079632679 0.0" xyz="0.03412949 -0.0414999 -0.004858"/>
  </sensor>
  <gazebo reference="l_upper_leg">
    <sensor name="l_upper_leg_mtb_acc_10b6" type="imu">
      <always_on>1</always_on>
      <update_rate>100</update_rate>
      <pose>-0.043785 0.0178111 -0.026411 -1.57079632679 1.57077431394 1.57079632679</pose>
      <plugin name="iCub_yarp_gazebo_plugin_ACC" filename="libgazebo_yarp_inertial.so"/>
    </sensor>
  </gazebo>
  <sensor name="l_upper_leg_mtb_acc_10b6" type="accelerometer">
    <parent link="l_upper_leg"/>
    <origin rpy="-1.57079632679 1.57077431394 1.57079632679" xyz="-0.043785 0.0178111 -0.026411"/>
  </sensor>
  <gazebo reference="l_upper_leg">
    <sensor name="l_upper_leg_mtb_acc_10b7" type="imu">
      <always_on>1</always_on>
      <update_rate>100</update_rate>
      <pose>-0.043785 -0.0141918 -0.026411 1.5707963268 1.57064733889 -1.57079632679</pose>
      <plugin name="iCub_yarp_gazebo_plugin_ACC" filename="libgazebo_yarp_inertial.so"/>
    </sensor>
  </gazebo>
  <sensor name="l_upper_leg_mtb_acc_10b7" type="accelerometer">
    <parent link="l_upper_leg"/>
    <origin rpy="1.5707963268 1.57064733889 -1.57079632679" xyz="-0.043785 -0.0141918 -0.026411"/>
  </sensor>
  <gazebo reference="l_lower_leg">
    <sensor name="l_lower_leg_ems_acc_eb7" type="imu">
      <always_on>1</always_on>
      <update_rate>100</update_rate>
      <pose>0.04351373 0.0113146 -0.092765 -3.14159265359 -1.35262978345 -8.47684971046e-16</pose>
      <plugin name="iCub_yarp_gazebo_plugin_ACC" filename="libgazebo_yarp_inertial.so"/>
    </sensor>
  </gazebo>
  <sensor name="l_lower_leg_ems_acc_eb7" type="accelerometer">
    <parent link="l_lower_leg"/>
    <origin rpy="-3.14159265359 -1.35262978345 -8.47684971046e-16" xyz="0.04351373 0.0113146 -0.092765"/>
  </sensor>
  <gazebo reference="l_lower_leg">
    <sensor name="l_lower_leg_ems_gyro_eb7" type="imu">
      <always_on>1</always_on>
      <update_rate>100</update_rate>
      <pose>0.044503292 0.0118185 -0.088301 -3.14159265359 -1.35262978345 -8.47684971046e-16</pose>
    </sensor>
  </gazebo>
  <sensor name="l_lower_leg_ems_gyro_eb7" type="gyroscope">
    <parent link="l_lower_leg"/>
    <origin rpy="-3.14159265359 -1.35262978345 -8.47684971046e-16" xyz="0.044503292 0.0118185 -0.088301"/>
  </sensor>
  <gazebo reference="l_lower_leg">
    <sensor name="l_lower_leg_mtb_acc_10b8" type="imu">
      <always_on>1</always_on>
      <update_rate>100</update_rate>
      <pose>0.05313347 0.0171841 -0.004318 -2.89724648752 -1.57079632679 0.0</pose>
      <plugin name="iCub_yarp_gazebo_plugin_ACC" filename="libgazebo_yarp_inertial.so"/>
    </sensor>
  </gazebo>
  <sensor name="l_lower_leg_mtb_acc_10b8" type="accelerometer">
    <parent link="l_lower_leg"/>
    <origin rpy="-2.89724648752 -1.57079632679 0.0" xyz="0.05313347 0.0171841 -0.004318"/>
  </sensor>
  <gazebo reference="l_lower_leg">
    <sensor name="l_lower_leg_mtb_acc_10b9" type="imu">
      <always_on>1</always_on>
      <update_rate>100</update_rate>
      <pose>0.0544518 -0.0137991 -0.004318 -1.57079636645 -1.57068021044 -1.91986192735</pose>
      <plugin name="iCub_yarp_gazebo_plugin_ACC" filename="libgazebo_yarp_inertial.so"/>
    </sensor>
  </gazebo>
  <sensor name="l_lower_leg_mtb_acc_10b9" type="accelerometer">
    <parent link="l_lower_leg"/>
    <origin rpy="-1.57079636645 -1.57068021044 -1.91986192735" xyz="0.0544518 -0.0137991 -0.004318"/>
  </sensor>
  <gazebo reference="l_lower_leg">
    <sensor name="l_lower_leg_mtb_acc_10b10" type="imu">
      <always_on>1</always_on>
      <update_rate>100</update_rate>
      <pose>0.0259151 0.042744 -0.043468 -1.57079369547 -1.57068021035 -0.261801810497</pose>
      <plugin name="iCub_yarp_gazebo_plugin_ACC" filename="libgazebo_yarp_inertial.so"/>
    </sensor>
  </gazebo>
  <sensor name="l_lower_leg_mtb_acc_10b10" type="accelerometer">
    <parent link="l_lower_leg"/>
    <origin rpy="-1.57079369547 -1.57068021035 -0.261801810497" xyz="0.0259151 0.042744 -0.043468"/>
  </sensor>
  <gazebo reference="l_lower_leg">
    <sensor name="l_lower_leg_mtb_acc_10b11" type="imu">
      <always_on>1</always_on>
      <update_rate>100</update_rate>
      <pose>0.0184593 -0.0417187 -0.092958 1.57079531928 -1.57076999786 0.261800187025</pose>
      <plugin name="iCub_yarp_gazebo_plugin_ACC" filename="libgazebo_yarp_inertial.so"/>
    </sensor>
  </gazebo>
  <sensor name="l_lower_leg_mtb_acc_10b11" type="accelerometer">
    <parent link="l_lower_leg"/>
    <origin rpy="1.57079531928 -1.57076999786 0.261800187025" xyz="0.0184593 -0.0417187 -0.092958"/>
  </sensor>
  <gazebo reference="l_foot">
    <sensor name="l_foot_mtb_acc_10b12" type="imu">
      <always_on>1</always_on>
      <update_rate>100</update_rate>
      <pose>0.1055274 0.0008122 -0.001215 0.0 -0.0 1.57079632679</pose>
      <plugin name="iCub_yarp_gazebo_plugin_ACC" filename="libgazebo_yarp_inertial.so"/>
    </sensor>
  </gazebo>
  <sensor name="l_foot_mtb_acc_10b12" type="accelerometer">
    <parent link="l_foot"/>
    <origin rpy="0.0 -0.0 1.57079632679" xyz="0.1055274 0.0008122 -0.001215"/>
  </sensor>
  <gazebo reference="l_foot">
    <sensor name="l_foot_mtb_acc_10b13" type="imu">
      <always_on>1</always_on>
      <update_rate>100</update_rate>
      <pose>0.0805274 0.0118122 -0.001215 0.0 -0.0 1.57079632679</pose>
      <plugin name="iCub_yarp_gazebo_plugin_ACC" filename="libgazebo_yarp_inertial.so"/>
    </sensor>
  </gazebo>
  <sensor name="l_foot_mtb_acc_10b13" type="accelerometer">
    <parent link="l_foot"/>
    <origin rpy="0.0 -0.0 1.57079632679" xyz="0.0805274 0.0118122 -0.001215"/>
  </sensor>
  <gazebo>
    <pose>0.0 0.0 0.63 0.0 0.0 3.14</pose>
  </gazebo>

<!-- ************************  Fictatious Frames  ********************** -->

<link name="root_link_fake">
<inertial>
    <mass value="0.0001"/>
    <origin xyz="0 0 0" rpy="0 0 0" />
    <inertia ixx="0.0003" iyy="0.0003" izz="0.0003" ixy="0" ixz="0" iyz="0"/>
</inertial>
</link>
<joint name="j_root_link_fake" type="fixed">
<origin xyz="0 0 0" rpy="0 0 3.14159265358979"/>
<axis xyz="0 0 0"/>
<parent link="root_link"/>
<child link="root_link_fake"/>
</joint>

<link name="chest_fake">
<inertial>
    <mass value="0.0001"/>
    <origin xyz="0 0 0" rpy="0 0 0" />
    <inertia ixx="0.0003" iyy="0.0003" izz="0.0003" ixy="0" ixz="0" iyz="0"/>
</inertial>
</link>
<joint name="j_chest_fake" type="fixed">
<origin xyz="0 0 0" rpy="-1.57079632679 -1.57079632679 0"/>
<axis xyz="0 0 0"/>
<parent link="chest"/>
<child link="chest_fake"/>
</joint>

<link name="head_fake">
<inertial>
    <mass value="0.0001"/>
    <origin xyz="0 0 0" rpy="0 0 0" />
    <inertia ixx="0.0003" iyy="0.0003" izz="0.0003" ixy="0" ixz="0" iyz="0"/>
</inertial>
</link>
<joint name="j_head_fake" type="fixed">
<origin xyz="0 0 0" rpy="-1.57079632679 -1.57079632679 0"/>
<axis xyz="0 0 0"/>
<parent link="head"/>
<child link="head_fake"/>
</joint>

<link name="r_upper_arm_fake">
<inertial>
    <mass value="0.0001"/>
    <origin xyz="0 0 0" rpy="0 0 0" />
    <inertia ixx="0.0003" iyy="0.0003" izz="0.0003" ixy="0" ixz="0" iyz="0"/>
</inertial>
</link>
<joint name="j_r_upper_arm_fake" type="fixed">
<origin xyz="0 0 0" rpy="-1.57079632679 0 0"/>
<axis xyz="0 0 0"/>
<parent link="r_upper_arm"/>
<child link="r_upper_arm_fake"/>
</joint>

<link name="r_forearm_fake">
<inertial>
    <mass value="0.0001"/>
    <origin xyz="0 0 0" rpy="0 0 0" />
    <inertia ixx="0.0003" iyy="0.0003" izz="0.0003" ixy="0" ixz="0" iyz="0"/>
</inertial>
</link>
<joint name="j_r_forearm_fake" type="fixed">
<origin xyz="0 0 0" rpy="-1.57079632679 -1.57079632679 0"/>
<axis xyz="0 0 0"/>
<parent link="r_forearm"/>
<child link="r_forearm_fake"/>
</joint>

<link name="r_hand_fake">
<inertial>
    <mass value="0.0001"/>
    <origin xyz="0 0 0" rpy="0 0 0" />
    <inertia ixx="0.0003" iyy="0.0003" izz="0.0003" ixy="0" ixz="0" iyz="0"/>
</inertial>
</link>
<joint name="j_r_hand_fake" type="fixed">
<origin xyz="0 0 0" rpy="-1.57079632679 -1.57079632679 0"/>
<axis xyz="0 0 0"/>
<parent link="r_hand"/>
<child link="r_hand_fake"/>
</joint>

<link name="l_upper_arm_fake">
<inertial>
    <mass value="0.0001"/>
    <origin xyz="0 0 0" rpy="0 0 0" />
    <inertia ixx="0.0003" iyy="0.0003" izz="0.0003" ixy="0" ixz="0" iyz="0"/>
</inertial>
</link>
<joint name="j_l_upper_arm_fake" type="fixed">
<origin xyz="0 0 0" rpy="1.57079632679 0 0"/>
<axis xyz="0 0 0"/>
<parent link="l_upper_arm"/>
<child link="l_upper_arm_fake"/>
</joint>

<link name="l_forearm_fake">
<inertial>
    <mass value="0.0001"/>
    <origin xyz="0 0 0" rpy="0 0 0" />
    <inertia ixx="0.0003" iyy="0.0003" izz="0.0003" ixy="0" ixz="0" iyz="0"/>
</inertial>
</link>
<joint name="j_l_forearm_fake" type="fixed">
<origin xyz="0 0 0" rpy="-1.57079632679 -1.57079632679 0"/>
<axis xyz="0 0 0"/>
<parent link="l_forearm"/>
<child link="l_forearm_fake"/>
</joint>

<link name="l_hand_fake">
<inertial>
    <mass value="0.0001"/>
    <origin xyz="0 0 0" rpy="0 0 0" />
    <inertia ixx="0.0003" iyy="0.0003" izz="0.0003" ixy="0" ixz="0" iyz="0"/>
</inertial>
</link>
<joint name="j_l_hand_fake" type="fixed">
<origin xyz="0 0 0" rpy="-1.57079632679 -1.57079632679 0"/>
<axis xyz="0 0 0"/>
<parent link="l_hand"/>
<child link="l_hand_fake"/>
</joint>

<link name="r_upper_leg_fake">
<inertial>
    <mass value="0.0001"/>
    <origin xyz="0 0 0" rpy="0 0 0" />
    <inertia ixx="0.0003" iyy="0.0003" izz="0.0003" ixy="0" ixz="0" iyz="0"/>
</inertial>
</link>
<joint name="j_r_upper_leg_fake" type="fixed">
<origin xyz="0 0 0" rpy="0 0 0"/>
<axis xyz="0 0 0"/>
<parent link="r_upper_leg"/>
<child link="r_upper_leg_fake"/>
</joint>

<link name="r_lower_leg_fake">
<inertial>
    <mass value="0.0001"/>
    <origin xyz="0 0 0" rpy="0 0 0" />
    <inertia ixx="0.0003" iyy="0.0003" izz="0.0003" ixy="0" ixz="0" iyz="0"/>
</inertial>
</link>
<joint name="j_r_lower_leg_fake" type="fixed">
<origin xyz="0 0 0" rpy="0 0 0"/>
<axis xyz="0 0 0"/>
<parent link="r_lower_leg"/>
<child link="r_lower_leg_fake"/>
</joint>


<link name="r_foot_fake">
<inertial>
    <mass value="0.0001"/>
    <origin xyz="0 0 0" rpy="0 0 0" />
    <inertia ixx="0.0003" iyy="0.0003" izz="0.0003" ixy="0" ixz="0" iyz="0"/>
</inertial>
</link>
<joint name="j_r_foot_fake" type="fixed">
<origin xyz="0 0 0" rpy="3.14159 0 0"/>
<axis xyz="0 0 0"/>
<parent link="r_foot"/>
<child link="r_foot_fake"/>
</joint>

<link name="l_upper_leg_fake">
<inertial>
    <mass value="0.0001"/>
    <origin xyz="0 0 0" rpy="0 0 0" />
    <inertia ixx="0.0003" iyy="0.0003" izz="0.0003" ixy="0" ixz="0" iyz="0"/>
</inertial>
</link>
<joint name="j_l_upper_leg_fake" type="fixed">
<origin xyz="0 0 0" rpy="0 0 0"/>
<axis xyz="0 0 0"/>
<parent link="l_upper_leg"/>
<child link="l_upper_leg_fake"/>
</joint>

<link name="l_lower_leg_fake">
<inertial>
    <mass value="0.0001"/>
    <origin xyz="0 0 0" rpy="0 0 0" />
    <inertia ixx="0.0003" iyy="0.0003" izz="0.0003" ixy="0" ixz="0" iyz="0"/>
</inertial>
</link>
<joint name="j_l_lower_leg_fake" type="fixed">
<origin xyz="0 0 0" rpy="0 0 0"/>
<axis xyz="0 0 0"/>
<parent link="l_lower_leg"/>
<child link="l_lower_leg_fake"/>
</joint>

<link name="l_foot_fake">
<inertial>
    <mass value="0.0001"/>
    <origin xyz="0 0 0" rpy="0 0 0" />
    <inertia ixx="0.0003" iyy="0.0003" izz="0.0003" ixy="0" ixz="0" iyz="0"/>
</inertial>
</link>
<joint name="j_l_foot_fake" type="fixed">
<origin xyz="0 0 0" rpy="3.14159 0 0"/>
<axis xyz="0 0 0"/>
<parent link="l_foot"/>
<child link="l_foot_fake"/>
</joint>


  <!-- ********************************************** -->
  <!-- Sensor  1-->
  <sensor name="Pelvis_gyro" type="gyroscope">
  <parent link="root_link_fake"/>
  <origin xyz="-0.055881  0.00020678    0.095148" rpy="0.094617      1.0086     -3.0304"/>
  </sensor>
  <sensor name="Pelvis_accelerometer" type="accelerometer">
  <parent link="root_link_fake"/>
  <origin xyz="-0.055881  0.00020678    0.095148" rpy="0.094617      1.0086     -3.0304"/>
  </sensor>
  <!-- Sensor  2-->
  <sensor name="T8_gyro" type="gyroscope">
  <parent link="chest_fake"/>
  <origin xyz="0.14068  6.2838e-06    0.077433" rpy="-0.077161      1.1064    -0.17687"/>
  </sensor>
  <sensor name="T8_accelerometer" type="accelerometer">
  <parent link="chest_fake"/>
  <origin xyz="0.14068  6.2838e-06    0.077433" rpy="-0.077161      1.1064    -0.17687"/>
  </sensor>
  <!-- Sensor  3-->
  <sensor name="Head_gyro" type="gyroscope">
  <parent link="head"/>
  <origin xyz="-0.06975 -2.1628e-05    0.076683" rpy="2.3836  -0.0032688     -1.7942"/>
  </sensor>
  <sensor name="Head_accelerometer" type="accelerometer">
  <parent link="head_fake"/>
  <origin xyz="-0.06975 -2.1628e-05    0.076683" rpy="2.3836  -0.0032688     -1.7942"/>
  </sensor>
  <!-- Sensor  4-->
  <!-- <sensor name="RightShoulder_gyro" type="gyroscope">
  <parent link="chest_fake"/>
  <origin xyz="-0.020002   -0.049977   -0.059953" rpy="1.0711    -0.16714    -0.95844"/>
  </sensor>
  <sensor name="RightShoulder_accelerometer" type="accelerometer">
  <parent link="chest_fake"/>
  <origin xyz="-0.020002   -0.049977   -0.059953" rpy="1.0711    -0.16714    -0.95844"/>
  </sensor> -->
  <!-- Sensor  5-->
  <sensor name="RightUpperArm_gyro" type="gyroscope">
  <parent link="r_upper_arm_fake"/>
  <origin xyz="-0.020047   -0.099952    0.019983" rpy="-0.10514    0.025819     -1.5224"/>
  </sensor>
  <sensor name="RightUpperArm_accelerometer" type="accelerometer">
  <parent link="r_upper_arm_fake"/>
  <origin xyz="-0.020047   -0.099952    0.019983" rpy="-0.10514    0.025819     -1.5224"/>
  </sensor>
  <!-- Sensor  6-->
  <sensor name="RightForeArm_gyro" type="gyroscope">
  <parent link="r_forearm_fake"/>
  <origin xyz="0.0018328    -0.20024    0.019978" rpy="-0.41688   -0.021387     -1.2563"/>
  </sensor>
  <sensor name="RightForeArm_accelerometer" type="accelerometer">
  <parent link="r_forearm_fake"/>
  <origin xyz="0.0018328    -0.20024    0.019978" rpy="-0.41688   -0.021387     -1.2563"/>
  </sensor>
  <!-- Sensor  7-->
  <sensor name="RightHand_gyro" type="gyroscope">
  <parent link="r_hand_fake"/>
  <origin xyz="-7.5053e-06   -0.054958    0.020014" rpy="-0.37028    0.088894     -1.5331"/>
  </sensor>
  <sensor name="RightHand_accelerometer" type="accelerometer">
  <parent link="r_hand_fake"/>
  <origin xyz="-7.5053e-06   -0.054958    0.020014" rpy="-0.37028    0.088894     -1.5331"/>
  </sensor>
  <!-- Sensor  8-->
  <!-- <sensor name="LeftShoulder_gyro" type="gyroscope">
  <parent link="chest_fake"/>
  <origin xyz="-0.019992    0.049973    -0.05994" rpy="-1.0318    -0.19235      1.1962"/>
  </sensor>
  <sensor name="LeftShoulder_accelerometer" type="accelerometer">
  <parent link="chest_fake"/>
  <origin xyz="-0.019992    0.049973    -0.05994" rpy="-1.0318    -0.19235      1.1962"/>
  </sensor> -->
  <!-- Sensor  9-->
  <sensor name="LeftUpperArm_gyro" type="gyroscope">
  <parent link="l_upper_arm_fake"/>
  <origin xyz="-0.020025    0.099939    0.019989" rpy="0.064789   -0.084026      1.4526"/>
  </sensor>
  <sensor name="LeftUpperArm_accelerometer" type="accelerometer">
  <parent link="l_upper_arm_fake"/>
  <origin xyz="-0.020025    0.099939    0.019989" rpy="0.064789   -0.084026      1.4526"/>
  </sensor>
  <!-- Sensor  10-->
  <sensor name="LeftForeArm_gyro" type="gyroscope">
  <parent link="l_forearm_fake"/>
  <origin xyz="0.0017837     0.20024    0.020006" rpy="0.72472      0.1279      1.0326"/>
  </sensor>
  <sensor name="LeftForeArm_accelerometer" type="accelerometer">
  <parent link="l_forearm_fake"/>
  <origin xyz="0.0017837     0.20024    0.020006" rpy="0.72472      0.1279      1.0326"/>
  </sensor>
  <!-- Sensor  11-->
  <sensor name="LeftHand_gyro" type="gyroscope">
  <parent link="l_hand_fake"/>
  <origin xyz="-3.1578e-05    0.054994    0.019979" rpy="-0.88757   0.0059868      1.7618"/>
  </sensor>
  <sensor name="LeftHand_accelerometer" type="accelerometer">
  <parent link="l_hand_fake"/>
  <origin xyz="-3.1578e-05    0.054994    0.019979" rpy="-0.88757   0.0059868      1.7618"/>
  </sensor>
  <!-- Sensor  12-->
  <sensor name="RightUpperLeg_gyro" type="gyroscope">
  <parent link="r_upper_leg_fake"/>
  <origin xyz="0.013338   -0.044248    -0.25239" rpy="-3.0702      1.3416      1.8771"/>
  </sensor>
  <sensor name="RightUpperLeg_accelerometer" type="accelerometer">
  <parent link="r_upper_leg_fake"/>
  <origin xyz="0.013338   -0.044248    -0.25239" rpy="-3.0702      1.3416      1.8771"/>
  </sensor>
  <!-- Sensor  13-->
  <sensor name="RightLowerLeg_gyro" type="gyroscope">
  <parent link="r_lower_leg_fake"/>
  <origin xyz="0.031063   0.0066293    -0.13321" rpy="-3.0874      1.4644     -2.7215"/>
  </sensor>
  <sensor name="RightLowerLeg_accelerometer" type="accelerometer">
  <parent link="r_lower_leg_fake"/>
  <origin xyz="0.031063   0.0066293    -0.13321" rpy="-3.0874      1.4644     -2.7215"/>
  </sensor>
  <!-- Sensor  14-->
  <sensor name="RightFoot_gyro" type="gyroscope">
  <parent link="r_foot_fake"/>
  <origin xyz="0.089471   0.0011861   -0.012554" rpy="-0.07906     0.83912    -0.38361"/>
  </sensor>
  <sensor name="RightFoot_accelerometer" type="accelerometer">
  <parent link="r_foot_fake"/>
  <origin xyz="0.089471   0.0011861   -0.012554" rpy="-0.07906     0.83912    -0.38361"/>
  </sensor>
  <!-- Sensor  15-->
  <sensor name="LeftUpperLeg_gyro" type="gyroscope">
  <parent link="l_upper_leg_fake"/>
  <origin xyz="0.01207    0.043037    -0.25269" rpy="-3.11      1.3262    -0.93453"/>
  </sensor>
  <sensor name="LeftUpperLeg_accelerometer" type="accelerometer">
  <parent link="l_upper_leg_fake"/>
  <origin xyz="0.01207    0.043037    -0.25269" rpy="-3.11      1.3262    -0.93453"/>
  </sensor>
  <!-- Sensor  16-->
  <sensor name="LeftLowerLeg_gyro" type="gyroscope">
  <parent link="l_lower_leg_fake"/>
  <origin xyz="0.030962  -0.0070902    -0.13319" rpy="-2.05      1.5347     -2.3088"/>
  </sensor>
  <sensor name="LeftLowerLeg_accelerometer" type="accelerometer">
  <parent link="l_lower_leg_fake"/>
  <origin xyz="0.030962  -0.0070902    -0.13319" rpy="-2.05      1.5347     -2.3088"/>
  </sensor>
  <!-- Sensor  17-->
  <sensor name="LeftFoot_gyro" type="gyroscope">
  <parent link="l_foot_fake"/>
  <origin xyz="0.089484  -0.0013526   -0.012584" rpy="-0.35797     0.75899     0.20577"/>
  </sensor>
  <sensor name="LeftFoot_accelerometer" type="accelerometer">
  <parent link="l_foot_fake"/>
  <origin xyz="0.089484  -0.0013526   -0.012584" rpy="-0.35797     0.75899     0.20577"/>
  </sensor>

<!-- ************************  Fictatious Frames  ********************** -->
<!--

<link name="root_link_fake"/>
<joint name="j_root_link_fake" type="fixed">
<origin xyz="0 0 0" rpy="0 0 3.14159265"/>
<axis xyz="0 0 0"/>
<parent link="root_link"/>
<child link="root_link_fake"/>
</joint>
<link name="chest_fake"/>
<joint name="j_chest_fake" type="fixed">
<origin xyz="0 0 0" rpy="-1.57079632679 -1.57079632679 0"/>
<axis xyz="0 0 0"/>
<parent link="chest"/>
<child link="chest_fake"/>
</joint>
<link name="head_fake"/>
<joint name="j_head_fake" type="fixed">
<origin xyz="0 0 0" rpy="-1.57079632679 -1.57079632679 0"/>
<axis xyz="0 0 0"/>
<parent link="head"/>
<child link="head_fake"/>
</joint>

<link name="l_hand_fake">
   <inertial>
     <origin xyz="0.00000 0.00000 0.00000" rpy="0 0 0"/>
     <mass value="0.00001"/>
     <inertia ixx="0.00001" ixy="0.00001" ixz="0.00000" iyy="0.00001" iyz="0.00001" izz="0.00001"/>
   </inertial>
   <visual>
     <origin xyz="0.00001 0.00001 0.00001" rpy="0 0 0"/>
     <geometry>
       <box size="0.2 0.1 0.05" />
     </geometry>
     <material name="blue">
       <color rgba="0 0 1 1"/>
     </material>
   </visual>
 </link>
 <joint name="j_l_hand_fake" type="revolute">
 <origin xyz="0.01 0.01 0.01" rpy="0 -1.57079632679 0"/>
 <parent link="l_hand"/>
 <child link="l_hand_fake"/>
 <dynamics damping="0.1" friction="0.0"/>
 <limit effort="30" velocity="1.0" lower="-3.141592" upper="3.141592" />
 <axis xyz="1 0 0" />
</joint>

<link name="r_hand_fake">
   <inertial>
     <origin xyz="0.00000 0.00000 0.00000" rpy="0 0 0"/>
     <mass value="0.00001"/>
     <inertia ixx="0.00001" ixy="0.00001" ixz="0.00000" iyy="0.00001" iyz="0.00001" izz="0.00001"/>
   </inertial>
   <visual>
     <origin xyz="0.00001 0.00001 0.00001" rpy="0 0 0"/>
     <geometry>
       <box size="0.2 0.1 0.05" />
     </geometry>
     <material name="blue">
       <color rgba="0 0 1 1"/>
     </material>
   </visual>
 </link>
 <joint name="j_r_hand_fake" type="revolute">
 <origin xyz="0.01 0.01 0.01" rpy="3.14159 -1.57079632679 0"/>
 <parent link="r_hand"/>
 <child link="r_hand_fake"/>
 <dynamics damping="0.1" friction="0.0"/>
 <limit effort="30" velocity="1.0" lower="-3.141592" upper="3.141592" />
 <axis xyz="1 0 0" />
</joint>

-->
</robot>
